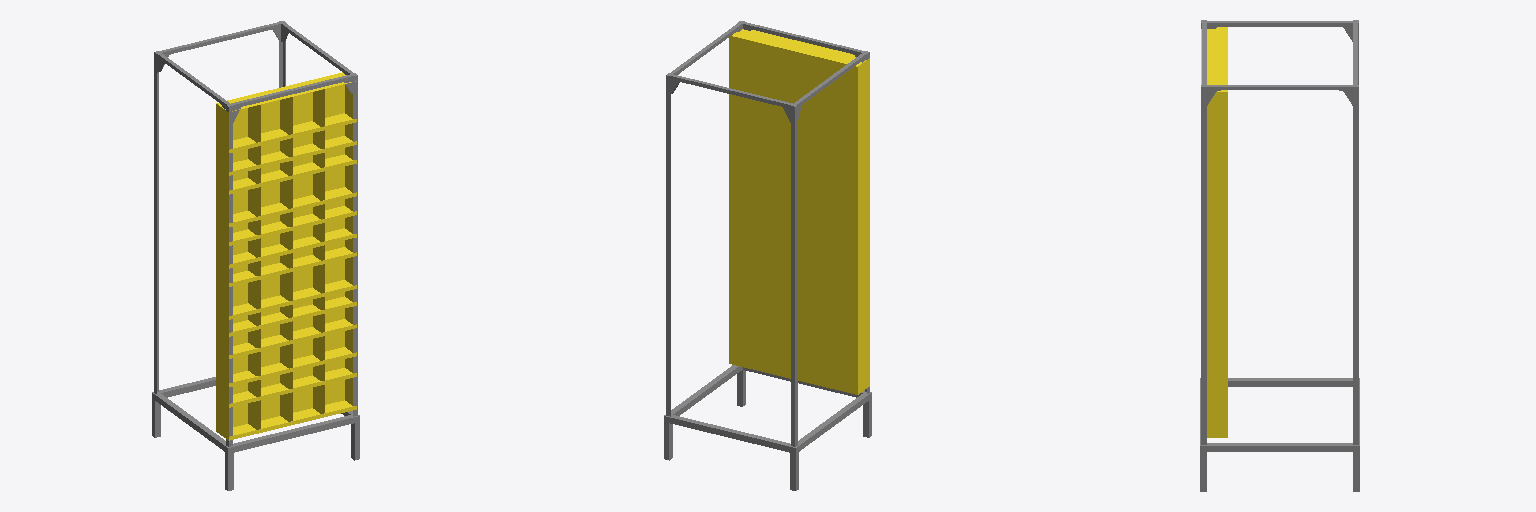
--- What the picture shows (computed from the rendered views, not written in the file) ---
Views: 3 orthographic renders of the robot side by side, from view 1: azimuth 30°, elevation 25°; view 2: azimuth 150°, elevation 25°; view 3: azimuth 270°, elevation 25°.
Model pod1 with 380 links and 379 joints (379 fixed), rooted at pod_base_link, posed all joints at 0.
Links seen in each view (by area): view 1: pod_base_link, pod_bin_3m_back, pod_bin_4m_back, pod_bin_2m_back, pod_bin_1m_left; view 2: pod_base_link, pod_bin_3m_back, pod_bin_4m_back, pod_bin_2m_back, pod_bin_1m_back, pod_bin_1a_back, pod_bin_1f_back, pod_bin_1j_back, pod_bin_4j_back, pod_bin_4a_back, pod_bin_4f_back, pod_bin_3f_back (+28 smaller); view 3: pod_base_link, pod_bin_4m_right, pod_bin_4a_right, pod_bin_4j_right, pod_bin_4f_right, pod_bin_4c_right.
Boxes of the visible links, x1,y1,x2,y2 form: pod_base_link: (152, 21, 359, 490); pod_bin_3m_back: (293, 80, 312, 125); pod_bin_4m_back: (325, 72, 344, 117); pod_bin_2m_back: (260, 90, 279, 132); pod_bin_1m_left: (216, 103, 228, 153); pod_base_link: (664, 21, 871, 490); pod_bin_3m_back: (761, 43, 792, 91); pod_bin_4m_back: (729, 36, 760, 83); pod_bin_2m_back: (793, 51, 824, 99); pod_bin_1m_back: (825, 59, 857, 107); pod_bin_1a_back: (825, 354, 857, 394); pod_bin_1f_back: (825, 234, 857, 273); pod_bin_1j_back: (825, 141, 857, 181); pod_bin_4j_back: (729, 118, 760, 157); pod_bin_4a_back: (729, 331, 760, 370); pod_bin_4f_back: (729, 210, 760, 250); pod_bin_3f_back: (761, 218, 790, 257); pod_base_link: (1200, 20, 1359, 491); pod_bin_4m_right: (1207, 92, 1226, 135); pod_bin_4a_right: (1207, 403, 1226, 437); pod_bin_4j_right: (1207, 179, 1226, 213); pod_bin_4f_right: (1207, 276, 1226, 310); pod_bin_4c_right: (1207, 352, 1226, 381).
Bounding box of the posed robot: 0.9398 × 0.9398 × 2.61 m (x, y, z).
Meshes: 1 distinct files referenced, 1 mesh visuals loaded (1 binary STL).

The robot description file, URDF, robot "pod1":
<?xml version="1.0" ?>
<!-- =================================================================================== -->
<!-- |    This document was autogenerated by xacro from pod1.xacro                     | -->
<!-- |    EDITING THIS FILE BY HAND IS NOT RECOMMENDED                                 | -->
<!-- =================================================================================== -->
<robot name="pod1">
  <material name="yellow_fabric">
    <color rgba="1 .91 .2 1"/>
  </material>
  <material name="aluminum">
    <color rgba=".6 .6 .6 1"/>
  </material>
  <link name="pod_base_link">
    <inertial>
      <mass value="30.0"/>
      <inertia ixx="0.0002835" ixy="0.0" ixz="0.0" iyy="0.0002835" iyz="0.0" izz="0.000324"/>
    </inertial>
    <visual>
      <origin rpy="0 0 0" xyz=".4699 .4699 1.303"/>
      <geometry>
        <mesh filename="pod_frame.stl"/>
      </geometry>
      <material name="aluminum"/>
    </visual>
    <collision>
      <origin rpy="0 0 0" xyz=".4699 .4699 1.303"/>
      <geometry>
        <mesh filename="pod_frame.stl"/>
      </geometry>
    </collision>
  </link>
  <link name="pod_brace"/>
  <joint name="pod_base_link_pod_brace_joint" type="fixed">
    <origin xyz="0 0 .294"/>
    <parent link="pod_base_link"/>
    <child link="pod_brace"/>
  </joint>
  <link name="pod_fabric_base"/>
  <joint name="pod_brace_pod_fabric_base" type="fixed">
    <origin xyz="0.01 0.01 .045"/>
    <parent link="pod_brace"/>
    <child link="pod_fabric_base"/>
  </joint>
  <link name="pod_shelf_a"/>
  <link name="pod_bin_1a"/>
  <link name="pod_bin_1a_bottom">
    <inertial>
      <mass value="0.01"/>
      <inertia ixx="0.0002835" ixy="0.0" ixz="0.0" iyy="0.0002835" iyz="0.0" izz="0.000324"/>
    </inertial>
    <visual>
      <origin xyz="0.1143 0.07619999999999999 -0.0005"/>
      <geometry>
        <box size="0.2286 0.15239999999999998 0.001"/>
      </geometry>
      <material name="yellow_fabric"/>
    </visual>
    <collision>
      <origin xyz="0.1143 0.07619999999999999 -0.0005"/>
      <geometry>
        <box size="0.2286 0.15239999999999998 0.001"/>
      </geometry>
    </collision>
  </link>
  <link name="pod_bin_1a_left">
    <inertial>
      <mass value="0.01"/>
      <inertia ixx="0.0002835" ixy="0.0" ixz="0.0" iyy="0.0002835" iyz="0.0" izz="0.000324"/>
    </inertial>
    <visual>
      <origin xyz="0.07619999999999999 0.111125 -0.0005"/>
      <geometry>
        <box size="0.15239999999999998 0.22225 0.001"/>
      </geometry>
      <material name="yellow_fabric"/>
    </visual>
    <collision>
      <origin xyz="0.07619999999999999 0.111125 -0.0005"/>
      <geometry>
        <box size="0.15239999999999998 0.22225 0.001"/>
      </geometry>
    </collision>
  </link>
  <link name="pod_bin_1a_right">
    <inertial>
      <mass value="0.01"/>
      <inertia ixx="0.0002835" ixy="0.0" ixz="0.0" iyy="0.0002835" iyz="0.0" izz="0.000324"/>
    </inertial>
    <visual>
      <origin xyz="0.07619999999999999 0.111125 -0.0005"/>
      <geometry>
        <box size="0.15239999999999998 0.22225 0.001"/>
      </geometry>
      <material name="yellow_fabric"/>
    </visual>
    <collision>
      <origin xyz="0.07619999999999999 0.111125 -0.0005"/>
      <geometry>
        <box size="0.15239999999999998 0.22225 0.001"/>
      </geometry>
    </collision>
  </link>
  <link name="pod_bin_1a_top">
    <inertial>
      <mass value="0.01"/>
      <inertia ixx="0.0002835" ixy="0.0" ixz="0.0" iyy="0.0002835" iyz="0.0" izz="0.000324"/>
    </inertial>
    <visual>
      <origin xyz="0.1143 0.07619999999999999 -0.0005"/>
      <geometry>
        <box size="0.2286 0.15239999999999998 0.001"/>
      </geometry>
      <material name="yellow_fabric"/>
    </visual>
    <collision>
      <origin xyz="0.1143 0.07619999999999999 -0.0005"/>
      <geometry>
        <box size="0.2286 0.15239999999999998 0.001"/>
      </geometry>
    </collision>
  </link>
  <link name="pod_bin_1a_back">
    <inertial>
      <mass value="0.01"/>
      <inertia ixx="0.0002835" ixy="0.0" ixz="0.0" iyy="0.0002835" iyz="0.0" izz="0.000324"/>
    </inertial>
    <visual>
      <origin xyz="0.1143 0.111125 -0.0005"/>
      <geometry>
        <box size="0.2286 0.22225 0.001"/>
      </geometry>
      <material name="yellow_fabric"/>
    </visual>
    <collision>
      <origin xyz="0.1143 0.111125 -0.0005"/>
      <geometry>
        <box size="0.2286 0.22225 0.001"/>
      </geometry>
    </collision>
  </link>
  <link name="pod_bin_1a_flap">
    <inertial>
      <mass value="0.01"/>
      <inertia ixx="0.0002835" ixy="0.0" ixz="0.0" iyy="0.0002835" iyz="0.0" izz="0.000324"/>
    </inertial>
    <visual>
      <origin xyz="0.1143 0.0127 -0.0005"/>
      <geometry>
        <box size="0.2286 0.0254 0.001"/>
      </geometry>
      <material name="yellow_fabric"/>
    </visual>
    <collision>
      <origin xyz="0.1143 0.0127 -0.0005"/>
      <geometry>
        <box size="0.2286 0.0254 0.001"/>
      </geometry>
    </collision>
  </link>
  <joint name="pod_bin_1a_pod_bin_1a_bottom" type="fixed">
    <parent link="pod_bin_1a"/>
    <child link="pod_bin_1a_bottom"/>
  </joint>
  <joint name="pod_bin_1a_pod_bin_1a_left" type="fixed">
    <origin rpy="1.5707963267948966 0 1.5707963267948966 " xyz="0 0 0"/>
    <parent link="pod_bin_1a"/>
    <child link="pod_bin_1a_left"/>
  </joint>
  <joint name="pod_bin_1a_pod_bin_1a_right" type="fixed">
    <origin rpy="1.5707963267948966 0 1.5707963267948966 " xyz="0.2286 0 0"/>
    <parent link="pod_bin_1a"/>
    <child link="pod_bin_1a_right"/>
  </joint>
  <joint name="pod_bin_1a_pod_bin_1a_top" type="fixed">
    <origin rpy="0 0 0" xyz="0 0 0.22225"/>
    <parent link="pod_bin_1a"/>
    <child link="pod_bin_1a_top"/>
  </joint>
  <joint name="pod_bin_1a_pod_bin_1a_back" type="fixed">
    <origin rpy="1.5707963267948966 0 0" xyz="0 0.15239999999999998 0"/>
    <parent link="pod_bin_1a"/>
    <child link="pod_bin_1a_back"/>
  </joint>
  <joint name="pod_bin_1a_pod_bin_1a_flap" type="fixed">
    <origin rpy="1.5707963267948966 0 0" xyz="0 0 0"/>
    <parent link="pod_bin_1a"/>
    <child link="pod_bin_1a_flap"/>
  </joint>
  <joint name="pod_shelf_a_pod_bin_1a_joint" type="fixed">
    <origin xyz="0.0 0 0"/>
    <parent link="pod_shelf_a"/>
    <child link="pod_bin_1a"/>
  </joint>
  <link name="pod_bin_2a"/>
  <link name="pod_bin_2a_bottom">
    <inertial>
      <mass value="0.01"/>
      <inertia ixx="0.0002835" ixy="0.0" ixz="0.0" iyy="0.0002835" iyz="0.0" izz="0.000324"/>
    </inertial>
    <visual>
      <origin xyz="0.1143 0.07619999999999999 -0.0005"/>
      <geometry>
        <box size="0.2286 0.15239999999999998 0.001"/>
      </geometry>
      <material name="yellow_fabric"/>
    </visual>
    <collision>
      <origin xyz="0.1143 0.07619999999999999 -0.0005"/>
      <geometry>
        <box size="0.2286 0.15239999999999998 0.001"/>
      </geometry>
    </collision>
  </link>
  <link name="pod_bin_2a_left">
    <inertial>
      <mass value="0.01"/>
      <inertia ixx="0.0002835" ixy="0.0" ixz="0.0" iyy="0.0002835" iyz="0.0" izz="0.000324"/>
    </inertial>
    <visual>
      <origin xyz="0.07619999999999999 0.111125 -0.0005"/>
      <geometry>
        <box size="0.15239999999999998 0.22225 0.001"/>
      </geometry>
      <material name="yellow_fabric"/>
    </visual>
    <collision>
      <origin xyz="0.07619999999999999 0.111125 -0.0005"/>
      <geometry>
        <box size="0.15239999999999998 0.22225 0.001"/>
      </geometry>
    </collision>
  </link>
  <link name="pod_bin_2a_right">
    <inertial>
      <mass value="0.01"/>
      <inertia ixx="0.0002835" ixy="0.0" ixz="0.0" iyy="0.0002835" iyz="0.0" izz="0.000324"/>
    </inertial>
    <visual>
      <origin xyz="0.07619999999999999 0.111125 -0.0005"/>
      <geometry>
        <box size="0.15239999999999998 0.22225 0.001"/>
      </geometry>
      <material name="yellow_fabric"/>
    </visual>
    <collision>
      <origin xyz="0.07619999999999999 0.111125 -0.0005"/>
      <geometry>
        <box size="0.15239999999999998 0.22225 0.001"/>
      </geometry>
    </collision>
  </link>
  <link name="pod_bin_2a_top">
    <inertial>
      <mass value="0.01"/>
      <inertia ixx="0.0002835" ixy="0.0" ixz="0.0" iyy="0.0002835" iyz="0.0" izz="0.000324"/>
    </inertial>
    <visual>
      <origin xyz="0.1143 0.07619999999999999 -0.0005"/>
      <geometry>
        <box size="0.2286 0.15239999999999998 0.001"/>
      </geometry>
      <material name="yellow_fabric"/>
    </visual>
    <collision>
      <origin xyz="0.1143 0.07619999999999999 -0.0005"/>
      <geometry>
        <box size="0.2286 0.15239999999999998 0.001"/>
      </geometry>
    </collision>
  </link>
  <link name="pod_bin_2a_back">
    <inertial>
      <mass value="0.01"/>
      <inertia ixx="0.0002835" ixy="0.0" ixz="0.0" iyy="0.0002835" iyz="0.0" izz="0.000324"/>
    </inertial>
    <visual>
      <origin xyz="0.1143 0.111125 -0.0005"/>
      <geometry>
        <box size="0.2286 0.22225 0.001"/>
      </geometry>
      <material name="yellow_fabric"/>
    </visual>
    <collision>
      <origin xyz="0.1143 0.111125 -0.0005"/>
      <geometry>
        <box size="0.2286 0.22225 0.001"/>
      </geometry>
    </collision>
  </link>
  <link name="pod_bin_2a_flap">
    <inertial>
      <mass value="0.01"/>
      <inertia ixx="0.0002835" ixy="0.0" ixz="0.0" iyy="0.0002835" iyz="0.0" izz="0.000324"/>
    </inertial>
    <visual>
      <origin xyz="0.1143 0.0127 -0.0005"/>
      <geometry>
        <box size="0.2286 0.0254 0.001"/>
      </geometry>
      <material name="yellow_fabric"/>
    </visual>
    <collision>
      <origin xyz="0.1143 0.0127 -0.0005"/>
      <geometry>
        <box size="0.2286 0.0254 0.001"/>
      </geometry>
    </collision>
  </link>
  <joint name="pod_bin_2a_pod_bin_2a_bottom" type="fixed">
    <parent link="pod_bin_2a"/>
    <child link="pod_bin_2a_bottom"/>
  </joint>
  <joint name="pod_bin_2a_pod_bin_2a_left" type="fixed">
    <origin rpy="1.5707963267948966 0 1.5707963267948966 " xyz="0 0 0"/>
    <parent link="pod_bin_2a"/>
    <child link="pod_bin_2a_left"/>
  </joint>
  <joint name="pod_bin_2a_pod_bin_2a_right" type="fixed">
    <origin rpy="1.5707963267948966 0 1.5707963267948966 " xyz="0.2286 0 0"/>
    <parent link="pod_bin_2a"/>
    <child link="pod_bin_2a_right"/>
  </joint>
  <joint name="pod_bin_2a_pod_bin_2a_top" type="fixed">
    <origin rpy="0 0 0" xyz="0 0 0.22225"/>
    <parent link="pod_bin_2a"/>
    <child link="pod_bin_2a_top"/>
  </joint>
  <joint name="pod_bin_2a_pod_bin_2a_back" type="fixed">
    <origin rpy="1.5707963267948966 0 0" xyz="0 0.15239999999999998 0"/>
    <parent link="pod_bin_2a"/>
    <child link="pod_bin_2a_back"/>
  </joint>
  <joint name="pod_bin_2a_pod_bin_2a_flap" type="fixed">
    <origin rpy="1.5707963267948966 0 0" xyz="0 0 0"/>
    <parent link="pod_bin_2a"/>
    <child link="pod_bin_2a_flap"/>
  </joint>
  <joint name="pod_shelf_a_pod_bin_2a_joint" type="fixed">
    <origin xyz="0.2286 0 0"/>
    <parent link="pod_shelf_a"/>
    <child link="pod_bin_2a"/>
  </joint>
  <link name="pod_bin_3a"/>
  <link name="pod_bin_3a_bottom">
    <inertial>
      <mass value="0.01"/>
      <inertia ixx="0.0002835" ixy="0.0" ixz="0.0" iyy="0.0002835" iyz="0.0" izz="0.000324"/>
    </inertial>
    <visual>
      <origin xyz="0.1143 0.07619999999999999 -0.0005"/>
      <geometry>
        <box size="0.2286 0.15239999999999998 0.001"/>
      </geometry>
      <material name="yellow_fabric"/>
    </visual>
    <collision>
      <origin xyz="0.1143 0.07619999999999999 -0.0005"/>
      <geometry>
        <box size="0.2286 0.15239999999999998 0.001"/>
      </geometry>
    </collision>
  </link>
  <link name="pod_bin_3a_left">
    <inertial>
      <mass value="0.01"/>
      <inertia ixx="0.0002835" ixy="0.0" ixz="0.0" iyy="0.0002835" iyz="0.0" izz="0.000324"/>
    </inertial>
    <visual>
      <origin xyz="0.07619999999999999 0.111125 -0.0005"/>
      <geometry>
        <box size="0.15239999999999998 0.22225 0.001"/>
      </geometry>
      <material name="yellow_fabric"/>
    </visual>
    <collision>
      <origin xyz="0.07619999999999999 0.111125 -0.0005"/>
      <geometry>
        <box size="0.15239999999999998 0.22225 0.001"/>
      </geometry>
    </collision>
  </link>
  <link name="pod_bin_3a_right">
    <inertial>
      <mass value="0.01"/>
      <inertia ixx="0.0002835" ixy="0.0" ixz="0.0" iyy="0.0002835" iyz="0.0" izz="0.000324"/>
    </inertial>
    <visual>
      <origin xyz="0.07619999999999999 0.111125 -0.0005"/>
      <geometry>
        <box size="0.15239999999999998 0.22225 0.001"/>
      </geometry>
      <material name="yellow_fabric"/>
    </visual>
    <collision>
      <origin xyz="0.07619999999999999 0.111125 -0.0005"/>
      <geometry>
        <box size="0.15239999999999998 0.22225 0.001"/>
      </geometry>
    </collision>
  </link>
  <link name="pod_bin_3a_top">
    <inertial>
      <mass value="0.01"/>
      <inertia ixx="0.0002835" ixy="0.0" ixz="0.0" iyy="0.0002835" iyz="0.0" izz="0.000324"/>
    </inertial>
    <visual>
      <origin xyz="0.1143 0.07619999999999999 -0.0005"/>
      <geometry>
        <box size="0.2286 0.15239999999999998 0.001"/>
      </geometry>
      <material name="yellow_fabric"/>
    </visual>
    <collision>
      <origin xyz="0.1143 0.07619999999999999 -0.0005"/>
      <geometry>
        <box size="0.2286 0.15239999999999998 0.001"/>
      </geometry>
    </collision>
  </link>
  <link name="pod_bin_3a_back">
    <inertial>
      <mass value="0.01"/>
      <inertia ixx="0.0002835" ixy="0.0" ixz="0.0" iyy="0.0002835" iyz="0.0" izz="0.000324"/>
    </inertial>
    <visual>
      <origin xyz="0.1143 0.111125 -0.0005"/>
      <geometry>
        <box size="0.2286 0.22225 0.001"/>
      </geometry>
      <material name="yellow_fabric"/>
    </visual>
    <collision>
      <origin xyz="0.1143 0.111125 -0.0005"/>
      <geometry>
        <box size="0.2286 0.22225 0.001"/>
      </geometry>
    </collision>
  </link>
  <link name="pod_bin_3a_flap">
    <inertial>
      <mass value="0.01"/>
      <inertia ixx="0.0002835" ixy="0.0" ixz="0.0" iyy="0.0002835" iyz="0.0" izz="0.000324"/>
    </inertial>
    <visual>
      <origin xyz="0.1143 0.0127 -0.0005"/>
      <geometry>
        <box size="0.2286 0.0254 0.001"/>
      </geometry>
      <material name="yellow_fabric"/>
    </visual>
    <collision>
      <origin xyz="0.1143 0.0127 -0.0005"/>
      <geometry>
        <box size="0.2286 0.0254 0.001"/>
      </geometry>
    </collision>
  </link>
  <joint name="pod_bin_3a_pod_bin_3a_bottom" type="fixed">
    <parent link="pod_bin_3a"/>
    <child link="pod_bin_3a_bottom"/>
  </joint>
  <joint name="pod_bin_3a_pod_bin_3a_left" type="fixed">
    <origin rpy="1.5707963267948966 0 1.5707963267948966 " xyz="0 0 0"/>
    <parent link="pod_bin_3a"/>
    <child link="pod_bin_3a_left"/>
  </joint>
  <joint name="pod_bin_3a_pod_bin_3a_right" type="fixed">
    <origin rpy="1.5707963267948966 0 1.5707963267948966 " xyz="0.2286 0 0"/>
    <parent link="pod_bin_3a"/>
    <child link="pod_bin_3a_right"/>
  </joint>
  <joint name="pod_bin_3a_pod_bin_3a_top" type="fixed">
    <origin rpy="0 0 0" xyz="0 0 0.22225"/>
    <parent link="pod_bin_3a"/>
    <child link="pod_bin_3a_top"/>
  </joint>
  <joint name="pod_bin_3a_pod_bin_3a_back" type="fixed">
    <origin rpy="1.5707963267948966 0 0" xyz="0 0.15239999999999998 0"/>
    <parent link="pod_bin_3a"/>
    <child link="pod_bin_3a_back"/>
  </joint>
  <joint name="pod_bin_3a_pod_bin_3a_flap" type="fixed">
    <origin rpy="1.5707963267948966 0 0" xyz="0 0 0"/>
    <parent link="pod_bin_3a"/>
    <child link="pod_bin_3a_flap"/>
  </joint>
  <joint name="pod_shelf_a_pod_bin_3a_joint" type="fixed">
    <origin xyz="0.4572 0 0"/>
    <parent link="pod_shelf_a"/>
    <child link="pod_bin_3a"/>
  </joint>
  <link name="pod_bin_4a"/>
  <link name="pod_bin_4a_bottom">
    <inertial>
      <mass value="0.01"/>
      <inertia ixx="0.0002835" ixy="0.0" ixz="0.0" iyy="0.0002835" iyz="0.0" izz="0.000324"/>
    </inertial>
    <visual>
      <origin xyz="0.1143 0.07619999999999999 -0.0005"/>
      <geometry>
        <box size="0.2286 0.15239999999999998 0.001"/>
      </geometry>
      <material name="yellow_fabric"/>
    </visual>
    <collision>
      <origin xyz="0.1143 0.07619999999999999 -0.0005"/>
      <geometry>
        <box size="0.2286 0.15239999999999998 0.001"/>
      </geometry>
    </collision>
  </link>
  <link name="pod_bin_4a_left">
    <inertial>
      <mass value="0.01"/>
      <inertia ixx="0.0002835" ixy="0.0" ixz="0.0" iyy="0.0002835" iyz="0.0" izz="0.000324"/>
    </inertial>
    <visual>
      <origin xyz="0.07619999999999999 0.111125 -0.0005"/>
      <geometry>
        <box size="0.15239999999999998 0.22225 0.001"/>
      </geometry>
      <material name="yellow_fabric"/>
    </visual>
    <collision>
      <origin xyz="0.07619999999999999 0.111125 -0.0005"/>
      <geometry>
        <box size="0.15239999999999998 0.22225 0.001"/>
      </geometry>
    </collision>
  </link>
  <link name="pod_bin_4a_right">
    <inertial>
      <mass value="0.01"/>
      <inertia ixx="0.0002835" ixy="0.0" ixz="0.0" iyy="0.0002835" iyz="0.0" izz="0.000324"/>
    </inertial>
    <visual>
      <origin xyz="0.07619999999999999 0.111125 -0.0005"/>
      <geometry>
        <box size="0.15239999999999998 0.22225 0.001"/>
      </geometry>
      <material name="yellow_fabric"/>
    </visual>
    <collision>
      <origin xyz="0.07619999999999999 0.111125 -0.0005"/>
      <geometry>
        <box size="0.15239999999999998 0.22225 0.001"/>
      </geometry>
    </collision>
  </link>
  <link name="pod_bin_4a_top">
    <inertial>
      <mass value="0.01"/>
      <inertia ixx="0.0002835" ixy="0.0" ixz="0.0" iyy="0.0002835" iyz="0.0" izz="0.000324"/>
    </inertial>
    <visual>
      <origin xyz="0.1143 0.07619999999999999 -0.0005"/>
      <geometry>
        <box size="0.2286 0.15239999999999998 0.001"/>
      </geometry>
      <material name="yellow_fabric"/>
    </visual>
    <collision>
      <origin xyz="0.1143 0.07619999999999999 -0.0005"/>
      <geometry>
        <box size="0.2286 0.15239999999999998 0.001"/>
      </geometry>
    </collision>
  </link>
  <link name="pod_bin_4a_back">
    <inertial>
      <mass value="0.01"/>
      <inertia ixx="0.0002835" ixy="0.0" ixz="0.0" iyy="0.0002835" iyz="0.0" izz="0.000324"/>
    </inertial>
    <visual>
      <origin xyz="0.1143 0.111125 -0.0005"/>
      <geometry>
        <box size="0.2286 0.22225 0.001"/>
      </geometry>
      <material name="yellow_fabric"/>
    </visual>
    <collision>
      <origin xyz="0.1143 0.111125 -0.0005"/>
      <geometry>
        <box size="0.2286 0.22225 0.001"/>
      </geometry>
    </collision>
  </link>
  <link name="pod_bin_4a_flap">
    <inertial>
      <mass value="0.01"/>
      <inertia ixx="0.0002835" ixy="0.0" ixz="0.0" iyy="0.0002835" iyz="0.0" izz="0.000324"/>
    </inertial>
    <visual>
      <origin xyz="0.1143 0.0127 -0.0005"/>
      <geometry>
        <box size="0.2286 0.0254 0.001"/>
      </geometry>
      <material name="yellow_fabric"/>
    </visual>
    <collision>
      <origin xyz="0.1143 0.0127 -0.0005"/>
      <geometry>
        <box size="0.2286 0.0254 0.001"/>
      </geometry>
    </collision>
  </link>
  <joint name="pod_bin_4a_pod_bin_4a_bottom" type="fixed">
    <parent link="pod_bin_4a"/>
    <child link="pod_bin_4a_bottom"/>
  </joint>
  <joint name="pod_bin_4a_pod_bin_4a_left" type="fixed">
    <origin rpy="1.5707963267948966 0 1.5707963267948966 " xyz="0 0 0"/>
    <parent link="pod_bin_4a"/>
    <child link="pod_bin_4a_left"/>
  </joint>
  <joint name="pod_bin_4a_pod_bin_4a_right" type="fixed">
    <origin rpy="1.5707963267948966 0 1.5707963267948966 " xyz="0.2286 0 0"/>
    <parent link="pod_bin_4a"/>
    <child link="pod_bin_4a_right"/>
  </joint>
  <joint name="pod_bin_4a_pod_bin_4a_top" type="fixed">
    <origin rpy="0 0 0" xyz="0 0 0.22225"/>
    <parent link="pod_bin_4a"/>
    <child link="pod_bin_4a_top"/>
  </joint>
  <joint name="pod_bin_4a_pod_bin_4a_back" type="fixed">
    <origin rpy="1.5707963267948966 0 0" xyz="0 0.15239999999999998 0"/>
    <parent link="pod_bin_4a"/>
    <child link="pod_bin_4a_back"/>
  </joint>
  <joint name="pod_bin_4a_pod_bin_4a_flap" type="fixed">
    <origin rpy="1.5707963267948966 0 0" xyz="0 0 0"/>
    <parent link="pod_bin_4a"/>
    <child link="pod_bin_4a_flap"/>
  </joint>
  <joint name="pod_shelf_a_pod_bin_4a_joint" type="fixed">
    <origin xyz="0.6858 0 0"/>
    <parent link="pod_shelf_a"/>
    <child link="pod_bin_4a"/>
  </joint>
  <joint name="pod_fabric_base_pod_shelf_a_joint" type="fixed">
    <origin xyz="0 0 0"/>
    <parent link="pod_fabric_base"/>
    <child link="pod_shelf_a"/>
  </joint>
  <link name="pod_shelf_b"/>
  <link name="pod_bin_1b"/>
  <link name="pod_bin_1b_bottom">
    <inertial>
      <mass value="0.01"/>
      <inertia ixx="0.0002835" ixy="0.0" ixz="0.0" iyy="0.0002835" iyz="0.0" izz="0.000324"/>
    </inertial>
    <visual>
      <origin xyz="0.1143 0.07619999999999999 -0.0005"/>
      <geometry>
        <box size="0.2286 0.15239999999999998 0.001"/>
      </geometry>
      <material name="yellow_fabric"/>
    </visual>
    <collision>
      <origin xyz="0.1143 0.07619999999999999 -0.0005"/>
      <geometry>
        <box size="0.2286 0.15239999999999998 0.001"/>
      </geometry>
    </collision>
  </link>
  <link name="pod_bin_1b_left">
    <inertial>
      <mass value="0.01"/>
      <inertia ixx="0.0002835" ixy="0.0" ixz="0.0" iyy="0.0002835" iyz="0.0" izz="0.000324"/>
    </inertial>
    <visual>
      <origin xyz="0.07619999999999999 0.06985 -0.0005"/>
      <geometry>
        <box size="0.15239999999999998 0.1397 0.001"/>
      </geometry>
      <material name="yellow_fabric"/>
    </visual>
    <collision>
      <origin xyz="0.07619999999999999 0.06985 -0.0005"/>
      <geometry>
        <box size="0.15239999999999998 0.1397 0.001"/>
      </geometry>
    </collision>
  </link>
  <link name="pod_bin_1b_right">
    <inertial>
      <mass value="0.01"/>
      <inertia ixx="0.0002835" ixy="0.0" ixz="0.0" iyy="0.0002835" iyz="0.0" izz="0.000324"/>
    </inertial>
    <visual>
      <origin xyz="0.07619999999999999 0.06985 -0.0005"/>
      <geometry>
        <box size="0.15239999999999998 0.1397 0.001"/>
      </geometry>
      <material name="yellow_fabric"/>
    </visual>
    <collision>
      <origin xyz="0.07619999999999999 0.06985 -0.0005"/>
      <geometry>
        <box size="0.15239999999999998 0.1397 0.001"/>
      </geometry>
    </collision>
  </link>
  <link name="pod_bin_1b_top">
    <inertial>
      <mass value="0.01"/>
      <inertia ixx="0.0002835" ixy="0.0" ixz="0.0" iyy="0.0002835" iyz="0.0" izz="0.000324"/>
    </inertial>
    <visual>
      <origin xyz="0.1143 0.07619999999999999 -0.0005"/>
      <geometry>
        <box size="0.2286 0.15239999999999998 0.001"/>
      </geometry>
      <material name="yellow_fabric"/>
    </visual>
    <collision>
      <origin xyz="0.1143 0.07619999999999999 -0.0005"/>
      <geometry>
        <box size="0.2286 0.15239999999999998 0.001"/>
      </geometry>
    </collision>
  </link>
  <link name="pod_bin_1b_back">
    <inertial>
      <mass value="0.01"/>
      <inertia ixx="0.0002835" ixy="0.0" ixz="0.0" iyy="0.0002835" iyz="0.0" izz="0.000324"/>
    </inertial>
    <visual>
      <origin xyz="0.1143 0.06985 -0.0005"/>
      <geometry>
        <box size="0.2286 0.1397 0.001"/>
      </geometry>
      <material name="yellow_fabric"/>
    </visual>
    <collision>
      <origin xyz="0.1143 0.06985 -0.0005"/>
      <geometry>
        <box size="0.2286 0.1397 0.001"/>
      </geometry>
    </collision>
  </link>
  <link name="pod_bin_1b_flap">
    <inertial>
      <mass value="0.01"/>
      <inertia ixx="0.0002835" ixy="0.0" ixz="0.0" iyy="0.0002835" iyz="0.0" izz="0.000324"/>
    </inertial>
    <visual>
      <origin xyz="0.1143 0.0127 -0.0005"/>
      <geometry>
        <box size="0.2286 0.0254 0.001"/>
      </geometry>
      <material name="yellow_fabric"/>
    </visual>
    <collision>
      <origin xyz="0.1143 0.0127 -0.0005"/>
      <geometry>
        <box size="0.2286 0.0254 0.001"/>
      </geometry>
    </collision>
  </link>
  <joint name="pod_bin_1b_pod_bin_1b_bottom" type="fixed">
    <parent link="pod_bin_1b"/>
    <child link="pod_bin_1b_bottom"/>
  </joint>
  <joint name="pod_bin_1b_pod_bin_1b_left" type="fixed">
    <origin rpy="1.5707963267948966 0 1.5707963267948966 " xyz="0 0 0"/>
    <parent link="pod_bin_1b"/>
    <child link="pod_bin_1b_left"/>
  </joint>
  <joint name="pod_bin_1b_pod_bin_1b_right" type="fixed">
    <origin rpy="1.5707963267948966 0 1.5707963267948966 " xyz="0.2286 0 0"/>
    <parent link="pod_bin_1b"/>
    <child link="pod_bin_1b_right"/>
  </joint>
  <joint name="pod_bin_1b_pod_bin_1b_top" type="fixed">
    <origin rpy="0 0 0" xyz="0 0 0.1397"/>
    <parent link="pod_bin_1b"/>
    <child link="pod_bin_1b_top"/>
  </joint>
  <joint name="pod_bin_1b_pod_bin_1b_back" type="fixed">
    <origin rpy="1.5707963267948966 0 0" xyz="0 0.15239999999999998 0"/>
    <parent link="pod_bin_1b"/>
    <child link="pod_bin_1b_back"/>
  </joint>
  <joint name="pod_bin_1b_pod_bin_1b_flap" type="fixed">
    <origin rpy="1.5707963267948966 0 0" xyz="0 0 0"/>
    <parent link="pod_bin_1b"/>
    <child link="pod_bin_1b_flap"/>
  </joint>
  <joint name="pod_shelf_b_pod_bin_1b_joint" type="fixed">
    <origin xyz="0.0 0 0"/>
    <parent link="pod_shelf_b"/>
    <child link="pod_bin_1b"/>
  </joint>
  <link name="pod_bin_2b"/>
  <link name="pod_bin_2b_bottom">
    <inertial>
      <mass value="0.01"/>
      <inertia ixx="0.0002835" ixy="0.0" ixz="0.0" iyy="0.0002835" iyz="0.0" izz="0.000324"/>
    </inertial>
    <visual>
      <origin xyz="0.1143 0.07619999999999999 -0.0005"/>
      <geometry>
        <box size="0.2286 0.15239999999999998 0.001"/>
      </geometry>
      <material name="yellow_fabric"/>
    </visual>
    <collision>
      <origin xyz="0.1143 0.07619999999999999 -0.0005"/>
      <geometry>
        <box size="0.2286 0.15239999999999998 0.001"/>
      </geometry>
    </collision>
  </link>
  <link name="pod_bin_2b_left">
    <inertial>
      <mass value="0.01"/>
      <inertia ixx="0.0002835" ixy="0.0" ixz="0.0" iyy="0.0002835" iyz="0.0" izz="0.000324"/>
    </inertial>
    <visual>
      <origin xyz="0.07619999999999999 0.06985 -0.0005"/>
      <geometry>
        <box size="0.15239999999999998 0.1397 0.001"/>
      </geometry>
      <material name="yellow_fabric"/>
    </visual>
    <collision>
      <origin xyz="0.07619999999999999 0.06985 -0.0005"/>
      <geometry>
        <box size="0.15239999999999998 0.1397 0.001"/>
      </geometry>
    </collision>
  </link>
  <link name="pod_bin_2b_right">
    <inertial>
      <mass value="0.01"/>
      <inertia ixx="0.0002835" ixy="0.0" ixz="0.0" iyy="0.0002835" iyz="0.0" izz="0.000324"/>
    </inertial>
    <visual>
      <origin xyz="0.07619999999999999 0.06985 -0.0005"/>
      <geometry>
        <box size="0.15239999999999998 0.1397 0.001"/>
      </geometry>
      <material name="yellow_fabric"/>
    </visual>
    <collision>
      <origin xyz="0.07619999999999999 0.06985 -0.0005"/>
      <geometry>
        <box size="0.15239999999999998 0.1397 0.001"/>
      </geometry>
    </collision>
  </link>
  <link name="pod_bin_2b_top">
    <inertial>
      <mass value="0.01"/>
      <inertia ixx="0.0002835" ixy="0.0" ixz="0.0" iyy="0.0002835" iyz="0.0" izz="0.000324"/>
    </inertial>
    <visual>
      <origin xyz="0.1143 0.07619999999999999 -0.0005"/>
      <geometry>
        <box size="0.2286 0.15239999999999998 0.001"/>
      </geometry>
      <material name="yellow_fabric"/>
    </visual>
    <collision>
      <origin xyz="0.1143 0.07619999999999999 -0.0005"/>
      <geometry>
        <box size="0.2286 0.15239999999999998 0.001"/>
      </geometry>
    </collision>
  </link>
  <link name="pod_bin_2b_back">
    <inertial>
      <mass value="0.01"/>
      <inertia ixx="0.0002835" ixy="0.0" ixz="0.0" iyy="0.0002835" iyz="0.0" izz="0.000324"/>
    </inertial>
    <visual>
      <origin xyz="0.1143 0.06985 -0.0005"/>
      <geometry>
        <box size="0.2286 0.1397 0.001"/>
      </geometry>
      <material name="yellow_fabric"/>
    </visual>
    <collision>
      <origin xyz="0.1143 0.06985 -0.0005"/>
      <geometry>
        <box size="0.2286 0.1397 0.001"/>
      </geometry>
    </collision>
  </link>
  <link name="pod_bin_2b_flap">
    <inertial>
      <mass value="0.01"/>
      <inertia ixx="0.0002835" ixy="0.0" ixz="0.0" iyy="0.0002835" iyz="0.0" izz="0.000324"/>
    </inertial>
    <visual>
      <origin xyz="0.1143 0.0127 -0.0005"/>
      <geometry>
        <box size="0.2286 0.0254 0.001"/>
      </geometry>
      <material name="yellow_fabric"/>
    </visual>
    <collision>
      <origin xyz="0.1143 0.0127 -0.0005"/>
      <geometry>
        <box size="0.2286 0.0254 0.001"/>
      </geometry>
    </collision>
  </link>
  <joint name="pod_bin_2b_pod_bin_2b_bottom" type="fixed">
    <parent link="pod_bin_2b"/>
    <child link="pod_bin_2b_bottom"/>
  </joint>
  <joint name="pod_bin_2b_pod_bin_2b_left" type="fixed">
    <origin rpy="1.5707963267948966 0 1.5707963267948966 " xyz="0 0 0"/>
    <parent link="pod_bin_2b"/>
    <child link="pod_bin_2b_left"/>
  </joint>
  <joint name="pod_bin_2b_pod_bin_2b_right" type="fixed">
    <origin rpy="1.5707963267948966 0 1.5707963267948966 " xyz="0.2286 0 0"/>
    <parent link="pod_bin_2b"/>
    <child link="pod_bin_2b_right"/>
  </joint>
  <joint name="pod_bin_2b_pod_bin_2b_top" type="fixed">
    <origin rpy="0 0 0" xyz="0 0 0.1397"/>
    <parent link="pod_bin_2b"/>
    <child link="pod_bin_2b_top"/>
  </joint>
  <joint name="pod_bin_2b_pod_bin_2b_back" type="fixed">
    <origin rpy="1.5707963267948966 0 0" xyz="0 0.15239999999999998 0"/>
    <parent link="pod_bin_2b"/>
    <child link="pod_bin_2b_back"/>
  </joint>
  <joint name="pod_bin_2b_pod_bin_2b_flap" type="fixed">
    <origin rpy="1.5707963267948966 0 0" xyz="0 0 0"/>
    <parent link="pod_bin_2b"/>
    <child link="pod_bin_2b_flap"/>
  </joint>
  <joint name="pod_shelf_b_pod_bin_2b_joint" type="fixed">
    <origin xyz="0.2286 0 0"/>
    <parent link="pod_shelf_b"/>
    <child link="pod_bin_2b"/>
  </joint>
  <link name="pod_bin_3b"/>
  <link name="pod_bin_3b_bottom">
    <inertial>
      <mass value="0.01"/>
      <inertia ixx="0.0002835" ixy="0.0" ixz="0.0" iyy="0.0002835" iyz="0.0" izz="0.000324"/>
    </inertial>
    <visual>
      <origin xyz="0.1143 0.07619999999999999 -0.0005"/>
      <geometry>
        <box size="0.2286 0.15239999999999998 0.001"/>
      </geometry>
      <material name="yellow_fabric"/>
    </visual>
    <collision>
      <origin xyz="0.1143 0.07619999999999999 -0.0005"/>
      <geometry>
        <box size="0.2286 0.15239999999999998 0.001"/>
      </geometry>
    </collision>
  </link>
  <link name="pod_bin_3b_left">
    <inertial>
      <mass value="0.01"/>
      <inertia ixx="0.0002835" ixy="0.0" ixz="0.0" iyy="0.0002835" iyz="0.0" izz="0.000324"/>
    </inertial>
    <visual>
      <origin xyz="0.07619999999999999 0.06985 -0.0005"/>
      <geometry>
        <box size="0.15239999999999998 0.1397 0.001"/>
      </geometry>
      <material name="yellow_fabric"/>
    </visual>
    <collision>
      <origin xyz="0.07619999999999999 0.06985 -0.0005"/>
      <geometry>
        <box size="0.15239999999999998 0.1397 0.001"/>
      </geometry>
    </collision>
  </link>
  <link name="pod_bin_3b_right">
    <inertial>
      <mass value="0.01"/>
      <inertia ixx="0.0002835" ixy="0.0" ixz="0.0" iyy="0.0002835" iyz="0.0" izz="0.000324"/>
    </inertial>
    <visual>
      <origin xyz="0.07619999999999999 0.06985 -0.0005"/>
      <geometry>
        <box size="0.15239999999999998 0.1397 0.001"/>
      </geometry>
      <material name="yellow_fabric"/>
    </visual>
    <collision>
      <origin xyz="0.07619999999999999 0.06985 -0.0005"/>
      <geometry>
        <box size="0.15239999999999998 0.1397 0.001"/>
      </geometry>
    </collision>
  </link>
  <link name="pod_bin_3b_top">
    <inertial>
      <mass value="0.01"/>
      <inertia ixx="0.0002835" ixy="0.0" ixz="0.0" iyy="0.0002835" iyz="0.0" izz="0.000324"/>
    </inertial>
    <visual>
      <origin xyz="0.1143 0.07619999999999999 -0.0005"/>
      <geometry>
        <box size="0.2286 0.15239999999999998 0.001"/>
      </geometry>
      <material name="yellow_fabric"/>
    </visual>
    <collision>
      <origin xyz="0.1143 0.07619999999999999 -0.0005"/>
      <geometry>
        <box size="0.2286 0.15239999999999998 0.001"/>
      </geometry>
    </collision>
  </link>
  <link name="pod_bin_3b_back">
    <inertial>
      <mass value="0.01"/>
      <inertia ixx="0.0002835" ixy="0.0" ixz="0.0" iyy="0.0002835" iyz="0.0" izz="0.000324"/>
    </inertial>
    <visual>
      <origin xyz="0.1143 0.06985 -0.0005"/>
      <geometry>
        <box size="0.2286 0.1397 0.001"/>
      </geometry>
      <material name="yellow_fabric"/>
    </visual>
    <collision>
      <origin xyz="0.1143 0.06985 -0.0005"/>
      <geometry>
        <box size="0.2286 0.1397 0.001"/>
      </geometry>
    </collision>
  </link>
  <link name="pod_bin_3b_flap">
    <inertial>
      <mass value="0.01"/>
      <inertia ixx="0.0002835" ixy="0.0" ixz="0.0" iyy="0.0002835" iyz="0.0" izz="0.000324"/>
    </inertial>
    <visual>
      <origin xyz="0.1143 0.0127 -0.0005"/>
      <geometry>
        <box size="0.2286 0.0254 0.001"/>
      </geometry>
      <material name="yellow_fabric"/>
    </visual>
    <collision>
      <origin xyz="0.1143 0.0127 -0.0005"/>
      <geometry>
        <box size="0.2286 0.0254 0.001"/>
      </geometry>
    </collision>
  </link>
  <joint name="pod_bin_3b_pod_bin_3b_bottom" type="fixed">
    <parent link="pod_bin_3b"/>
    <child link="pod_bin_3b_bottom"/>
  </joint>
  <joint name="pod_bin_3b_pod_bin_3b_left" type="fixed">
    <origin rpy="1.5707963267948966 0 1.5707963267948966 " xyz="0 0 0"/>
    <parent link="pod_bin_3b"/>
    <child link="pod_bin_3b_left"/>
  </joint>
  <joint name="pod_bin_3b_pod_bin_3b_right" type="fixed">
    <origin rpy="1.5707963267948966 0 1.5707963267948966 " xyz="0.2286 0 0"/>
    <parent link="pod_bin_3b"/>
    <child link="pod_bin_3b_right"/>
  </joint>
  <joint name="pod_bin_3b_pod_bin_3b_top" type="fixed">
    <origin rpy="0 0 0" xyz="0 0 0.1397"/>
    <parent link="pod_bin_3b"/>
    <child link="pod_bin_3b_top"/>
  </joint>
  <joint name="pod_bin_3b_pod_bin_3b_back" type="fixed">
    <origin rpy="1.5707963267948966 0 0" xyz="0 0.15239999999999998 0"/>
    <parent link="pod_bin_3b"/>
    <child link="pod_bin_3b_back"/>
  </joint>
  <joint name="pod_bin_3b_pod_bin_3b_flap" type="fixed">
    <origin rpy="1.5707963267948966 0 0" xyz="0 0 0"/>
    <parent link="pod_bin_3b"/>
    <child link="pod_bin_3b_flap"/>
  </joint>
  <joint name="pod_shelf_b_pod_bin_3b_joint" type="fixed">
    <origin xyz="0.4572 0 0"/>
    <parent link="pod_shelf_b"/>
    <child link="pod_bin_3b"/>
  </joint>
  <link name="pod_bin_4b"/>
  <link name="pod_bin_4b_bottom">
    <inertial>
      <mass value="0.01"/>
      <inertia ixx="0.0002835" ixy="0.0" ixz="0.0" iyy="0.0002835" iyz="0.0" izz="0.000324"/>
    </inertial>
    <visual>
      <origin xyz="0.1143 0.07619999999999999 -0.0005"/>
      <geometry>
        <box size="0.2286 0.15239999999999998 0.001"/>
      </geometry>
      <material name="yellow_fabric"/>
    </visual>
    <collision>
      <origin xyz="0.1143 0.07619999999999999 -0.0005"/>
      <geometry>
        <box size="0.2286 0.15239999999999998 0.001"/>
      </geometry>
    </collision>
  </link>
  <link name="pod_bin_4b_left">
    <inertial>
      <mass value="0.01"/>
      <inertia ixx="0.0002835" ixy="0.0" ixz="0.0" iyy="0.0002835" iyz="0.0" izz="0.000324"/>
    </inertial>
    <visual>
      <origin xyz="0.07619999999999999 0.06985 -0.0005"/>
      <geometry>
        <box size="0.15239999999999998 0.1397 0.001"/>
      </geometry>
      <material name="yellow_fabric"/>
    </visual>
    <collision>
      <origin xyz="0.07619999999999999 0.06985 -0.0005"/>
      <geometry>
        <box size="0.15239999999999998 0.1397 0.001"/>
      </geometry>
    </collision>
  </link>
  <link name="pod_bin_4b_right">
    <inertial>
      <mass value="0.01"/>
      <inertia ixx="0.0002835" ixy="0.0" ixz="0.0" iyy="0.0002835" iyz="0.0" izz="0.000324"/>
    </inertial>
    <visual>
      <origin xyz="0.07619999999999999 0.06985 -0.0005"/>
      <geometry>
        <box size="0.15239999999999998 0.1397 0.001"/>
      </geometry>
      <material name="yellow_fabric"/>
    </visual>
    <collision>
      <origin xyz="0.07619999999999999 0.06985 -0.0005"/>
      <geometry>
        <box size="0.15239999999999998 0.1397 0.001"/>
      </geometry>
    </collision>
  </link>
  <link name="pod_bin_4b_top">
    <inertial>
      <mass value="0.01"/>
      <inertia ixx="0.0002835" ixy="0.0" ixz="0.0" iyy="0.0002835" iyz="0.0" izz="0.000324"/>
    </inertial>
    <visual>
      <origin xyz="0.1143 0.07619999999999999 -0.0005"/>
      <geometry>
        <box size="0.2286 0.15239999999999998 0.001"/>
      </geometry>
      <material name="yellow_fabric"/>
    </visual>
    <collision>
      <origin xyz="0.1143 0.07619999999999999 -0.0005"/>
      <geometry>
        <box size="0.2286 0.15239999999999998 0.001"/>
      </geometry>
    </collision>
  </link>
  <link name="pod_bin_4b_back">
    <inertial>
      <mass value="0.01"/>
      <inertia ixx="0.0002835" ixy="0.0" ixz="0.0" iyy="0.0002835" iyz="0.0" izz="0.000324"/>
    </inertial>
    <visual>
      <origin xyz="0.1143 0.06985 -0.0005"/>
      <geometry>
        <box size="0.2286 0.1397 0.001"/>
      </geometry>
      <material name="yellow_fabric"/>
    </visual>
    <collision>
      <origin xyz="0.1143 0.06985 -0.0005"/>
      <geometry>
        <box size="0.2286 0.1397 0.001"/>
      </geometry>
    </collision>
  </link>
  <link name="pod_bin_4b_flap">
    <inertial>
      <mass value="0.01"/>
      <inertia ixx="0.0002835" ixy="0.0" ixz="0.0" iyy="0.0002835" iyz="0.0" izz="0.000324"/>
    </inertial>
    <visual>
      <origin xyz="0.1143 0.0127 -0.0005"/>
      <geometry>
        <box size="0.2286 0.0254 0.001"/>
      </geometry>
      <material name="yellow_fabric"/>
    </visual>
    <collision>
      <origin xyz="0.1143 0.0127 -0.0005"/>
      <geometry>
        <box size="0.2286 0.0254 0.001"/>
      </geometry>
    </collision>
  </link>
  <joint name="pod_bin_4b_pod_bin_4b_bottom" type="fixed">
    <parent link="pod_bin_4b"/>
    <child link="pod_bin_4b_bottom"/>
  </joint>
  <joint name="pod_bin_4b_pod_bin_4b_left" type="fixed">
    <origin rpy="1.5707963267948966 0 1.5707963267948966 " xyz="0 0 0"/>
    <parent link="pod_bin_4b"/>
    <child link="pod_bin_4b_left"/>
  </joint>
  <joint name="pod_bin_4b_pod_bin_4b_right" type="fixed">
    <origin rpy="1.5707963267948966 0 1.5707963267948966 " xyz="0.2286 0 0"/>
    <parent link="pod_bin_4b"/>
    <child link="pod_bin_4b_right"/>
  </joint>
  <joint name="pod_bin_4b_pod_bin_4b_top" type="fixed">
    <origin rpy="0 0 0" xyz="0 0 0.1397"/>
    <parent link="pod_bin_4b"/>
    <child link="pod_bin_4b_top"/>
  </joint>
  <joint name="pod_bin_4b_pod_bin_4b_back" type="fixed">
    <origin rpy="1.5707963267948966 0 0" xyz="0 0.15239999999999998 0"/>
    <parent link="pod_bin_4b"/>
    <child link="pod_bin_4b_back"/>
  </joint>
  <joint name="pod_bin_4b_pod_bin_4b_flap" type="fixed">
    <origin rpy="1.5707963267948966 0 0" xyz="0 0 0"/>
    <parent link="pod_bin_4b"/>
    <child link="pod_bin_4b_flap"/>
  </joint>
  <joint name="pod_shelf_b_pod_bin_4b_joint" type="fixed">
    <origin xyz="0.6858 0 0"/>
    <parent link="pod_shelf_b"/>
    <child link="pod_bin_4b"/>
  </joint>
  <joint name="pod_fabric_base_pod_shelf_b_joint" type="fixed">
    <origin xyz="0 0 0.22225"/>
    <parent link="pod_fabric_base"/>
    <child link="pod_shelf_b"/>
  </joint>
  <link name="pod_shelf_c"/>
  <link name="pod_bin_1c"/>
  <link name="pod_bin_1c_bottom">
    <inertial>
      <mass value="0.01"/>
      <inertia ixx="0.0002835" ixy="0.0" ixz="0.0" iyy="0.0002835" iyz="0.0" izz="0.000324"/>
    </inertial>
    <visual>
      <origin xyz="0.1143 0.07619999999999999 -0.0005"/>
      <geometry>
        <box size="0.2286 0.15239999999999998 0.001"/>
      </geometry>
      <material name="yellow_fabric"/>
    </visual>
    <collision>
      <origin xyz="0.1143 0.07619999999999999 -0.0005"/>
      <geometry>
        <box size="0.2286 0.15239999999999998 0.001"/>
      </geometry>
    </collision>
  </link>
  <link name="pod_bin_1c_left">
    <inertial>
      <mass value="0.01"/>
      <inertia ixx="0.0002835" ixy="0.0" ixz="0.0" iyy="0.0002835" iyz="0.0" izz="0.000324"/>
    </inertial>
    <visual>
      <origin xyz="0.07619999999999999 0.09525 -0.0005"/>
      <geometry>
        <box size="0.15239999999999998 0.1905 0.001"/>
      </geometry>
      <material name="yellow_fabric"/>
    </visual>
    <collision>
      <origin xyz="0.07619999999999999 0.09525 -0.0005"/>
      <geometry>
        <box size="0.15239999999999998 0.1905 0.001"/>
      </geometry>
    </collision>
  </link>
  <link name="pod_bin_1c_right">
    <inertial>
      <mass value="0.01"/>
      <inertia ixx="0.0002835" ixy="0.0" ixz="0.0" iyy="0.0002835" iyz="0.0" izz="0.000324"/>
    </inertial>
    <visual>
      <origin xyz="0.07619999999999999 0.09525 -0.0005"/>
      <geometry>
        <box size="0.15239999999999998 0.1905 0.001"/>
      </geometry>
      <material name="yellow_fabric"/>
    </visual>
    <collision>
      <origin xyz="0.07619999999999999 0.09525 -0.0005"/>
      <geometry>
        <box size="0.15239999999999998 0.1905 0.001"/>
      </geometry>
    </collision>
  </link>
  <link name="pod_bin_1c_top">
    <inertial>
      <mass value="0.01"/>
      <inertia ixx="0.0002835" ixy="0.0" ixz="0.0" iyy="0.0002835" iyz="0.0" izz="0.000324"/>
    </inertial>
    <visual>
      <origin xyz="0.1143 0.07619999999999999 -0.0005"/>
      <geometry>
        <box size="0.2286 0.15239999999999998 0.001"/>
      </geometry>
      <material name="yellow_fabric"/>
    </visual>
    <collision>
      <origin xyz="0.1143 0.07619999999999999 -0.0005"/>
      <geometry>
        <box size="0.2286 0.15239999999999998 0.001"/>
      </geometry>
    </collision>
  </link>
  <link name="pod_bin_1c_back">
    <inertial>
      <mass value="0.01"/>
      <inertia ixx="0.0002835" ixy="0.0" ixz="0.0" iyy="0.0002835" iyz="0.0" izz="0.000324"/>
    </inertial>
    <visual>
      <origin xyz="0.1143 0.09525 -0.0005"/>
      <geometry>
        <box size="0.2286 0.1905 0.001"/>
      </geometry>
      <material name="yellow_fabric"/>
    </visual>
    <collision>
      <origin xyz="0.1143 0.09525 -0.0005"/>
      <geometry>
        <box size="0.2286 0.1905 0.001"/>
      </geometry>
    </collision>
  </link>
  <link name="pod_bin_1c_flap">
    <inertial>
      <mass value="0.01"/>
      <inertia ixx="0.0002835" ixy="0.0" ixz="0.0" iyy="0.0002835" iyz="0.0" izz="0.000324"/>
    </inertial>
    <visual>
      <origin xyz="0.1143 0.0127 -0.0005"/>
      <geometry>
        <box size="0.2286 0.0254 0.001"/>
      </geometry>
      <material name="yellow_fabric"/>
    </visual>
    <collision>
      <origin xyz="0.1143 0.0127 -0.0005"/>
      <geometry>
        <box size="0.2286 0.0254 0.001"/>
      </geometry>
    </collision>
  </link>
  <joint name="pod_bin_1c_pod_bin_1c_bottom" type="fixed">
    <parent link="pod_bin_1c"/>
    <child link="pod_bin_1c_bottom"/>
  </joint>
  <joint name="pod_bin_1c_pod_bin_1c_left" type="fixed">
    <origin rpy="1.5707963267948966 0 1.5707963267948966 " xyz="0 0 0"/>
    <parent link="pod_bin_1c"/>
    <child link="pod_bin_1c_left"/>
  </joint>
  <joint name="pod_bin_1c_pod_bin_1c_right" type="fixed">
    <origin rpy="1.5707963267948966 0 1.5707963267948966 " xyz="0.2286 0 0"/>
    <parent link="pod_bin_1c"/>
    <child link="pod_bin_1c_right"/>
  </joint>
  <joint name="pod_bin_1c_pod_bin_1c_top" type="fixed">
    <origin rpy="0 0 0" xyz="0 0 0.1905"/>
    <parent link="pod_bin_1c"/>
    <child link="pod_bin_1c_top"/>
  </joint>
  <joint name="pod_bin_1c_pod_bin_1c_back" type="fixed">
    <origin rpy="1.5707963267948966 0 0" xyz="0 0.15239999999999998 0"/>
    <parent link="pod_bin_1c"/>
    <child link="pod_bin_1c_back"/>
  </joint>
  <joint name="pod_bin_1c_pod_bin_1c_flap" type="fixed">
    <origin rpy="1.5707963267948966 0 0" xyz="0 0 0"/>
    <parent link="pod_bin_1c"/>
    <child link="pod_bin_1c_flap"/>
  </joint>
  <joint name="pod_shelf_c_pod_bin_1c_joint" type="fixed">
    <origin xyz="0.0 0 0"/>
    <parent link="pod_shelf_c"/>
    <child link="pod_bin_1c"/>
  </joint>
  <link name="pod_bin_2c"/>
  <link name="pod_bin_2c_bottom">
    <inertial>
      <mass value="0.01"/>
      <inertia ixx="0.0002835" ixy="0.0" ixz="0.0" iyy="0.0002835" iyz="0.0" izz="0.000324"/>
    </inertial>
    <visual>
      <origin xyz="0.1143 0.07619999999999999 -0.0005"/>
      <geometry>
        <box size="0.2286 0.15239999999999998 0.001"/>
      </geometry>
      <material name="yellow_fabric"/>
    </visual>
    <collision>
      <origin xyz="0.1143 0.07619999999999999 -0.0005"/>
      <geometry>
        <box size="0.2286 0.15239999999999998 0.001"/>
      </geometry>
    </collision>
  </link>
  <link name="pod_bin_2c_left">
    <inertial>
      <mass value="0.01"/>
      <inertia ixx="0.0002835" ixy="0.0" ixz="0.0" iyy="0.0002835" iyz="0.0" izz="0.000324"/>
    </inertial>
    <visual>
      <origin xyz="0.07619999999999999 0.09525 -0.0005"/>
      <geometry>
        <box size="0.15239999999999998 0.1905 0.001"/>
      </geometry>
      <material name="yellow_fabric"/>
    </visual>
    <collision>
      <origin xyz="0.07619999999999999 0.09525 -0.0005"/>
      <geometry>
        <box size="0.15239999999999998 0.1905 0.001"/>
      </geometry>
    </collision>
  </link>
  <link name="pod_bin_2c_right">
    <inertial>
      <mass value="0.01"/>
      <inertia ixx="0.0002835" ixy="0.0" ixz="0.0" iyy="0.0002835" iyz="0.0" izz="0.000324"/>
    </inertial>
    <visual>
      <origin xyz="0.07619999999999999 0.09525 -0.0005"/>
      <geometry>
        <box size="0.15239999999999998 0.1905 0.001"/>
      </geometry>
      <material name="yellow_fabric"/>
    </visual>
    <collision>
      <origin xyz="0.07619999999999999 0.09525 -0.0005"/>
      <geometry>
        <box size="0.15239999999999998 0.1905 0.001"/>
      </geometry>
    </collision>
  </link>
  <link name="pod_bin_2c_top">
    <inertial>
      <mass value="0.01"/>
      <inertia ixx="0.0002835" ixy="0.0" ixz="0.0" iyy="0.0002835" iyz="0.0" izz="0.000324"/>
    </inertial>
    <visual>
      <origin xyz="0.1143 0.07619999999999999 -0.0005"/>
      <geometry>
        <box size="0.2286 0.15239999999999998 0.001"/>
      </geometry>
      <material name="yellow_fabric"/>
    </visual>
    <collision>
      <origin xyz="0.1143 0.07619999999999999 -0.0005"/>
      <geometry>
        <box size="0.2286 0.15239999999999998 0.001"/>
      </geometry>
    </collision>
  </link>
  <link name="pod_bin_2c_back">
    <inertial>
      <mass value="0.01"/>
      <inertia ixx="0.0002835" ixy="0.0" ixz="0.0" iyy="0.0002835" iyz="0.0" izz="0.000324"/>
    </inertial>
    <visual>
      <origin xyz="0.1143 0.09525 -0.0005"/>
      <geometry>
        <box size="0.2286 0.1905 0.001"/>
      </geometry>
      <material name="yellow_fabric"/>
    </visual>
    <collision>
      <origin xyz="0.1143 0.09525 -0.0005"/>
      <geometry>
        <box size="0.2286 0.1905 0.001"/>
      </geometry>
    </collision>
  </link>
  <link name="pod_bin_2c_flap">
    <inertial>
      <mass value="0.01"/>
      <inertia ixx="0.0002835" ixy="0.0" ixz="0.0" iyy="0.0002835" iyz="0.0" izz="0.000324"/>
    </inertial>
    <visual>
      <origin xyz="0.1143 0.0127 -0.0005"/>
      <geometry>
        <box size="0.2286 0.0254 0.001"/>
      </geometry>
      <material name="yellow_fabric"/>
    </visual>
    <collision>
      <origin xyz="0.1143 0.0127 -0.0005"/>
      <geometry>
        <box size="0.2286 0.0254 0.001"/>
      </geometry>
    </collision>
  </link>
  <joint name="pod_bin_2c_pod_bin_2c_bottom" type="fixed">
    <parent link="pod_bin_2c"/>
    <child link="pod_bin_2c_bottom"/>
  </joint>
  <joint name="pod_bin_2c_pod_bin_2c_left" type="fixed">
    <origin rpy="1.5707963267948966 0 1.5707963267948966 " xyz="0 0 0"/>
    <parent link="pod_bin_2c"/>
    <child link="pod_bin_2c_left"/>
  </joint>
  <joint name="pod_bin_2c_pod_bin_2c_right" type="fixed">
    <origin rpy="1.5707963267948966 0 1.5707963267948966 " xyz="0.2286 0 0"/>
    <parent link="pod_bin_2c"/>
    <child link="pod_bin_2c_right"/>
  </joint>
  <joint name="pod_bin_2c_pod_bin_2c_top" type="fixed">
    <origin rpy="0 0 0" xyz="0 0 0.1905"/>
    <parent link="pod_bin_2c"/>
    <child link="pod_bin_2c_top"/>
  </joint>
  <joint name="pod_bin_2c_pod_bin_2c_back" type="fixed">
    <origin rpy="1.5707963267948966 0 0" xyz="0 0.15239999999999998 0"/>
    <parent link="pod_bin_2c"/>
    <child link="pod_bin_2c_back"/>
  </joint>
  <joint name="pod_bin_2c_pod_bin_2c_flap" type="fixed">
    <origin rpy="1.5707963267948966 0 0" xyz="0 0 0"/>
    <parent link="pod_bin_2c"/>
    <child link="pod_bin_2c_flap"/>
  </joint>
  <joint name="pod_shelf_c_pod_bin_2c_joint" type="fixed">
    <origin xyz="0.2286 0 0"/>
    <parent link="pod_shelf_c"/>
    <child link="pod_bin_2c"/>
  </joint>
  <link name="pod_bin_3c"/>
  <link name="pod_bin_3c_bottom">
    <inertial>
      <mass value="0.01"/>
      <inertia ixx="0.0002835" ixy="0.0" ixz="0.0" iyy="0.0002835" iyz="0.0" izz="0.000324"/>
    </inertial>
    <visual>
      <origin xyz="0.1143 0.07619999999999999 -0.0005"/>
      <geometry>
        <box size="0.2286 0.15239999999999998 0.001"/>
      </geometry>
      <material name="yellow_fabric"/>
    </visual>
    <collision>
      <origin xyz="0.1143 0.07619999999999999 -0.0005"/>
      <geometry>
        <box size="0.2286 0.15239999999999998 0.001"/>
      </geometry>
    </collision>
  </link>
  <link name="pod_bin_3c_left">
    <inertial>
      <mass value="0.01"/>
      <inertia ixx="0.0002835" ixy="0.0" ixz="0.0" iyy="0.0002835" iyz="0.0" izz="0.000324"/>
    </inertial>
    <visual>
      <origin xyz="0.07619999999999999 0.09525 -0.0005"/>
      <geometry>
        <box size="0.15239999999999998 0.1905 0.001"/>
      </geometry>
      <material name="yellow_fabric"/>
    </visual>
    <collision>
      <origin xyz="0.07619999999999999 0.09525 -0.0005"/>
      <geometry>
        <box size="0.15239999999999998 0.1905 0.001"/>
      </geometry>
    </collision>
  </link>
  <link name="pod_bin_3c_right">
    <inertial>
      <mass value="0.01"/>
      <inertia ixx="0.0002835" ixy="0.0" ixz="0.0" iyy="0.0002835" iyz="0.0" izz="0.000324"/>
    </inertial>
    <visual>
      <origin xyz="0.07619999999999999 0.09525 -0.0005"/>
      <geometry>
        <box size="0.15239999999999998 0.1905 0.001"/>
      </geometry>
      <material name="yellow_fabric"/>
    </visual>
    <collision>
      <origin xyz="0.07619999999999999 0.09525 -0.0005"/>
      <geometry>
        <box size="0.15239999999999998 0.1905 0.001"/>
      </geometry>
    </collision>
  </link>
  <link name="pod_bin_3c_top">
    <inertial>
      <mass value="0.01"/>
      <inertia ixx="0.0002835" ixy="0.0" ixz="0.0" iyy="0.0002835" iyz="0.0" izz="0.000324"/>
    </inertial>
    <visual>
      <origin xyz="0.1143 0.07619999999999999 -0.0005"/>
      <geometry>
        <box size="0.2286 0.15239999999999998 0.001"/>
      </geometry>
      <material name="yellow_fabric"/>
    </visual>
    <collision>
      <origin xyz="0.1143 0.07619999999999999 -0.0005"/>
      <geometry>
        <box size="0.2286 0.15239999999999998 0.001"/>
      </geometry>
    </collision>
  </link>
  <link name="pod_bin_3c_back">
    <inertial>
      <mass value="0.01"/>
      <inertia ixx="0.0002835" ixy="0.0" ixz="0.0" iyy="0.0002835" iyz="0.0" izz="0.000324"/>
    </inertial>
    <visual>
      <origin xyz="0.1143 0.09525 -0.0005"/>
      <geometry>
        <box size="0.2286 0.1905 0.001"/>
      </geometry>
      <material name="yellow_fabric"/>
    </visual>
    <collision>
      <origin xyz="0.1143 0.09525 -0.0005"/>
      <geometry>
        <box size="0.2286 0.1905 0.001"/>
      </geometry>
    </collision>
  </link>
  <link name="pod_bin_3c_flap">
    <inertial>
      <mass value="0.01"/>
      <inertia ixx="0.0002835" ixy="0.0" ixz="0.0" iyy="0.0002835" iyz="0.0" izz="0.000324"/>
    </inertial>
    <visual>
      <origin xyz="0.1143 0.0127 -0.0005"/>
      <geometry>
        <box size="0.2286 0.0254 0.001"/>
      </geometry>
      <material name="yellow_fabric"/>
    </visual>
    <collision>
      <origin xyz="0.1143 0.0127 -0.0005"/>
      <geometry>
        <box size="0.2286 0.0254 0.001"/>
      </geometry>
    </collision>
  </link>
  <joint name="pod_bin_3c_pod_bin_3c_bottom" type="fixed">
    <parent link="pod_bin_3c"/>
    <child link="pod_bin_3c_bottom"/>
  </joint>
  <joint name="pod_bin_3c_pod_bin_3c_left" type="fixed">
    <origin rpy="1.5707963267948966 0 1.5707963267948966 " xyz="0 0 0"/>
    <parent link="pod_bin_3c"/>
    <child link="pod_bin_3c_left"/>
  </joint>
  <joint name="pod_bin_3c_pod_bin_3c_right" type="fixed">
    <origin rpy="1.5707963267948966 0 1.5707963267948966 " xyz="0.2286 0 0"/>
    <parent link="pod_bin_3c"/>
    <child link="pod_bin_3c_right"/>
  </joint>
  <joint name="pod_bin_3c_pod_bin_3c_top" type="fixed">
    <origin rpy="0 0 0" xyz="0 0 0.1905"/>
    <parent link="pod_bin_3c"/>
    <child link="pod_bin_3c_top"/>
  </joint>
  <joint name="pod_bin_3c_pod_bin_3c_back" type="fixed">
    <origin rpy="1.5707963267948966 0 0" xyz="0 0.15239999999999998 0"/>
    <parent link="pod_bin_3c"/>
    <child link="pod_bin_3c_back"/>
  </joint>
  <joint name="pod_bin_3c_pod_bin_3c_flap" type="fixed">
    <origin rpy="1.5707963267948966 0 0" xyz="0 0 0"/>
    <parent link="pod_bin_3c"/>
    <child link="pod_bin_3c_flap"/>
  </joint>
  <joint name="pod_shelf_c_pod_bin_3c_joint" type="fixed">
    <origin xyz="0.4572 0 0"/>
    <parent link="pod_shelf_c"/>
    <child link="pod_bin_3c"/>
  </joint>
  <link name="pod_bin_4c"/>
  <link name="pod_bin_4c_bottom">
    <inertial>
      <mass value="0.01"/>
      <inertia ixx="0.0002835" ixy="0.0" ixz="0.0" iyy="0.0002835" iyz="0.0" izz="0.000324"/>
    </inertial>
    <visual>
      <origin xyz="0.1143 0.07619999999999999 -0.0005"/>
      <geometry>
        <box size="0.2286 0.15239999999999998 0.001"/>
      </geometry>
      <material name="yellow_fabric"/>
    </visual>
    <collision>
      <origin xyz="0.1143 0.07619999999999999 -0.0005"/>
      <geometry>
        <box size="0.2286 0.15239999999999998 0.001"/>
      </geometry>
    </collision>
  </link>
  <link name="pod_bin_4c_left">
    <inertial>
      <mass value="0.01"/>
      <inertia ixx="0.0002835" ixy="0.0" ixz="0.0" iyy="0.0002835" iyz="0.0" izz="0.000324"/>
    </inertial>
    <visual>
      <origin xyz="0.07619999999999999 0.09525 -0.0005"/>
      <geometry>
        <box size="0.15239999999999998 0.1905 0.001"/>
      </geometry>
      <material name="yellow_fabric"/>
    </visual>
    <collision>
      <origin xyz="0.07619999999999999 0.09525 -0.0005"/>
      <geometry>
        <box size="0.15239999999999998 0.1905 0.001"/>
      </geometry>
    </collision>
  </link>
  <link name="pod_bin_4c_right">
    <inertial>
      <mass value="0.01"/>
      <inertia ixx="0.0002835" ixy="0.0" ixz="0.0" iyy="0.0002835" iyz="0.0" izz="0.000324"/>
    </inertial>
    <visual>
      <origin xyz="0.07619999999999999 0.09525 -0.0005"/>
      <geometry>
        <box size="0.15239999999999998 0.1905 0.001"/>
      </geometry>
      <material name="yellow_fabric"/>
    </visual>
    <collision>
      <origin xyz="0.07619999999999999 0.09525 -0.0005"/>
      <geometry>
        <box size="0.15239999999999998 0.1905 0.001"/>
      </geometry>
    </collision>
  </link>
  <link name="pod_bin_4c_top">
    <inertial>
      <mass value="0.01"/>
      <inertia ixx="0.0002835" ixy="0.0" ixz="0.0" iyy="0.0002835" iyz="0.0" izz="0.000324"/>
    </inertial>
    <visual>
      <origin xyz="0.1143 0.07619999999999999 -0.0005"/>
      <geometry>
        <box size="0.2286 0.15239999999999998 0.001"/>
      </geometry>
      <material name="yellow_fabric"/>
    </visual>
    <collision>
      <origin xyz="0.1143 0.07619999999999999 -0.0005"/>
      <geometry>
        <box size="0.2286 0.15239999999999998 0.001"/>
      </geometry>
    </collision>
  </link>
  <link name="pod_bin_4c_back">
    <inertial>
      <mass value="0.01"/>
      <inertia ixx="0.0002835" ixy="0.0" ixz="0.0" iyy="0.0002835" iyz="0.0" izz="0.000324"/>
    </inertial>
    <visual>
      <origin xyz="0.1143 0.09525 -0.0005"/>
      <geometry>
        <box size="0.2286 0.1905 0.001"/>
      </geometry>
      <material name="yellow_fabric"/>
    </visual>
    <collision>
      <origin xyz="0.1143 0.09525 -0.0005"/>
      <geometry>
        <box size="0.2286 0.1905 0.001"/>
      </geometry>
    </collision>
  </link>
  <link name="pod_bin_4c_flap">
    <inertial>
      <mass value="0.01"/>
      <inertia ixx="0.0002835" ixy="0.0" ixz="0.0" iyy="0.0002835" iyz="0.0" izz="0.000324"/>
    </inertial>
    <visual>
      <origin xyz="0.1143 0.0127 -0.0005"/>
      <geometry>
        <box size="0.2286 0.0254 0.001"/>
      </geometry>
      <material name="yellow_fabric"/>
    </visual>
    <collision>
      <origin xyz="0.1143 0.0127 -0.0005"/>
      <geometry>
        <box size="0.2286 0.0254 0.001"/>
      </geometry>
    </collision>
  </link>
  <joint name="pod_bin_4c_pod_bin_4c_bottom" type="fixed">
    <parent link="pod_bin_4c"/>
    <child link="pod_bin_4c_bottom"/>
  </joint>
  <joint name="pod_bin_4c_pod_bin_4c_left" type="fixed">
    <origin rpy="1.5707963267948966 0 1.5707963267948966 " xyz="0 0 0"/>
    <parent link="pod_bin_4c"/>
    <child link="pod_bin_4c_left"/>
  </joint>
  <joint name="pod_bin_4c_pod_bin_4c_right" type="fixed">
    <origin rpy="1.5707963267948966 0 1.5707963267948966 " xyz="0.2286 0 0"/>
    <parent link="pod_bin_4c"/>
    <child link="pod_bin_4c_right"/>
  </joint>
  <joint name="pod_bin_4c_pod_bin_4c_top" type="fixed">
    <origin rpy="0 0 0" xyz="0 0 0.1905"/>
    <parent link="pod_bin_4c"/>
    <child link="pod_bin_4c_top"/>
  </joint>
  <joint name="pod_bin_4c_pod_bin_4c_back" type="fixed">
    <origin rpy="1.5707963267948966 0 0" xyz="0 0.15239999999999998 0"/>
    <parent link="pod_bin_4c"/>
    <child link="pod_bin_4c_back"/>
  </joint>
  <joint name="pod_bin_4c_pod_bin_4c_flap" type="fixed">
    <origin rpy="1.5707963267948966 0 0" xyz="0 0 0"/>
    <parent link="pod_bin_4c"/>
    <child link="pod_bin_4c_flap"/>
  </joint>
  <joint name="pod_shelf_c_pod_bin_4c_joint" type="fixed">
    <origin xyz="0.6858 0 0"/>
    <parent link="pod_shelf_c"/>
    <child link="pod_bin_4c"/>
  </joint>
  <joint name="pod_fabric_base_pod_shelf_c_joint" type="fixed">
    <origin xyz="0 0 0.36195"/>
    <parent link="pod_fabric_base"/>
    <child link="pod_shelf_c"/>
  </joint>
  <link name="pod_shelf_d"/>
  <link name="pod_bin_1d"/>
  <link name="pod_bin_1d_bottom">
    <inertial>
      <mass value="0.01"/>
      <inertia ixx="0.0002835" ixy="0.0" ixz="0.0" iyy="0.0002835" iyz="0.0" izz="0.000324"/>
    </inertial>
    <visual>
      <origin xyz="0.1143 0.07619999999999999 -0.0005"/>
      <geometry>
        <box size="0.2286 0.15239999999999998 0.001"/>
      </geometry>
      <material name="yellow_fabric"/>
    </visual>
    <collision>
      <origin xyz="0.1143 0.07619999999999999 -0.0005"/>
      <geometry>
        <box size="0.2286 0.15239999999999998 0.001"/>
      </geometry>
    </collision>
  </link>
  <link name="pod_bin_1d_left">
    <inertial>
      <mass value="0.01"/>
      <inertia ixx="0.0002835" ixy="0.0" ixz="0.0" iyy="0.0002835" iyz="0.0" izz="0.000324"/>
    </inertial>
    <visual>
      <origin xyz="0.07619999999999999 0.07619999999999999 -0.0005"/>
      <geometry>
        <box size="0.15239999999999998 0.15239999999999998 0.001"/>
      </geometry>
      <material name="yellow_fabric"/>
    </visual>
    <collision>
      <origin xyz="0.07619999999999999 0.07619999999999999 -0.0005"/>
      <geometry>
        <box size="0.15239999999999998 0.15239999999999998 0.001"/>
      </geometry>
    </collision>
  </link>
  <link name="pod_bin_1d_right">
    <inertial>
      <mass value="0.01"/>
      <inertia ixx="0.0002835" ixy="0.0" ixz="0.0" iyy="0.0002835" iyz="0.0" izz="0.000324"/>
    </inertial>
    <visual>
      <origin xyz="0.07619999999999999 0.07619999999999999 -0.0005"/>
      <geometry>
        <box size="0.15239999999999998 0.15239999999999998 0.001"/>
      </geometry>
      <material name="yellow_fabric"/>
    </visual>
    <collision>
      <origin xyz="0.07619999999999999 0.07619999999999999 -0.0005"/>
      <geometry>
        <box size="0.15239999999999998 0.15239999999999998 0.001"/>
      </geometry>
    </collision>
  </link>
  <link name="pod_bin_1d_top">
    <inertial>
      <mass value="0.01"/>
      <inertia ixx="0.0002835" ixy="0.0" ixz="0.0" iyy="0.0002835" iyz="0.0" izz="0.000324"/>
    </inertial>
    <visual>
      <origin xyz="0.1143 0.07619999999999999 -0.0005"/>
      <geometry>
        <box size="0.2286 0.15239999999999998 0.001"/>
      </geometry>
      <material name="yellow_fabric"/>
    </visual>
    <collision>
      <origin xyz="0.1143 0.07619999999999999 -0.0005"/>
      <geometry>
        <box size="0.2286 0.15239999999999998 0.001"/>
      </geometry>
    </collision>
  </link>
  <link name="pod_bin_1d_back">
    <inertial>
      <mass value="0.01"/>
      <inertia ixx="0.0002835" ixy="0.0" ixz="0.0" iyy="0.0002835" iyz="0.0" izz="0.000324"/>
    </inertial>
    <visual>
      <origin xyz="0.1143 0.07619999999999999 -0.0005"/>
      <geometry>
        <box size="0.2286 0.15239999999999998 0.001"/>
      </geometry>
      <material name="yellow_fabric"/>
    </visual>
    <collision>
      <origin xyz="0.1143 0.07619999999999999 -0.0005"/>
      <geometry>
        <box size="0.2286 0.15239999999999998 0.001"/>
      </geometry>
    </collision>
  </link>
  <link name="pod_bin_1d_flap">
    <inertial>
      <mass value="0.01"/>
      <inertia ixx="0.0002835" ixy="0.0" ixz="0.0" iyy="0.0002835" iyz="0.0" izz="0.000324"/>
    </inertial>
    <visual>
      <origin xyz="0.1143 0.0127 -0.0005"/>
      <geometry>
        <box size="0.2286 0.0254 0.001"/>
      </geometry>
      <material name="yellow_fabric"/>
    </visual>
    <collision>
      <origin xyz="0.1143 0.0127 -0.0005"/>
      <geometry>
        <box size="0.2286 0.0254 0.001"/>
      </geometry>
    </collision>
  </link>
  <joint name="pod_bin_1d_pod_bin_1d_bottom" type="fixed">
    <parent link="pod_bin_1d"/>
    <child link="pod_bin_1d_bottom"/>
  </joint>
  <joint name="pod_bin_1d_pod_bin_1d_left" type="fixed">
    <origin rpy="1.5707963267948966 0 1.5707963267948966 " xyz="0 0 0"/>
    <parent link="pod_bin_1d"/>
    <child link="pod_bin_1d_left"/>
  </joint>
  <joint name="pod_bin_1d_pod_bin_1d_right" type="fixed">
    <origin rpy="1.5707963267948966 0 1.5707963267948966 " xyz="0.2286 0 0"/>
    <parent link="pod_bin_1d"/>
    <child link="pod_bin_1d_right"/>
  </joint>
  <joint name="pod_bin_1d_pod_bin_1d_top" type="fixed">
    <origin rpy="0 0 0" xyz="0 0 0.15239999999999998"/>
    <parent link="pod_bin_1d"/>
    <child link="pod_bin_1d_top"/>
  </joint>
  <joint name="pod_bin_1d_pod_bin_1d_back" type="fixed">
    <origin rpy="1.5707963267948966 0 0" xyz="0 0.15239999999999998 0"/>
    <parent link="pod_bin_1d"/>
    <child link="pod_bin_1d_back"/>
  </joint>
  <joint name="pod_bin_1d_pod_bin_1d_flap" type="fixed">
    <origin rpy="1.5707963267948966 0 0" xyz="0 0 0"/>
    <parent link="pod_bin_1d"/>
    <child link="pod_bin_1d_flap"/>
  </joint>
  <joint name="pod_shelf_d_pod_bin_1d_joint" type="fixed">
    <origin xyz="0.0 0 0"/>
    <parent link="pod_shelf_d"/>
    <child link="pod_bin_1d"/>
  </joint>
  <link name="pod_bin_2d"/>
  <link name="pod_bin_2d_bottom">
    <inertial>
      <mass value="0.01"/>
      <inertia ixx="0.0002835" ixy="0.0" ixz="0.0" iyy="0.0002835" iyz="0.0" izz="0.000324"/>
    </inertial>
    <visual>
      <origin xyz="0.1143 0.07619999999999999 -0.0005"/>
      <geometry>
        <box size="0.2286 0.15239999999999998 0.001"/>
      </geometry>
      <material name="yellow_fabric"/>
    </visual>
    <collision>
      <origin xyz="0.1143 0.07619999999999999 -0.0005"/>
      <geometry>
        <box size="0.2286 0.15239999999999998 0.001"/>
      </geometry>
    </collision>
  </link>
  <link name="pod_bin_2d_left">
    <inertial>
      <mass value="0.01"/>
      <inertia ixx="0.0002835" ixy="0.0" ixz="0.0" iyy="0.0002835" iyz="0.0" izz="0.000324"/>
    </inertial>
    <visual>
      <origin xyz="0.07619999999999999 0.07619999999999999 -0.0005"/>
      <geometry>
        <box size="0.15239999999999998 0.15239999999999998 0.001"/>
      </geometry>
      <material name="yellow_fabric"/>
    </visual>
    <collision>
      <origin xyz="0.07619999999999999 0.07619999999999999 -0.0005"/>
      <geometry>
        <box size="0.15239999999999998 0.15239999999999998 0.001"/>
      </geometry>
    </collision>
  </link>
  <link name="pod_bin_2d_right">
    <inertial>
      <mass value="0.01"/>
      <inertia ixx="0.0002835" ixy="0.0" ixz="0.0" iyy="0.0002835" iyz="0.0" izz="0.000324"/>
    </inertial>
    <visual>
      <origin xyz="0.07619999999999999 0.07619999999999999 -0.0005"/>
      <geometry>
        <box size="0.15239999999999998 0.15239999999999998 0.001"/>
      </geometry>
      <material name="yellow_fabric"/>
    </visual>
    <collision>
      <origin xyz="0.07619999999999999 0.07619999999999999 -0.0005"/>
      <geometry>
        <box size="0.15239999999999998 0.15239999999999998 0.001"/>
      </geometry>
    </collision>
  </link>
  <link name="pod_bin_2d_top">
    <inertial>
      <mass value="0.01"/>
      <inertia ixx="0.0002835" ixy="0.0" ixz="0.0" iyy="0.0002835" iyz="0.0" izz="0.000324"/>
    </inertial>
    <visual>
      <origin xyz="0.1143 0.07619999999999999 -0.0005"/>
      <geometry>
        <box size="0.2286 0.15239999999999998 0.001"/>
      </geometry>
      <material name="yellow_fabric"/>
    </visual>
    <collision>
      <origin xyz="0.1143 0.07619999999999999 -0.0005"/>
      <geometry>
        <box size="0.2286 0.15239999999999998 0.001"/>
      </geometry>
    </collision>
  </link>
  <link name="pod_bin_2d_back">
    <inertial>
      <mass value="0.01"/>
      <inertia ixx="0.0002835" ixy="0.0" ixz="0.0" iyy="0.0002835" iyz="0.0" izz="0.000324"/>
    </inertial>
    <visual>
      <origin xyz="0.1143 0.07619999999999999 -0.0005"/>
      <geometry>
        <box size="0.2286 0.15239999999999998 0.001"/>
      </geometry>
      <material name="yellow_fabric"/>
    </visual>
    <collision>
      <origin xyz="0.1143 0.07619999999999999 -0.0005"/>
      <geometry>
        <box size="0.2286 0.15239999999999998 0.001"/>
      </geometry>
    </collision>
  </link>
  <link name="pod_bin_2d_flap">
    <inertial>
      <mass value="0.01"/>
      <inertia ixx="0.0002835" ixy="0.0" ixz="0.0" iyy="0.0002835" iyz="0.0" izz="0.000324"/>
    </inertial>
    <visual>
      <origin xyz="0.1143 0.0127 -0.0005"/>
      <geometry>
        <box size="0.2286 0.0254 0.001"/>
      </geometry>
      <material name="yellow_fabric"/>
    </visual>
    <collision>
      <origin xyz="0.1143 0.0127 -0.0005"/>
      <geometry>
        <box size="0.2286 0.0254 0.001"/>
      </geometry>
    </collision>
  </link>
  <joint name="pod_bin_2d_pod_bin_2d_bottom" type="fixed">
    <parent link="pod_bin_2d"/>
    <child link="pod_bin_2d_bottom"/>
  </joint>
  <joint name="pod_bin_2d_pod_bin_2d_left" type="fixed">
    <origin rpy="1.5707963267948966 0 1.5707963267948966 " xyz="0 0 0"/>
    <parent link="pod_bin_2d"/>
    <child link="pod_bin_2d_left"/>
  </joint>
  <joint name="pod_bin_2d_pod_bin_2d_right" type="fixed">
    <origin rpy="1.5707963267948966 0 1.5707963267948966 " xyz="0.2286 0 0"/>
    <parent link="pod_bin_2d"/>
    <child link="pod_bin_2d_right"/>
  </joint>
  <joint name="pod_bin_2d_pod_bin_2d_top" type="fixed">
    <origin rpy="0 0 0" xyz="0 0 0.15239999999999998"/>
    <parent link="pod_bin_2d"/>
    <child link="pod_bin_2d_top"/>
  </joint>
  <joint name="pod_bin_2d_pod_bin_2d_back" type="fixed">
    <origin rpy="1.5707963267948966 0 0" xyz="0 0.15239999999999998 0"/>
    <parent link="pod_bin_2d"/>
    <child link="pod_bin_2d_back"/>
  </joint>
  <joint name="pod_bin_2d_pod_bin_2d_flap" type="fixed">
    <origin rpy="1.5707963267948966 0 0" xyz="0 0 0"/>
    <parent link="pod_bin_2d"/>
    <child link="pod_bin_2d_flap"/>
  </joint>
  <joint name="pod_shelf_d_pod_bin_2d_joint" type="fixed">
    <origin xyz="0.2286 0 0"/>
    <parent link="pod_shelf_d"/>
    <child link="pod_bin_2d"/>
  </joint>
  <link name="pod_bin_3d"/>
  <link name="pod_bin_3d_bottom">
    <inertial>
      <mass value="0.01"/>
      <inertia ixx="0.0002835" ixy="0.0" ixz="0.0" iyy="0.0002835" iyz="0.0" izz="0.000324"/>
    </inertial>
    <visual>
      <origin xyz="0.1143 0.07619999999999999 -0.0005"/>
      <geometry>
        <box size="0.2286 0.15239999999999998 0.001"/>
      </geometry>
      <material name="yellow_fabric"/>
    </visual>
    <collision>
      <origin xyz="0.1143 0.07619999999999999 -0.0005"/>
      <geometry>
        <box size="0.2286 0.15239999999999998 0.001"/>
      </geometry>
    </collision>
  </link>
  <link name="pod_bin_3d_left">
    <inertial>
      <mass value="0.01"/>
      <inertia ixx="0.0002835" ixy="0.0" ixz="0.0" iyy="0.0002835" iyz="0.0" izz="0.000324"/>
    </inertial>
    <visual>
      <origin xyz="0.07619999999999999 0.07619999999999999 -0.0005"/>
      <geometry>
        <box size="0.15239999999999998 0.15239999999999998 0.001"/>
      </geometry>
      <material name="yellow_fabric"/>
    </visual>
    <collision>
      <origin xyz="0.07619999999999999 0.07619999999999999 -0.0005"/>
      <geometry>
        <box size="0.15239999999999998 0.15239999999999998 0.001"/>
      </geometry>
    </collision>
  </link>
  <link name="pod_bin_3d_right">
    <inertial>
      <mass value="0.01"/>
      <inertia ixx="0.0002835" ixy="0.0" ixz="0.0" iyy="0.0002835" iyz="0.0" izz="0.000324"/>
    </inertial>
    <visual>
      <origin xyz="0.07619999999999999 0.07619999999999999 -0.0005"/>
      <geometry>
        <box size="0.15239999999999998 0.15239999999999998 0.001"/>
      </geometry>
      <material name="yellow_fabric"/>
    </visual>
    <collision>
      <origin xyz="0.07619999999999999 0.07619999999999999 -0.0005"/>
      <geometry>
        <box size="0.15239999999999998 0.15239999999999998 0.001"/>
      </geometry>
    </collision>
  </link>
  <link name="pod_bin_3d_top">
    <inertial>
      <mass value="0.01"/>
      <inertia ixx="0.0002835" ixy="0.0" ixz="0.0" iyy="0.0002835" iyz="0.0" izz="0.000324"/>
    </inertial>
    <visual>
      <origin xyz="0.1143 0.07619999999999999 -0.0005"/>
      <geometry>
        <box size="0.2286 0.15239999999999998 0.001"/>
      </geometry>
      <material name="yellow_fabric"/>
    </visual>
    <collision>
      <origin xyz="0.1143 0.07619999999999999 -0.0005"/>
      <geometry>
        <box size="0.2286 0.15239999999999998 0.001"/>
      </geometry>
    </collision>
  </link>
  <link name="pod_bin_3d_back">
    <inertial>
      <mass value="0.01"/>
      <inertia ixx="0.0002835" ixy="0.0" ixz="0.0" iyy="0.0002835" iyz="0.0" izz="0.000324"/>
    </inertial>
    <visual>
      <origin xyz="0.1143 0.07619999999999999 -0.0005"/>
      <geometry>
        <box size="0.2286 0.15239999999999998 0.001"/>
      </geometry>
      <material name="yellow_fabric"/>
    </visual>
    <collision>
      <origin xyz="0.1143 0.07619999999999999 -0.0005"/>
      <geometry>
        <box size="0.2286 0.15239999999999998 0.001"/>
      </geometry>
    </collision>
  </link>
  <link name="pod_bin_3d_flap">
    <inertial>
      <mass value="0.01"/>
      <inertia ixx="0.0002835" ixy="0.0" ixz="0.0" iyy="0.0002835" iyz="0.0" izz="0.000324"/>
    </inertial>
    <visual>
      <origin xyz="0.1143 0.0127 -0.0005"/>
      <geometry>
        <box size="0.2286 0.0254 0.001"/>
      </geometry>
      <material name="yellow_fabric"/>
    </visual>
    <collision>
      <origin xyz="0.1143 0.0127 -0.0005"/>
      <geometry>
        <box size="0.2286 0.0254 0.001"/>
      </geometry>
    </collision>
  </link>
  <joint name="pod_bin_3d_pod_bin_3d_bottom" type="fixed">
    <parent link="pod_bin_3d"/>
    <child link="pod_bin_3d_bottom"/>
  </joint>
  <joint name="pod_bin_3d_pod_bin_3d_left" type="fixed">
    <origin rpy="1.5707963267948966 0 1.5707963267948966 " xyz="0 0 0"/>
    <parent link="pod_bin_3d"/>
    <child link="pod_bin_3d_left"/>
  </joint>
  <joint name="pod_bin_3d_pod_bin_3d_right" type="fixed">
    <origin rpy="1.5707963267948966 0 1.5707963267948966 " xyz="0.2286 0 0"/>
    <parent link="pod_bin_3d"/>
    <child link="pod_bin_3d_right"/>
  </joint>
  <joint name="pod_bin_3d_pod_bin_3d_top" type="fixed">
    <origin rpy="0 0 0" xyz="0 0 0.15239999999999998"/>
    <parent link="pod_bin_3d"/>
    <child link="pod_bin_3d_top"/>
  </joint>
  <joint name="pod_bin_3d_pod_bin_3d_back" type="fixed">
    <origin rpy="1.5707963267948966 0 0" xyz="0 0.15239999999999998 0"/>
    <parent link="pod_bin_3d"/>
    <child link="pod_bin_3d_back"/>
  </joint>
  <joint name="pod_bin_3d_pod_bin_3d_flap" type="fixed">
    <origin rpy="1.5707963267948966 0 0" xyz="0 0 0"/>
    <parent link="pod_bin_3d"/>
    <child link="pod_bin_3d_flap"/>
  </joint>
  <joint name="pod_shelf_d_pod_bin_3d_joint" type="fixed">
    <origin xyz="0.4572 0 0"/>
    <parent link="pod_shelf_d"/>
    <child link="pod_bin_3d"/>
  </joint>
  <link name="pod_bin_4d"/>
  <link name="pod_bin_4d_bottom">
    <inertial>
      <mass value="0.01"/>
      <inertia ixx="0.0002835" ixy="0.0" ixz="0.0" iyy="0.0002835" iyz="0.0" izz="0.000324"/>
    </inertial>
    <visual>
      <origin xyz="0.1143 0.07619999999999999 -0.0005"/>
      <geometry>
        <box size="0.2286 0.15239999999999998 0.001"/>
      </geometry>
      <material name="yellow_fabric"/>
    </visual>
    <collision>
      <origin xyz="0.1143 0.07619999999999999 -0.0005"/>
      <geometry>
        <box size="0.2286 0.15239999999999998 0.001"/>
      </geometry>
    </collision>
  </link>
  <link name="pod_bin_4d_left">
    <inertial>
      <mass value="0.01"/>
      <inertia ixx="0.0002835" ixy="0.0" ixz="0.0" iyy="0.0002835" iyz="0.0" izz="0.000324"/>
    </inertial>
    <visual>
      <origin xyz="0.07619999999999999 0.07619999999999999 -0.0005"/>
      <geometry>
        <box size="0.15239999999999998 0.15239999999999998 0.001"/>
      </geometry>
      <material name="yellow_fabric"/>
    </visual>
    <collision>
      <origin xyz="0.07619999999999999 0.07619999999999999 -0.0005"/>
      <geometry>
        <box size="0.15239999999999998 0.15239999999999998 0.001"/>
      </geometry>
    </collision>
  </link>
  <link name="pod_bin_4d_right">
    <inertial>
      <mass value="0.01"/>
      <inertia ixx="0.0002835" ixy="0.0" ixz="0.0" iyy="0.0002835" iyz="0.0" izz="0.000324"/>
    </inertial>
    <visual>
      <origin xyz="0.07619999999999999 0.07619999999999999 -0.0005"/>
      <geometry>
        <box size="0.15239999999999998 0.15239999999999998 0.001"/>
      </geometry>
      <material name="yellow_fabric"/>
    </visual>
    <collision>
      <origin xyz="0.07619999999999999 0.07619999999999999 -0.0005"/>
      <geometry>
        <box size="0.15239999999999998 0.15239999999999998 0.001"/>
      </geometry>
    </collision>
  </link>
  <link name="pod_bin_4d_top">
    <inertial>
      <mass value="0.01"/>
      <inertia ixx="0.0002835" ixy="0.0" ixz="0.0" iyy="0.0002835" iyz="0.0" izz="0.000324"/>
    </inertial>
    <visual>
      <origin xyz="0.1143 0.07619999999999999 -0.0005"/>
      <geometry>
        <box size="0.2286 0.15239999999999998 0.001"/>
      </geometry>
      <material name="yellow_fabric"/>
    </visual>
    <collision>
      <origin xyz="0.1143 0.07619999999999999 -0.0005"/>
      <geometry>
        <box size="0.2286 0.15239999999999998 0.001"/>
      </geometry>
    </collision>
  </link>
  <link name="pod_bin_4d_back">
    <inertial>
      <mass value="0.01"/>
      <inertia ixx="0.0002835" ixy="0.0" ixz="0.0" iyy="0.0002835" iyz="0.0" izz="0.000324"/>
    </inertial>
    <visual>
      <origin xyz="0.1143 0.07619999999999999 -0.0005"/>
      <geometry>
        <box size="0.2286 0.15239999999999998 0.001"/>
      </geometry>
      <material name="yellow_fabric"/>
    </visual>
    <collision>
      <origin xyz="0.1143 0.07619999999999999 -0.0005"/>
      <geometry>
        <box size="0.2286 0.15239999999999998 0.001"/>
      </geometry>
    </collision>
  </link>
  <link name="pod_bin_4d_flap">
    <inertial>
      <mass value="0.01"/>
      <inertia ixx="0.0002835" ixy="0.0" ixz="0.0" iyy="0.0002835" iyz="0.0" izz="0.000324"/>
    </inertial>
    <visual>
      <origin xyz="0.1143 0.0127 -0.0005"/>
      <geometry>
        <box size="0.2286 0.0254 0.001"/>
      </geometry>
      <material name="yellow_fabric"/>
    </visual>
    <collision>
      <origin xyz="0.1143 0.0127 -0.0005"/>
      <geometry>
        <box size="0.2286 0.0254 0.001"/>
      </geometry>
    </collision>
  </link>
  <joint name="pod_bin_4d_pod_bin_4d_bottom" type="fixed">
    <parent link="pod_bin_4d"/>
    <child link="pod_bin_4d_bottom"/>
  </joint>
  <joint name="pod_bin_4d_pod_bin_4d_left" type="fixed">
    <origin rpy="1.5707963267948966 0 1.5707963267948966 " xyz="0 0 0"/>
    <parent link="pod_bin_4d"/>
    <child link="pod_bin_4d_left"/>
  </joint>
  <joint name="pod_bin_4d_pod_bin_4d_right" type="fixed">
    <origin rpy="1.5707963267948966 0 1.5707963267948966 " xyz="0.2286 0 0"/>
    <parent link="pod_bin_4d"/>
    <child link="pod_bin_4d_right"/>
  </joint>
  <joint name="pod_bin_4d_pod_bin_4d_top" type="fixed">
    <origin rpy="0 0 0" xyz="0 0 0.15239999999999998"/>
    <parent link="pod_bin_4d"/>
    <child link="pod_bin_4d_top"/>
  </joint>
  <joint name="pod_bin_4d_pod_bin_4d_back" type="fixed">
    <origin rpy="1.5707963267948966 0 0" xyz="0 0.15239999999999998 0"/>
    <parent link="pod_bin_4d"/>
    <child link="pod_bin_4d_back"/>
  </joint>
  <joint name="pod_bin_4d_pod_bin_4d_flap" type="fixed">
    <origin rpy="1.5707963267948966 0 0" xyz="0 0 0"/>
    <parent link="pod_bin_4d"/>
    <child link="pod_bin_4d_flap"/>
  </joint>
  <joint name="pod_shelf_d_pod_bin_4d_joint" type="fixed">
    <origin xyz="0.6858 0 0"/>
    <parent link="pod_shelf_d"/>
    <child link="pod_bin_4d"/>
  </joint>
  <joint name="pod_fabric_base_pod_shelf_d_joint" type="fixed">
    <origin xyz="0 0 0.55245"/>
    <parent link="pod_fabric_base"/>
    <child link="pod_shelf_d"/>
  </joint>
  <link name="pod_shelf_e"/>
  <link name="pod_bin_1e"/>
  <link name="pod_bin_1e_bottom">
    <inertial>
      <mass value="0.01"/>
      <inertia ixx="0.0002835" ixy="0.0" ixz="0.0" iyy="0.0002835" iyz="0.0" izz="0.000324"/>
    </inertial>
    <visual>
      <origin xyz="0.1143 0.07619999999999999 -0.0005"/>
      <geometry>
        <box size="0.2286 0.15239999999999998 0.001"/>
      </geometry>
      <material name="yellow_fabric"/>
    </visual>
    <collision>
      <origin xyz="0.1143 0.07619999999999999 -0.0005"/>
      <geometry>
        <box size="0.2286 0.15239999999999998 0.001"/>
      </geometry>
    </collision>
  </link>
  <link name="pod_bin_1e_left">
    <inertial>
      <mass value="0.01"/>
      <inertia ixx="0.0002835" ixy="0.0" ixz="0.0" iyy="0.0002835" iyz="0.0" izz="0.000324"/>
    </inertial>
    <visual>
      <origin xyz="0.07619999999999999 0.05715 -0.0005"/>
      <geometry>
        <box size="0.15239999999999998 0.1143 0.001"/>
      </geometry>
      <material name="yellow_fabric"/>
    </visual>
    <collision>
      <origin xyz="0.07619999999999999 0.05715 -0.0005"/>
      <geometry>
        <box size="0.15239999999999998 0.1143 0.001"/>
      </geometry>
    </collision>
  </link>
  <link name="pod_bin_1e_right">
    <inertial>
      <mass value="0.01"/>
      <inertia ixx="0.0002835" ixy="0.0" ixz="0.0" iyy="0.0002835" iyz="0.0" izz="0.000324"/>
    </inertial>
    <visual>
      <origin xyz="0.07619999999999999 0.05715 -0.0005"/>
      <geometry>
        <box size="0.15239999999999998 0.1143 0.001"/>
      </geometry>
      <material name="yellow_fabric"/>
    </visual>
    <collision>
      <origin xyz="0.07619999999999999 0.05715 -0.0005"/>
      <geometry>
        <box size="0.15239999999999998 0.1143 0.001"/>
      </geometry>
    </collision>
  </link>
  <link name="pod_bin_1e_top">
    <inertial>
      <mass value="0.01"/>
      <inertia ixx="0.0002835" ixy="0.0" ixz="0.0" iyy="0.0002835" iyz="0.0" izz="0.000324"/>
    </inertial>
    <visual>
      <origin xyz="0.1143 0.07619999999999999 -0.0005"/>
      <geometry>
        <box size="0.2286 0.15239999999999998 0.001"/>
      </geometry>
      <material name="yellow_fabric"/>
    </visual>
    <collision>
      <origin xyz="0.1143 0.07619999999999999 -0.0005"/>
      <geometry>
        <box size="0.2286 0.15239999999999998 0.001"/>
      </geometry>
    </collision>
  </link>
  <link name="pod_bin_1e_back">
    <inertial>
      <mass value="0.01"/>
      <inertia ixx="0.0002835" ixy="0.0" ixz="0.0" iyy="0.0002835" iyz="0.0" izz="0.000324"/>
    </inertial>
    <visual>
      <origin xyz="0.1143 0.05715 -0.0005"/>
      <geometry>
        <box size="0.2286 0.1143 0.001"/>
      </geometry>
      <material name="yellow_fabric"/>
    </visual>
    <collision>
      <origin xyz="0.1143 0.05715 -0.0005"/>
      <geometry>
        <box size="0.2286 0.1143 0.001"/>
      </geometry>
    </collision>
  </link>
  <link name="pod_bin_1e_flap">
    <inertial>
      <mass value="0.01"/>
      <inertia ixx="0.0002835" ixy="0.0" ixz="0.0" iyy="0.0002835" iyz="0.0" izz="0.000324"/>
    </inertial>
    <visual>
      <origin xyz="0.1143 0.0127 -0.0005"/>
      <geometry>
        <box size="0.2286 0.0254 0.001"/>
      </geometry>
      <material name="yellow_fabric"/>
    </visual>
    <collision>
      <origin xyz="0.1143 0.0127 -0.0005"/>
      <geometry>
        <box size="0.2286 0.0254 0.001"/>
      </geometry>
    </collision>
  </link>
  <joint name="pod_bin_1e_pod_bin_1e_bottom" type="fixed">
    <parent link="pod_bin_1e"/>
    <child link="pod_bin_1e_bottom"/>
  </joint>
  <joint name="pod_bin_1e_pod_bin_1e_left" type="fixed">
    <origin rpy="1.5707963267948966 0 1.5707963267948966 " xyz="0 0 0"/>
    <parent link="pod_bin_1e"/>
    <child link="pod_bin_1e_left"/>
  </joint>
  <joint name="pod_bin_1e_pod_bin_1e_right" type="fixed">
    <origin rpy="1.5707963267948966 0 1.5707963267948966 " xyz="0.2286 0 0"/>
    <parent link="pod_bin_1e"/>
    <child link="pod_bin_1e_right"/>
  </joint>
  <joint name="pod_bin_1e_pod_bin_1e_top" type="fixed">
    <origin rpy="0 0 0" xyz="0 0 0.1143"/>
    <parent link="pod_bin_1e"/>
    <child link="pod_bin_1e_top"/>
  </joint>
  <joint name="pod_bin_1e_pod_bin_1e_back" type="fixed">
    <origin rpy="1.5707963267948966 0 0" xyz="0 0.15239999999999998 0"/>
    <parent link="pod_bin_1e"/>
    <child link="pod_bin_1e_back"/>
  </joint>
  <joint name="pod_bin_1e_pod_bin_1e_flap" type="fixed">
    <origin rpy="1.5707963267948966 0 0" xyz="0 0 0"/>
    <parent link="pod_bin_1e"/>
    <child link="pod_bin_1e_flap"/>
  </joint>
  <joint name="pod_shelf_e_pod_bin_1e_joint" type="fixed">
    <origin xyz="0.0 0 0"/>
    <parent link="pod_shelf_e"/>
    <child link="pod_bin_1e"/>
  </joint>
  <link name="pod_bin_2e"/>
  <link name="pod_bin_2e_bottom">
    <inertial>
      <mass value="0.01"/>
      <inertia ixx="0.0002835" ixy="0.0" ixz="0.0" iyy="0.0002835" iyz="0.0" izz="0.000324"/>
    </inertial>
    <visual>
      <origin xyz="0.1143 0.07619999999999999 -0.0005"/>
      <geometry>
        <box size="0.2286 0.15239999999999998 0.001"/>
      </geometry>
      <material name="yellow_fabric"/>
    </visual>
    <collision>
      <origin xyz="0.1143 0.07619999999999999 -0.0005"/>
      <geometry>
        <box size="0.2286 0.15239999999999998 0.001"/>
      </geometry>
    </collision>
  </link>
  <link name="pod_bin_2e_left">
    <inertial>
      <mass value="0.01"/>
      <inertia ixx="0.0002835" ixy="0.0" ixz="0.0" iyy="0.0002835" iyz="0.0" izz="0.000324"/>
    </inertial>
    <visual>
      <origin xyz="0.07619999999999999 0.05715 -0.0005"/>
      <geometry>
        <box size="0.15239999999999998 0.1143 0.001"/>
      </geometry>
      <material name="yellow_fabric"/>
    </visual>
    <collision>
      <origin xyz="0.07619999999999999 0.05715 -0.0005"/>
      <geometry>
        <box size="0.15239999999999998 0.1143 0.001"/>
      </geometry>
    </collision>
  </link>
  <link name="pod_bin_2e_right">
    <inertial>
      <mass value="0.01"/>
      <inertia ixx="0.0002835" ixy="0.0" ixz="0.0" iyy="0.0002835" iyz="0.0" izz="0.000324"/>
    </inertial>
    <visual>
      <origin xyz="0.07619999999999999 0.05715 -0.0005"/>
      <geometry>
        <box size="0.15239999999999998 0.1143 0.001"/>
      </geometry>
      <material name="yellow_fabric"/>
    </visual>
    <collision>
      <origin xyz="0.07619999999999999 0.05715 -0.0005"/>
      <geometry>
        <box size="0.15239999999999998 0.1143 0.001"/>
      </geometry>
    </collision>
  </link>
  <link name="pod_bin_2e_top">
    <inertial>
      <mass value="0.01"/>
      <inertia ixx="0.0002835" ixy="0.0" ixz="0.0" iyy="0.0002835" iyz="0.0" izz="0.000324"/>
    </inertial>
    <visual>
      <origin xyz="0.1143 0.07619999999999999 -0.0005"/>
      <geometry>
        <box size="0.2286 0.15239999999999998 0.001"/>
      </geometry>
      <material name="yellow_fabric"/>
    </visual>
    <collision>
      <origin xyz="0.1143 0.07619999999999999 -0.0005"/>
      <geometry>
        <box size="0.2286 0.15239999999999998 0.001"/>
      </geometry>
    </collision>
  </link>
  <link name="pod_bin_2e_back">
    <inertial>
      <mass value="0.01"/>
      <inertia ixx="0.0002835" ixy="0.0" ixz="0.0" iyy="0.0002835" iyz="0.0" izz="0.000324"/>
    </inertial>
    <visual>
      <origin xyz="0.1143 0.05715 -0.0005"/>
      <geometry>
        <box size="0.2286 0.1143 0.001"/>
      </geometry>
      <material name="yellow_fabric"/>
    </visual>
    <collision>
      <origin xyz="0.1143 0.05715 -0.0005"/>
      <geometry>
        <box size="0.2286 0.1143 0.001"/>
      </geometry>
    </collision>
  </link>
  <link name="pod_bin_2e_flap">
    <inertial>
      <mass value="0.01"/>
      <inertia ixx="0.0002835" ixy="0.0" ixz="0.0" iyy="0.0002835" iyz="0.0" izz="0.000324"/>
    </inertial>
    <visual>
      <origin xyz="0.1143 0.0127 -0.0005"/>
      <geometry>
        <box size="0.2286 0.0254 0.001"/>
      </geometry>
      <material name="yellow_fabric"/>
    </visual>
    <collision>
      <origin xyz="0.1143 0.0127 -0.0005"/>
      <geometry>
        <box size="0.2286 0.0254 0.001"/>
      </geometry>
    </collision>
  </link>
  <joint name="pod_bin_2e_pod_bin_2e_bottom" type="fixed">
    <parent link="pod_bin_2e"/>
    <child link="pod_bin_2e_bottom"/>
  </joint>
  <joint name="pod_bin_2e_pod_bin_2e_left" type="fixed">
    <origin rpy="1.5707963267948966 0 1.5707963267948966 " xyz="0 0 0"/>
    <parent link="pod_bin_2e"/>
    <child link="pod_bin_2e_left"/>
  </joint>
  <joint name="pod_bin_2e_pod_bin_2e_right" type="fixed">
    <origin rpy="1.5707963267948966 0 1.5707963267948966 " xyz="0.2286 0 0"/>
    <parent link="pod_bin_2e"/>
    <child link="pod_bin_2e_right"/>
  </joint>
  <joint name="pod_bin_2e_pod_bin_2e_top" type="fixed">
    <origin rpy="0 0 0" xyz="0 0 0.1143"/>
    <parent link="pod_bin_2e"/>
    <child link="pod_bin_2e_top"/>
  </joint>
  <joint name="pod_bin_2e_pod_bin_2e_back" type="fixed">
    <origin rpy="1.5707963267948966 0 0" xyz="0 0.15239999999999998 0"/>
    <parent link="pod_bin_2e"/>
    <child link="pod_bin_2e_back"/>
  </joint>
  <joint name="pod_bin_2e_pod_bin_2e_flap" type="fixed">
    <origin rpy="1.5707963267948966 0 0" xyz="0 0 0"/>
    <parent link="pod_bin_2e"/>
    <child link="pod_bin_2e_flap"/>
  </joint>
  <joint name="pod_shelf_e_pod_bin_2e_joint" type="fixed">
    <origin xyz="0.2286 0 0"/>
    <parent link="pod_shelf_e"/>
    <child link="pod_bin_2e"/>
  </joint>
  <link name="pod_bin_3e"/>
  <link name="pod_bin_3e_bottom">
    <inertial>
      <mass value="0.01"/>
      <inertia ixx="0.0002835" ixy="0.0" ixz="0.0" iyy="0.0002835" iyz="0.0" izz="0.000324"/>
    </inertial>
    <visual>
      <origin xyz="0.1143 0.07619999999999999 -0.0005"/>
      <geometry>
        <box size="0.2286 0.15239999999999998 0.001"/>
      </geometry>
      <material name="yellow_fabric"/>
    </visual>
    <collision>
      <origin xyz="0.1143 0.07619999999999999 -0.0005"/>
      <geometry>
        <box size="0.2286 0.15239999999999998 0.001"/>
      </geometry>
    </collision>
  </link>
  <link name="pod_bin_3e_left">
    <inertial>
      <mass value="0.01"/>
      <inertia ixx="0.0002835" ixy="0.0" ixz="0.0" iyy="0.0002835" iyz="0.0" izz="0.000324"/>
    </inertial>
    <visual>
      <origin xyz="0.07619999999999999 0.05715 -0.0005"/>
      <geometry>
        <box size="0.15239999999999998 0.1143 0.001"/>
      </geometry>
      <material name="yellow_fabric"/>
    </visual>
    <collision>
      <origin xyz="0.07619999999999999 0.05715 -0.0005"/>
      <geometry>
        <box size="0.15239999999999998 0.1143 0.001"/>
      </geometry>
    </collision>
  </link>
  <link name="pod_bin_3e_right">
    <inertial>
      <mass value="0.01"/>
      <inertia ixx="0.0002835" ixy="0.0" ixz="0.0" iyy="0.0002835" iyz="0.0" izz="0.000324"/>
    </inertial>
    <visual>
      <origin xyz="0.07619999999999999 0.05715 -0.0005"/>
      <geometry>
        <box size="0.15239999999999998 0.1143 0.001"/>
      </geometry>
      <material name="yellow_fabric"/>
    </visual>
    <collision>
      <origin xyz="0.07619999999999999 0.05715 -0.0005"/>
      <geometry>
        <box size="0.15239999999999998 0.1143 0.001"/>
      </geometry>
    </collision>
  </link>
  <link name="pod_bin_3e_top">
    <inertial>
      <mass value="0.01"/>
      <inertia ixx="0.0002835" ixy="0.0" ixz="0.0" iyy="0.0002835" iyz="0.0" izz="0.000324"/>
    </inertial>
    <visual>
      <origin xyz="0.1143 0.07619999999999999 -0.0005"/>
      <geometry>
        <box size="0.2286 0.15239999999999998 0.001"/>
      </geometry>
      <material name="yellow_fabric"/>
    </visual>
    <collision>
      <origin xyz="0.1143 0.07619999999999999 -0.0005"/>
      <geometry>
        <box size="0.2286 0.15239999999999998 0.001"/>
      </geometry>
    </collision>
  </link>
  <link name="pod_bin_3e_back">
    <inertial>
      <mass value="0.01"/>
      <inertia ixx="0.0002835" ixy="0.0" ixz="0.0" iyy="0.0002835" iyz="0.0" izz="0.000324"/>
    </inertial>
    <visual>
      <origin xyz="0.1143 0.05715 -0.0005"/>
      <geometry>
        <box size="0.2286 0.1143 0.001"/>
      </geometry>
      <material name="yellow_fabric"/>
    </visual>
    <collision>
      <origin xyz="0.1143 0.05715 -0.0005"/>
      <geometry>
        <box size="0.2286 0.1143 0.001"/>
      </geometry>
    </collision>
  </link>
  <link name="pod_bin_3e_flap">
    <inertial>
      <mass value="0.01"/>
      <inertia ixx="0.0002835" ixy="0.0" ixz="0.0" iyy="0.0002835" iyz="0.0" izz="0.000324"/>
    </inertial>
    <visual>
      <origin xyz="0.1143 0.0127 -0.0005"/>
      <geometry>
        <box size="0.2286 0.0254 0.001"/>
      </geometry>
      <material name="yellow_fabric"/>
    </visual>
    <collision>
      <origin xyz="0.1143 0.0127 -0.0005"/>
      <geometry>
        <box size="0.2286 0.0254 0.001"/>
      </geometry>
    </collision>
  </link>
  <joint name="pod_bin_3e_pod_bin_3e_bottom" type="fixed">
    <parent link="pod_bin_3e"/>
    <child link="pod_bin_3e_bottom"/>
  </joint>
  <joint name="pod_bin_3e_pod_bin_3e_left" type="fixed">
    <origin rpy="1.5707963267948966 0 1.5707963267948966 " xyz="0 0 0"/>
    <parent link="pod_bin_3e"/>
    <child link="pod_bin_3e_left"/>
  </joint>
  <joint name="pod_bin_3e_pod_bin_3e_right" type="fixed">
    <origin rpy="1.5707963267948966 0 1.5707963267948966 " xyz="0.2286 0 0"/>
    <parent link="pod_bin_3e"/>
    <child link="pod_bin_3e_right"/>
  </joint>
  <joint name="pod_bin_3e_pod_bin_3e_top" type="fixed">
    <origin rpy="0 0 0" xyz="0 0 0.1143"/>
    <parent link="pod_bin_3e"/>
    <child link="pod_bin_3e_top"/>
  </joint>
  <joint name="pod_bin_3e_pod_bin_3e_back" type="fixed">
    <origin rpy="1.5707963267948966 0 0" xyz="0 0.15239999999999998 0"/>
    <parent link="pod_bin_3e"/>
    <child link="pod_bin_3e_back"/>
  </joint>
  <joint name="pod_bin_3e_pod_bin_3e_flap" type="fixed">
    <origin rpy="1.5707963267948966 0 0" xyz="0 0 0"/>
    <parent link="pod_bin_3e"/>
    <child link="pod_bin_3e_flap"/>
  </joint>
  <joint name="pod_shelf_e_pod_bin_3e_joint" type="fixed">
    <origin xyz="0.4572 0 0"/>
    <parent link="pod_shelf_e"/>
    <child link="pod_bin_3e"/>
  </joint>
  <link name="pod_bin_4e"/>
  <link name="pod_bin_4e_bottom">
    <inertial>
      <mass value="0.01"/>
      <inertia ixx="0.0002835" ixy="0.0" ixz="0.0" iyy="0.0002835" iyz="0.0" izz="0.000324"/>
    </inertial>
    <visual>
      <origin xyz="0.1143 0.07619999999999999 -0.0005"/>
      <geometry>
        <box size="0.2286 0.15239999999999998 0.001"/>
      </geometry>
      <material name="yellow_fabric"/>
    </visual>
    <collision>
      <origin xyz="0.1143 0.07619999999999999 -0.0005"/>
      <geometry>
        <box size="0.2286 0.15239999999999998 0.001"/>
      </geometry>
    </collision>
  </link>
  <link name="pod_bin_4e_left">
    <inertial>
      <mass value="0.01"/>
      <inertia ixx="0.0002835" ixy="0.0" ixz="0.0" iyy="0.0002835" iyz="0.0" izz="0.000324"/>
    </inertial>
    <visual>
      <origin xyz="0.07619999999999999 0.05715 -0.0005"/>
      <geometry>
        <box size="0.15239999999999998 0.1143 0.001"/>
      </geometry>
      <material name="yellow_fabric"/>
    </visual>
    <collision>
      <origin xyz="0.07619999999999999 0.05715 -0.0005"/>
      <geometry>
        <box size="0.15239999999999998 0.1143 0.001"/>
      </geometry>
    </collision>
  </link>
  <link name="pod_bin_4e_right">
    <inertial>
      <mass value="0.01"/>
      <inertia ixx="0.0002835" ixy="0.0" ixz="0.0" iyy="0.0002835" iyz="0.0" izz="0.000324"/>
    </inertial>
    <visual>
      <origin xyz="0.07619999999999999 0.05715 -0.0005"/>
      <geometry>
        <box size="0.15239999999999998 0.1143 0.001"/>
      </geometry>
      <material name="yellow_fabric"/>
    </visual>
    <collision>
      <origin xyz="0.07619999999999999 0.05715 -0.0005"/>
      <geometry>
        <box size="0.15239999999999998 0.1143 0.001"/>
      </geometry>
    </collision>
  </link>
  <link name="pod_bin_4e_top">
    <inertial>
      <mass value="0.01"/>
      <inertia ixx="0.0002835" ixy="0.0" ixz="0.0" iyy="0.0002835" iyz="0.0" izz="0.000324"/>
    </inertial>
    <visual>
      <origin xyz="0.1143 0.07619999999999999 -0.0005"/>
      <geometry>
        <box size="0.2286 0.15239999999999998 0.001"/>
      </geometry>
      <material name="yellow_fabric"/>
    </visual>
    <collision>
      <origin xyz="0.1143 0.07619999999999999 -0.0005"/>
      <geometry>
        <box size="0.2286 0.15239999999999998 0.001"/>
      </geometry>
    </collision>
  </link>
  <link name="pod_bin_4e_back">
    <inertial>
      <mass value="0.01"/>
      <inertia ixx="0.0002835" ixy="0.0" ixz="0.0" iyy="0.0002835" iyz="0.0" izz="0.000324"/>
    </inertial>
    <visual>
      <origin xyz="0.1143 0.05715 -0.0005"/>
      <geometry>
        <box size="0.2286 0.1143 0.001"/>
      </geometry>
      <material name="yellow_fabric"/>
    </visual>
    <collision>
      <origin xyz="0.1143 0.05715 -0.0005"/>
      <geometry>
        <box size="0.2286 0.1143 0.001"/>
      </geometry>
    </collision>
  </link>
  <link name="pod_bin_4e_flap">
    <inertial>
      <mass value="0.01"/>
      <inertia ixx="0.0002835" ixy="0.0" ixz="0.0" iyy="0.0002835" iyz="0.0" izz="0.000324"/>
    </inertial>
    <visual>
      <origin xyz="0.1143 0.0127 -0.0005"/>
      <geometry>
        <box size="0.2286 0.0254 0.001"/>
      </geometry>
      <material name="yellow_fabric"/>
    </visual>
    <collision>
      <origin xyz="0.1143 0.0127 -0.0005"/>
      <geometry>
        <box size="0.2286 0.0254 0.001"/>
      </geometry>
    </collision>
  </link>
  <joint name="pod_bin_4e_pod_bin_4e_bottom" type="fixed">
    <parent link="pod_bin_4e"/>
    <child link="pod_bin_4e_bottom"/>
  </joint>
  <joint name="pod_bin_4e_pod_bin_4e_left" type="fixed">
    <origin rpy="1.5707963267948966 0 1.5707963267948966 " xyz="0 0 0"/>
    <parent link="pod_bin_4e"/>
    <child link="pod_bin_4e_left"/>
  </joint>
  <joint name="pod_bin_4e_pod_bin_4e_right" type="fixed">
    <origin rpy="1.5707963267948966 0 1.5707963267948966 " xyz="0.2286 0 0"/>
    <parent link="pod_bin_4e"/>
    <child link="pod_bin_4e_right"/>
  </joint>
  <joint name="pod_bin_4e_pod_bin_4e_top" type="fixed">
    <origin rpy="0 0 0" xyz="0 0 0.1143"/>
    <parent link="pod_bin_4e"/>
    <child link="pod_bin_4e_top"/>
  </joint>
  <joint name="pod_bin_4e_pod_bin_4e_back" type="fixed">
    <origin rpy="1.5707963267948966 0 0" xyz="0 0.15239999999999998 0"/>
    <parent link="pod_bin_4e"/>
    <child link="pod_bin_4e_back"/>
  </joint>
  <joint name="pod_bin_4e_pod_bin_4e_flap" type="fixed">
    <origin rpy="1.5707963267948966 0 0" xyz="0 0 0"/>
    <parent link="pod_bin_4e"/>
    <child link="pod_bin_4e_flap"/>
  </joint>
  <joint name="pod_shelf_e_pod_bin_4e_joint" type="fixed">
    <origin xyz="0.6858 0 0"/>
    <parent link="pod_shelf_e"/>
    <child link="pod_bin_4e"/>
  </joint>
  <joint name="pod_fabric_base_pod_shelf_e_joint" type="fixed">
    <origin xyz="0 0 0.70485"/>
    <parent link="pod_fabric_base"/>
    <child link="pod_shelf_e"/>
  </joint>
  <link name="pod_shelf_f"/>
  <link name="pod_bin_1f"/>
  <link name="pod_bin_1f_bottom">
    <inertial>
      <mass value="0.01"/>
      <inertia ixx="0.0002835" ixy="0.0" ixz="0.0" iyy="0.0002835" iyz="0.0" izz="0.000324"/>
    </inertial>
    <visual>
      <origin xyz="0.1143 0.07619999999999999 -0.0005"/>
      <geometry>
        <box size="0.2286 0.15239999999999998 0.001"/>
      </geometry>
      <material name="yellow_fabric"/>
    </visual>
    <collision>
      <origin xyz="0.1143 0.07619999999999999 -0.0005"/>
      <geometry>
        <box size="0.2286 0.15239999999999998 0.001"/>
      </geometry>
    </collision>
  </link>
  <link name="pod_bin_1f_left">
    <inertial>
      <mass value="0.01"/>
      <inertia ixx="0.0002835" ixy="0.0" ixz="0.0" iyy="0.0002835" iyz="0.0" izz="0.000324"/>
    </inertial>
    <visual>
      <origin xyz="0.07619999999999999 0.111125 -0.0005"/>
      <geometry>
        <box size="0.15239999999999998 0.22225 0.001"/>
      </geometry>
      <material name="yellow_fabric"/>
    </visual>
    <collision>
      <origin xyz="0.07619999999999999 0.111125 -0.0005"/>
      <geometry>
        <box size="0.15239999999999998 0.22225 0.001"/>
      </geometry>
    </collision>
  </link>
  <link name="pod_bin_1f_right">
    <inertial>
      <mass value="0.01"/>
      <inertia ixx="0.0002835" ixy="0.0" ixz="0.0" iyy="0.0002835" iyz="0.0" izz="0.000324"/>
    </inertial>
    <visual>
      <origin xyz="0.07619999999999999 0.111125 -0.0005"/>
      <geometry>
        <box size="0.15239999999999998 0.22225 0.001"/>
      </geometry>
      <material name="yellow_fabric"/>
    </visual>
    <collision>
      <origin xyz="0.07619999999999999 0.111125 -0.0005"/>
      <geometry>
        <box size="0.15239999999999998 0.22225 0.001"/>
      </geometry>
    </collision>
  </link>
  <link name="pod_bin_1f_top">
    <inertial>
      <mass value="0.01"/>
      <inertia ixx="0.0002835" ixy="0.0" ixz="0.0" iyy="0.0002835" iyz="0.0" izz="0.000324"/>
    </inertial>
    <visual>
      <origin xyz="0.1143 0.07619999999999999 -0.0005"/>
      <geometry>
        <box size="0.2286 0.15239999999999998 0.001"/>
      </geometry>
      <material name="yellow_fabric"/>
    </visual>
    <collision>
      <origin xyz="0.1143 0.07619999999999999 -0.0005"/>
      <geometry>
        <box size="0.2286 0.15239999999999998 0.001"/>
      </geometry>
    </collision>
  </link>
  <link name="pod_bin_1f_back">
    <inertial>
      <mass value="0.01"/>
      <inertia ixx="0.0002835" ixy="0.0" ixz="0.0" iyy="0.0002835" iyz="0.0" izz="0.000324"/>
    </inertial>
    <visual>
      <origin xyz="0.1143 0.111125 -0.0005"/>
      <geometry>
        <box size="0.2286 0.22225 0.001"/>
      </geometry>
      <material name="yellow_fabric"/>
    </visual>
    <collision>
      <origin xyz="0.1143 0.111125 -0.0005"/>
      <geometry>
        <box size="0.2286 0.22225 0.001"/>
      </geometry>
    </collision>
  </link>
  <link name="pod_bin_1f_flap">
    <inertial>
      <mass value="0.01"/>
      <inertia ixx="0.0002835" ixy="0.0" ixz="0.0" iyy="0.0002835" iyz="0.0" izz="0.000324"/>
    </inertial>
    <visual>
      <origin xyz="0.1143 0.0127 -0.0005"/>
      <geometry>
        <box size="0.2286 0.0254 0.001"/>
      </geometry>
      <material name="yellow_fabric"/>
    </visual>
    <collision>
      <origin xyz="0.1143 0.0127 -0.0005"/>
      <geometry>
        <box size="0.2286 0.0254 0.001"/>
      </geometry>
    </collision>
  </link>
  <joint name="pod_bin_1f_pod_bin_1f_bottom" type="fixed">
    <parent link="pod_bin_1f"/>
    <child link="pod_bin_1f_bottom"/>
  </joint>
  <joint name="pod_bin_1f_pod_bin_1f_left" type="fixed">
    <origin rpy="1.5707963267948966 0 1.5707963267948966 " xyz="0 0 0"/>
    <parent link="pod_bin_1f"/>
    <child link="pod_bin_1f_left"/>
  </joint>
  <joint name="pod_bin_1f_pod_bin_1f_right" type="fixed">
    <origin rpy="1.5707963267948966 0 1.5707963267948966 " xyz="0.2286 0 0"/>
    <parent link="pod_bin_1f"/>
    <child link="pod_bin_1f_right"/>
  </joint>
  <joint name="pod_bin_1f_pod_bin_1f_top" type="fixed">
    <origin rpy="0 0 0" xyz="0 0 0.22225"/>
    <parent link="pod_bin_1f"/>
    <child link="pod_bin_1f_top"/>
  </joint>
  <joint name="pod_bin_1f_pod_bin_1f_back" type="fixed">
    <origin rpy="1.5707963267948966 0 0" xyz="0 0.15239999999999998 0"/>
    <parent link="pod_bin_1f"/>
    <child link="pod_bin_1f_back"/>
  </joint>
  <joint name="pod_bin_1f_pod_bin_1f_flap" type="fixed">
    <origin rpy="1.5707963267948966 0 0" xyz="0 0 0"/>
    <parent link="pod_bin_1f"/>
    <child link="pod_bin_1f_flap"/>
  </joint>
  <joint name="pod_shelf_f_pod_bin_1f_joint" type="fixed">
    <origin xyz="0.0 0 0"/>
    <parent link="pod_shelf_f"/>
    <child link="pod_bin_1f"/>
  </joint>
  <link name="pod_bin_2f"/>
  <link name="pod_bin_2f_bottom">
    <inertial>
      <mass value="0.01"/>
      <inertia ixx="0.0002835" ixy="0.0" ixz="0.0" iyy="0.0002835" iyz="0.0" izz="0.000324"/>
    </inertial>
    <visual>
      <origin xyz="0.1143 0.07619999999999999 -0.0005"/>
      <geometry>
        <box size="0.2286 0.15239999999999998 0.001"/>
      </geometry>
      <material name="yellow_fabric"/>
    </visual>
    <collision>
      <origin xyz="0.1143 0.07619999999999999 -0.0005"/>
      <geometry>
        <box size="0.2286 0.15239999999999998 0.001"/>
      </geometry>
    </collision>
  </link>
  <link name="pod_bin_2f_left">
    <inertial>
      <mass value="0.01"/>
      <inertia ixx="0.0002835" ixy="0.0" ixz="0.0" iyy="0.0002835" iyz="0.0" izz="0.000324"/>
    </inertial>
    <visual>
      <origin xyz="0.07619999999999999 0.111125 -0.0005"/>
      <geometry>
        <box size="0.15239999999999998 0.22225 0.001"/>
      </geometry>
      <material name="yellow_fabric"/>
    </visual>
    <collision>
      <origin xyz="0.07619999999999999 0.111125 -0.0005"/>
      <geometry>
        <box size="0.15239999999999998 0.22225 0.001"/>
      </geometry>
    </collision>
  </link>
  <link name="pod_bin_2f_right">
    <inertial>
      <mass value="0.01"/>
      <inertia ixx="0.0002835" ixy="0.0" ixz="0.0" iyy="0.0002835" iyz="0.0" izz="0.000324"/>
    </inertial>
    <visual>
      <origin xyz="0.07619999999999999 0.111125 -0.0005"/>
      <geometry>
        <box size="0.15239999999999998 0.22225 0.001"/>
      </geometry>
      <material name="yellow_fabric"/>
    </visual>
    <collision>
      <origin xyz="0.07619999999999999 0.111125 -0.0005"/>
      <geometry>
        <box size="0.15239999999999998 0.22225 0.001"/>
      </geometry>
    </collision>
  </link>
  <link name="pod_bin_2f_top">
    <inertial>
      <mass value="0.01"/>
      <inertia ixx="0.0002835" ixy="0.0" ixz="0.0" iyy="0.0002835" iyz="0.0" izz="0.000324"/>
    </inertial>
    <visual>
      <origin xyz="0.1143 0.07619999999999999 -0.0005"/>
      <geometry>
        <box size="0.2286 0.15239999999999998 0.001"/>
      </geometry>
      <material name="yellow_fabric"/>
    </visual>
    <collision>
      <origin xyz="0.1143 0.07619999999999999 -0.0005"/>
      <geometry>
        <box size="0.2286 0.15239999999999998 0.001"/>
      </geometry>
    </collision>
  </link>
  <link name="pod_bin_2f_back">
    <inertial>
      <mass value="0.01"/>
      <inertia ixx="0.0002835" ixy="0.0" ixz="0.0" iyy="0.0002835" iyz="0.0" izz="0.000324"/>
    </inertial>
    <visual>
      <origin xyz="0.1143 0.111125 -0.0005"/>
      <geometry>
        <box size="0.2286 0.22225 0.001"/>
      </geometry>
      <material name="yellow_fabric"/>
    </visual>
    <collision>
      <origin xyz="0.1143 0.111125 -0.0005"/>
      <geometry>
        <box size="0.2286 0.22225 0.001"/>
      </geometry>
    </collision>
  </link>
  <link name="pod_bin_2f_flap">
    <inertial>
      <mass value="0.01"/>
      <inertia ixx="0.0002835" ixy="0.0" ixz="0.0" iyy="0.0002835" iyz="0.0" izz="0.000324"/>
    </inertial>
    <visual>
      <origin xyz="0.1143 0.0127 -0.0005"/>
      <geometry>
        <box size="0.2286 0.0254 0.001"/>
      </geometry>
      <material name="yellow_fabric"/>
    </visual>
    <collision>
      <origin xyz="0.1143 0.0127 -0.0005"/>
      <geometry>
        <box size="0.2286 0.0254 0.001"/>
      </geometry>
    </collision>
  </link>
  <joint name="pod_bin_2f_pod_bin_2f_bottom" type="fixed">
    <parent link="pod_bin_2f"/>
    <child link="pod_bin_2f_bottom"/>
  </joint>
  <joint name="pod_bin_2f_pod_bin_2f_left" type="fixed">
    <origin rpy="1.5707963267948966 0 1.5707963267948966 " xyz="0 0 0"/>
    <parent link="pod_bin_2f"/>
    <child link="pod_bin_2f_left"/>
  </joint>
  <joint name="pod_bin_2f_pod_bin_2f_right" type="fixed">
    <origin rpy="1.5707963267948966 0 1.5707963267948966 " xyz="0.2286 0 0"/>
    <parent link="pod_bin_2f"/>
    <child link="pod_bin_2f_right"/>
  </joint>
  <joint name="pod_bin_2f_pod_bin_2f_top" type="fixed">
    <origin rpy="0 0 0" xyz="0 0 0.22225"/>
    <parent link="pod_bin_2f"/>
    <child link="pod_bin_2f_top"/>
  </joint>
  <joint name="pod_bin_2f_pod_bin_2f_back" type="fixed">
    <origin rpy="1.5707963267948966 0 0" xyz="0 0.15239999999999998 0"/>
    <parent link="pod_bin_2f"/>
    <child link="pod_bin_2f_back"/>
  </joint>
  <joint name="pod_bin_2f_pod_bin_2f_flap" type="fixed">
    <origin rpy="1.5707963267948966 0 0" xyz="0 0 0"/>
    <parent link="pod_bin_2f"/>
    <child link="pod_bin_2f_flap"/>
  </joint>
  <joint name="pod_shelf_f_pod_bin_2f_joint" type="fixed">
    <origin xyz="0.2286 0 0"/>
    <parent link="pod_shelf_f"/>
    <child link="pod_bin_2f"/>
  </joint>
  <link name="pod_bin_3f"/>
  <link name="pod_bin_3f_bottom">
    <inertial>
      <mass value="0.01"/>
      <inertia ixx="0.0002835" ixy="0.0" ixz="0.0" iyy="0.0002835" iyz="0.0" izz="0.000324"/>
    </inertial>
    <visual>
      <origin xyz="0.1143 0.07619999999999999 -0.0005"/>
      <geometry>
        <box size="0.2286 0.15239999999999998 0.001"/>
      </geometry>
      <material name="yellow_fabric"/>
    </visual>
    <collision>
      <origin xyz="0.1143 0.07619999999999999 -0.0005"/>
      <geometry>
        <box size="0.2286 0.15239999999999998 0.001"/>
      </geometry>
    </collision>
  </link>
  <link name="pod_bin_3f_left">
    <inertial>
      <mass value="0.01"/>
      <inertia ixx="0.0002835" ixy="0.0" ixz="0.0" iyy="0.0002835" iyz="0.0" izz="0.000324"/>
    </inertial>
    <visual>
      <origin xyz="0.07619999999999999 0.111125 -0.0005"/>
      <geometry>
        <box size="0.15239999999999998 0.22225 0.001"/>
      </geometry>
      <material name="yellow_fabric"/>
    </visual>
    <collision>
      <origin xyz="0.07619999999999999 0.111125 -0.0005"/>
      <geometry>
        <box size="0.15239999999999998 0.22225 0.001"/>
      </geometry>
    </collision>
  </link>
  <link name="pod_bin_3f_right">
    <inertial>
      <mass value="0.01"/>
      <inertia ixx="0.0002835" ixy="0.0" ixz="0.0" iyy="0.0002835" iyz="0.0" izz="0.000324"/>
    </inertial>
    <visual>
      <origin xyz="0.07619999999999999 0.111125 -0.0005"/>
      <geometry>
        <box size="0.15239999999999998 0.22225 0.001"/>
      </geometry>
      <material name="yellow_fabric"/>
    </visual>
    <collision>
      <origin xyz="0.07619999999999999 0.111125 -0.0005"/>
      <geometry>
        <box size="0.15239999999999998 0.22225 0.001"/>
      </geometry>
    </collision>
  </link>
  <link name="pod_bin_3f_top">
    <inertial>
      <mass value="0.01"/>
      <inertia ixx="0.0002835" ixy="0.0" ixz="0.0" iyy="0.0002835" iyz="0.0" izz="0.000324"/>
    </inertial>
    <visual>
      <origin xyz="0.1143 0.07619999999999999 -0.0005"/>
      <geometry>
        <box size="0.2286 0.15239999999999998 0.001"/>
      </geometry>
      <material name="yellow_fabric"/>
    </visual>
    <collision>
      <origin xyz="0.1143 0.07619999999999999 -0.0005"/>
      <geometry>
        <box size="0.2286 0.15239999999999998 0.001"/>
      </geometry>
    </collision>
  </link>
  <link name="pod_bin_3f_back">
    <inertial>
      <mass value="0.01"/>
      <inertia ixx="0.0002835" ixy="0.0" ixz="0.0" iyy="0.0002835" iyz="0.0" izz="0.000324"/>
    </inertial>
    <visual>
      <origin xyz="0.1143 0.111125 -0.0005"/>
      <geometry>
        <box size="0.2286 0.22225 0.001"/>
      </geometry>
      <material name="yellow_fabric"/>
    </visual>
    <collision>
      <origin xyz="0.1143 0.111125 -0.0005"/>
      <geometry>
        <box size="0.2286 0.22225 0.001"/>
      </geometry>
    </collision>
  </link>
  <link name="pod_bin_3f_flap">
    <inertial>
      <mass value="0.01"/>
      <inertia ixx="0.0002835" ixy="0.0" ixz="0.0" iyy="0.0002835" iyz="0.0" izz="0.000324"/>
    </inertial>
    <visual>
      <origin xyz="0.1143 0.0127 -0.0005"/>
      <geometry>
        <box size="0.2286 0.0254 0.001"/>
      </geometry>
      <material name="yellow_fabric"/>
    </visual>
    <collision>
      <origin xyz="0.1143 0.0127 -0.0005"/>
      <geometry>
        <box size="0.2286 0.0254 0.001"/>
      </geometry>
    </collision>
  </link>
  <joint name="pod_bin_3f_pod_bin_3f_bottom" type="fixed">
    <parent link="pod_bin_3f"/>
    <child link="pod_bin_3f_bottom"/>
  </joint>
  <joint name="pod_bin_3f_pod_bin_3f_left" type="fixed">
    <origin rpy="1.5707963267948966 0 1.5707963267948966 " xyz="0 0 0"/>
    <parent link="pod_bin_3f"/>
    <child link="pod_bin_3f_left"/>
  </joint>
  <joint name="pod_bin_3f_pod_bin_3f_right" type="fixed">
    <origin rpy="1.5707963267948966 0 1.5707963267948966 " xyz="0.2286 0 0"/>
    <parent link="pod_bin_3f"/>
    <child link="pod_bin_3f_right"/>
  </joint>
  <joint name="pod_bin_3f_pod_bin_3f_top" type="fixed">
    <origin rpy="0 0 0" xyz="0 0 0.22225"/>
    <parent link="pod_bin_3f"/>
    <child link="pod_bin_3f_top"/>
  </joint>
  <joint name="pod_bin_3f_pod_bin_3f_back" type="fixed">
    <origin rpy="1.5707963267948966 0 0" xyz="0 0.15239999999999998 0"/>
    <parent link="pod_bin_3f"/>
    <child link="pod_bin_3f_back"/>
  </joint>
  <joint name="pod_bin_3f_pod_bin_3f_flap" type="fixed">
    <origin rpy="1.5707963267948966 0 0" xyz="0 0 0"/>
    <parent link="pod_bin_3f"/>
    <child link="pod_bin_3f_flap"/>
  </joint>
  <joint name="pod_shelf_f_pod_bin_3f_joint" type="fixed">
    <origin xyz="0.4572 0 0"/>
    <parent link="pod_shelf_f"/>
    <child link="pod_bin_3f"/>
  </joint>
  <link name="pod_bin_4f"/>
  <link name="pod_bin_4f_bottom">
    <inertial>
      <mass value="0.01"/>
      <inertia ixx="0.0002835" ixy="0.0" ixz="0.0" iyy="0.0002835" iyz="0.0" izz="0.000324"/>
    </inertial>
    <visual>
      <origin xyz="0.1143 0.07619999999999999 -0.0005"/>
      <geometry>
        <box size="0.2286 0.15239999999999998 0.001"/>
      </geometry>
      <material name="yellow_fabric"/>
    </visual>
    <collision>
      <origin xyz="0.1143 0.07619999999999999 -0.0005"/>
      <geometry>
        <box size="0.2286 0.15239999999999998 0.001"/>
      </geometry>
    </collision>
  </link>
  <link name="pod_bin_4f_left">
    <inertial>
      <mass value="0.01"/>
      <inertia ixx="0.0002835" ixy="0.0" ixz="0.0" iyy="0.0002835" iyz="0.0" izz="0.000324"/>
    </inertial>
    <visual>
      <origin xyz="0.07619999999999999 0.111125 -0.0005"/>
      <geometry>
        <box size="0.15239999999999998 0.22225 0.001"/>
      </geometry>
      <material name="yellow_fabric"/>
    </visual>
    <collision>
      <origin xyz="0.07619999999999999 0.111125 -0.0005"/>
      <geometry>
        <box size="0.15239999999999998 0.22225 0.001"/>
      </geometry>
    </collision>
  </link>
  <link name="pod_bin_4f_right">
    <inertial>
      <mass value="0.01"/>
      <inertia ixx="0.0002835" ixy="0.0" ixz="0.0" iyy="0.0002835" iyz="0.0" izz="0.000324"/>
    </inertial>
    <visual>
      <origin xyz="0.07619999999999999 0.111125 -0.0005"/>
      <geometry>
        <box size="0.15239999999999998 0.22225 0.001"/>
      </geometry>
      <material name="yellow_fabric"/>
    </visual>
    <collision>
      <origin xyz="0.07619999999999999 0.111125 -0.0005"/>
      <geometry>
        <box size="0.15239999999999998 0.22225 0.001"/>
      </geometry>
    </collision>
  </link>
  <link name="pod_bin_4f_top">
    <inertial>
      <mass value="0.01"/>
      <inertia ixx="0.0002835" ixy="0.0" ixz="0.0" iyy="0.0002835" iyz="0.0" izz="0.000324"/>
    </inertial>
    <visual>
      <origin xyz="0.1143 0.07619999999999999 -0.0005"/>
      <geometry>
        <box size="0.2286 0.15239999999999998 0.001"/>
      </geometry>
      <material name="yellow_fabric"/>
    </visual>
    <collision>
      <origin xyz="0.1143 0.07619999999999999 -0.0005"/>
      <geometry>
        <box size="0.2286 0.15239999999999998 0.001"/>
      </geometry>
    </collision>
  </link>
  <link name="pod_bin_4f_back">
    <inertial>
      <mass value="0.01"/>
      <inertia ixx="0.0002835" ixy="0.0" ixz="0.0" iyy="0.0002835" iyz="0.0" izz="0.000324"/>
    </inertial>
    <visual>
      <origin xyz="0.1143 0.111125 -0.0005"/>
      <geometry>
        <box size="0.2286 0.22225 0.001"/>
      </geometry>
      <material name="yellow_fabric"/>
    </visual>
    <collision>
      <origin xyz="0.1143 0.111125 -0.0005"/>
      <geometry>
        <box size="0.2286 0.22225 0.001"/>
      </geometry>
    </collision>
  </link>
  <link name="pod_bin_4f_flap">
    <inertial>
      <mass value="0.01"/>
      <inertia ixx="0.0002835" ixy="0.0" ixz="0.0" iyy="0.0002835" iyz="0.0" izz="0.000324"/>
    </inertial>
    <visual>
      <origin xyz="0.1143 0.0127 -0.0005"/>
      <geometry>
        <box size="0.2286 0.0254 0.001"/>
      </geometry>
      <material name="yellow_fabric"/>
    </visual>
    <collision>
      <origin xyz="0.1143 0.0127 -0.0005"/>
      <geometry>
        <box size="0.2286 0.0254 0.001"/>
      </geometry>
    </collision>
  </link>
  <joint name="pod_bin_4f_pod_bin_4f_bottom" type="fixed">
    <parent link="pod_bin_4f"/>
    <child link="pod_bin_4f_bottom"/>
  </joint>
  <joint name="pod_bin_4f_pod_bin_4f_left" type="fixed">
    <origin rpy="1.5707963267948966 0 1.5707963267948966 " xyz="0 0 0"/>
    <parent link="pod_bin_4f"/>
    <child link="pod_bin_4f_left"/>
  </joint>
  <joint name="pod_bin_4f_pod_bin_4f_right" type="fixed">
    <origin rpy="1.5707963267948966 0 1.5707963267948966 " xyz="0.2286 0 0"/>
    <parent link="pod_bin_4f"/>
    <child link="pod_bin_4f_right"/>
  </joint>
  <joint name="pod_bin_4f_pod_bin_4f_top" type="fixed">
    <origin rpy="0 0 0" xyz="0 0 0.22225"/>
    <parent link="pod_bin_4f"/>
    <child link="pod_bin_4f_top"/>
  </joint>
  <joint name="pod_bin_4f_pod_bin_4f_back" type="fixed">
    <origin rpy="1.5707963267948966 0 0" xyz="0 0.15239999999999998 0"/>
    <parent link="pod_bin_4f"/>
    <child link="pod_bin_4f_back"/>
  </joint>
  <joint name="pod_bin_4f_pod_bin_4f_flap" type="fixed">
    <origin rpy="1.5707963267948966 0 0" xyz="0 0 0"/>
    <parent link="pod_bin_4f"/>
    <child link="pod_bin_4f_flap"/>
  </joint>
  <joint name="pod_shelf_f_pod_bin_4f_joint" type="fixed">
    <origin xyz="0.6858 0 0"/>
    <parent link="pod_shelf_f"/>
    <child link="pod_bin_4f"/>
  </joint>
  <joint name="pod_fabric_base_pod_shelf_f_joint" type="fixed">
    <origin xyz="0 0 0.8191499999999999"/>
    <parent link="pod_fabric_base"/>
    <child link="pod_shelf_f"/>
  </joint>
  <link name="pod_shelf_g"/>
  <link name="pod_bin_1g"/>
  <link name="pod_bin_1g_bottom">
    <inertial>
      <mass value="0.01"/>
      <inertia ixx="0.0002835" ixy="0.0" ixz="0.0" iyy="0.0002835" iyz="0.0" izz="0.000324"/>
    </inertial>
    <visual>
      <origin xyz="0.1143 0.07619999999999999 -0.0005"/>
      <geometry>
        <box size="0.2286 0.15239999999999998 0.001"/>
      </geometry>
      <material name="yellow_fabric"/>
    </visual>
    <collision>
      <origin xyz="0.1143 0.07619999999999999 -0.0005"/>
      <geometry>
        <box size="0.2286 0.15239999999999998 0.001"/>
      </geometry>
    </collision>
  </link>
  <link name="pod_bin_1g_left">
    <inertial>
      <mass value="0.01"/>
      <inertia ixx="0.0002835" ixy="0.0" ixz="0.0" iyy="0.0002835" iyz="0.0" izz="0.000324"/>
    </inertial>
    <visual>
      <origin xyz="0.07619999999999999 0.0635 -0.0005"/>
      <geometry>
        <box size="0.15239999999999998 0.127 0.001"/>
      </geometry>
      <material name="yellow_fabric"/>
    </visual>
    <collision>
      <origin xyz="0.07619999999999999 0.0635 -0.0005"/>
      <geometry>
        <box size="0.15239999999999998 0.127 0.001"/>
      </geometry>
    </collision>
  </link>
  <link name="pod_bin_1g_right">
    <inertial>
      <mass value="0.01"/>
      <inertia ixx="0.0002835" ixy="0.0" ixz="0.0" iyy="0.0002835" iyz="0.0" izz="0.000324"/>
    </inertial>
    <visual>
      <origin xyz="0.07619999999999999 0.0635 -0.0005"/>
      <geometry>
        <box size="0.15239999999999998 0.127 0.001"/>
      </geometry>
      <material name="yellow_fabric"/>
    </visual>
    <collision>
      <origin xyz="0.07619999999999999 0.0635 -0.0005"/>
      <geometry>
        <box size="0.15239999999999998 0.127 0.001"/>
      </geometry>
    </collision>
  </link>
  <link name="pod_bin_1g_top">
    <inertial>
      <mass value="0.01"/>
      <inertia ixx="0.0002835" ixy="0.0" ixz="0.0" iyy="0.0002835" iyz="0.0" izz="0.000324"/>
    </inertial>
    <visual>
      <origin xyz="0.1143 0.07619999999999999 -0.0005"/>
      <geometry>
        <box size="0.2286 0.15239999999999998 0.001"/>
      </geometry>
      <material name="yellow_fabric"/>
    </visual>
    <collision>
      <origin xyz="0.1143 0.07619999999999999 -0.0005"/>
      <geometry>
        <box size="0.2286 0.15239999999999998 0.001"/>
      </geometry>
    </collision>
  </link>
  <link name="pod_bin_1g_back">
    <inertial>
      <mass value="0.01"/>
      <inertia ixx="0.0002835" ixy="0.0" ixz="0.0" iyy="0.0002835" iyz="0.0" izz="0.000324"/>
    </inertial>
    <visual>
      <origin xyz="0.1143 0.0635 -0.0005"/>
      <geometry>
        <box size="0.2286 0.127 0.001"/>
      </geometry>
      <material name="yellow_fabric"/>
    </visual>
    <collision>
      <origin xyz="0.1143 0.0635 -0.0005"/>
      <geometry>
        <box size="0.2286 0.127 0.001"/>
      </geometry>
    </collision>
  </link>
  <link name="pod_bin_1g_flap">
    <inertial>
      <mass value="0.01"/>
      <inertia ixx="0.0002835" ixy="0.0" ixz="0.0" iyy="0.0002835" iyz="0.0" izz="0.000324"/>
    </inertial>
    <visual>
      <origin xyz="0.1143 0.0127 -0.0005"/>
      <geometry>
        <box size="0.2286 0.0254 0.001"/>
      </geometry>
      <material name="yellow_fabric"/>
    </visual>
    <collision>
      <origin xyz="0.1143 0.0127 -0.0005"/>
      <geometry>
        <box size="0.2286 0.0254 0.001"/>
      </geometry>
    </collision>
  </link>
  <joint name="pod_bin_1g_pod_bin_1g_bottom" type="fixed">
    <parent link="pod_bin_1g"/>
    <child link="pod_bin_1g_bottom"/>
  </joint>
  <joint name="pod_bin_1g_pod_bin_1g_left" type="fixed">
    <origin rpy="1.5707963267948966 0 1.5707963267948966 " xyz="0 0 0"/>
    <parent link="pod_bin_1g"/>
    <child link="pod_bin_1g_left"/>
  </joint>
  <joint name="pod_bin_1g_pod_bin_1g_right" type="fixed">
    <origin rpy="1.5707963267948966 0 1.5707963267948966 " xyz="0.2286 0 0"/>
    <parent link="pod_bin_1g"/>
    <child link="pod_bin_1g_right"/>
  </joint>
  <joint name="pod_bin_1g_pod_bin_1g_top" type="fixed">
    <origin rpy="0 0 0" xyz="0 0 0.127"/>
    <parent link="pod_bin_1g"/>
    <child link="pod_bin_1g_top"/>
  </joint>
  <joint name="pod_bin_1g_pod_bin_1g_back" type="fixed">
    <origin rpy="1.5707963267948966 0 0" xyz="0 0.15239999999999998 0"/>
    <parent link="pod_bin_1g"/>
    <child link="pod_bin_1g_back"/>
  </joint>
  <joint name="pod_bin_1g_pod_bin_1g_flap" type="fixed">
    <origin rpy="1.5707963267948966 0 0" xyz="0 0 0"/>
    <parent link="pod_bin_1g"/>
    <child link="pod_bin_1g_flap"/>
  </joint>
  <joint name="pod_shelf_g_pod_bin_1g_joint" type="fixed">
    <origin xyz="0.0 0 0"/>
    <parent link="pod_shelf_g"/>
    <child link="pod_bin_1g"/>
  </joint>
  <link name="pod_bin_2g"/>
  <link name="pod_bin_2g_bottom">
    <inertial>
      <mass value="0.01"/>
      <inertia ixx="0.0002835" ixy="0.0" ixz="0.0" iyy="0.0002835" iyz="0.0" izz="0.000324"/>
    </inertial>
    <visual>
      <origin xyz="0.1143 0.07619999999999999 -0.0005"/>
      <geometry>
        <box size="0.2286 0.15239999999999998 0.001"/>
      </geometry>
      <material name="yellow_fabric"/>
    </visual>
    <collision>
      <origin xyz="0.1143 0.07619999999999999 -0.0005"/>
      <geometry>
        <box size="0.2286 0.15239999999999998 0.001"/>
      </geometry>
    </collision>
  </link>
  <link name="pod_bin_2g_left">
    <inertial>
      <mass value="0.01"/>
      <inertia ixx="0.0002835" ixy="0.0" ixz="0.0" iyy="0.0002835" iyz="0.0" izz="0.000324"/>
    </inertial>
    <visual>
      <origin xyz="0.07619999999999999 0.0635 -0.0005"/>
      <geometry>
        <box size="0.15239999999999998 0.127 0.001"/>
      </geometry>
      <material name="yellow_fabric"/>
    </visual>
    <collision>
      <origin xyz="0.07619999999999999 0.0635 -0.0005"/>
      <geometry>
        <box size="0.15239999999999998 0.127 0.001"/>
      </geometry>
    </collision>
  </link>
  <link name="pod_bin_2g_right">
    <inertial>
      <mass value="0.01"/>
      <inertia ixx="0.0002835" ixy="0.0" ixz="0.0" iyy="0.0002835" iyz="0.0" izz="0.000324"/>
    </inertial>
    <visual>
      <origin xyz="0.07619999999999999 0.0635 -0.0005"/>
      <geometry>
        <box size="0.15239999999999998 0.127 0.001"/>
      </geometry>
      <material name="yellow_fabric"/>
    </visual>
    <collision>
      <origin xyz="0.07619999999999999 0.0635 -0.0005"/>
      <geometry>
        <box size="0.15239999999999998 0.127 0.001"/>
      </geometry>
    </collision>
  </link>
  <link name="pod_bin_2g_top">
    <inertial>
      <mass value="0.01"/>
      <inertia ixx="0.0002835" ixy="0.0" ixz="0.0" iyy="0.0002835" iyz="0.0" izz="0.000324"/>
    </inertial>
    <visual>
      <origin xyz="0.1143 0.07619999999999999 -0.0005"/>
      <geometry>
        <box size="0.2286 0.15239999999999998 0.001"/>
      </geometry>
      <material name="yellow_fabric"/>
    </visual>
    <collision>
      <origin xyz="0.1143 0.07619999999999999 -0.0005"/>
      <geometry>
        <box size="0.2286 0.15239999999999998 0.001"/>
      </geometry>
    </collision>
  </link>
  <link name="pod_bin_2g_back">
    <inertial>
      <mass value="0.01"/>
      <inertia ixx="0.0002835" ixy="0.0" ixz="0.0" iyy="0.0002835" iyz="0.0" izz="0.000324"/>
    </inertial>
    <visual>
      <origin xyz="0.1143 0.0635 -0.0005"/>
      <geometry>
        <box size="0.2286 0.127 0.001"/>
      </geometry>
      <material name="yellow_fabric"/>
    </visual>
    <collision>
      <origin xyz="0.1143 0.0635 -0.0005"/>
      <geometry>
        <box size="0.2286 0.127 0.001"/>
      </geometry>
    </collision>
  </link>
  <link name="pod_bin_2g_flap">
    <inertial>
      <mass value="0.01"/>
      <inertia ixx="0.0002835" ixy="0.0" ixz="0.0" iyy="0.0002835" iyz="0.0" izz="0.000324"/>
    </inertial>
    <visual>
      <origin xyz="0.1143 0.0127 -0.0005"/>
      <geometry>
        <box size="0.2286 0.0254 0.001"/>
      </geometry>
      <material name="yellow_fabric"/>
    </visual>
    <collision>
      <origin xyz="0.1143 0.0127 -0.0005"/>
      <geometry>
        <box size="0.2286 0.0254 0.001"/>
      </geometry>
    </collision>
  </link>
  <joint name="pod_bin_2g_pod_bin_2g_bottom" type="fixed">
    <parent link="pod_bin_2g"/>
    <child link="pod_bin_2g_bottom"/>
  </joint>
  <joint name="pod_bin_2g_pod_bin_2g_left" type="fixed">
    <origin rpy="1.5707963267948966 0 1.5707963267948966 " xyz="0 0 0"/>
    <parent link="pod_bin_2g"/>
    <child link="pod_bin_2g_left"/>
  </joint>
  <joint name="pod_bin_2g_pod_bin_2g_right" type="fixed">
    <origin rpy="1.5707963267948966 0 1.5707963267948966 " xyz="0.2286 0 0"/>
    <parent link="pod_bin_2g"/>
    <child link="pod_bin_2g_right"/>
  </joint>
  <joint name="pod_bin_2g_pod_bin_2g_top" type="fixed">
    <origin rpy="0 0 0" xyz="0 0 0.127"/>
    <parent link="pod_bin_2g"/>
    <child link="pod_bin_2g_top"/>
  </joint>
  <joint name="pod_bin_2g_pod_bin_2g_back" type="fixed">
    <origin rpy="1.5707963267948966 0 0" xyz="0 0.15239999999999998 0"/>
    <parent link="pod_bin_2g"/>
    <child link="pod_bin_2g_back"/>
  </joint>
  <joint name="pod_bin_2g_pod_bin_2g_flap" type="fixed">
    <origin rpy="1.5707963267948966 0 0" xyz="0 0 0"/>
    <parent link="pod_bin_2g"/>
    <child link="pod_bin_2g_flap"/>
  </joint>
  <joint name="pod_shelf_g_pod_bin_2g_joint" type="fixed">
    <origin xyz="0.2286 0 0"/>
    <parent link="pod_shelf_g"/>
    <child link="pod_bin_2g"/>
  </joint>
  <link name="pod_bin_3g"/>
  <link name="pod_bin_3g_bottom">
    <inertial>
      <mass value="0.01"/>
      <inertia ixx="0.0002835" ixy="0.0" ixz="0.0" iyy="0.0002835" iyz="0.0" izz="0.000324"/>
    </inertial>
    <visual>
      <origin xyz="0.1143 0.07619999999999999 -0.0005"/>
      <geometry>
        <box size="0.2286 0.15239999999999998 0.001"/>
      </geometry>
      <material name="yellow_fabric"/>
    </visual>
    <collision>
      <origin xyz="0.1143 0.07619999999999999 -0.0005"/>
      <geometry>
        <box size="0.2286 0.15239999999999998 0.001"/>
      </geometry>
    </collision>
  </link>
  <link name="pod_bin_3g_left">
    <inertial>
      <mass value="0.01"/>
      <inertia ixx="0.0002835" ixy="0.0" ixz="0.0" iyy="0.0002835" iyz="0.0" izz="0.000324"/>
    </inertial>
    <visual>
      <origin xyz="0.07619999999999999 0.0635 -0.0005"/>
      <geometry>
        <box size="0.15239999999999998 0.127 0.001"/>
      </geometry>
      <material name="yellow_fabric"/>
    </visual>
    <collision>
      <origin xyz="0.07619999999999999 0.0635 -0.0005"/>
      <geometry>
        <box size="0.15239999999999998 0.127 0.001"/>
      </geometry>
    </collision>
  </link>
  <link name="pod_bin_3g_right">
    <inertial>
      <mass value="0.01"/>
      <inertia ixx="0.0002835" ixy="0.0" ixz="0.0" iyy="0.0002835" iyz="0.0" izz="0.000324"/>
    </inertial>
    <visual>
      <origin xyz="0.07619999999999999 0.0635 -0.0005"/>
      <geometry>
        <box size="0.15239999999999998 0.127 0.001"/>
      </geometry>
      <material name="yellow_fabric"/>
    </visual>
    <collision>
      <origin xyz="0.07619999999999999 0.0635 -0.0005"/>
      <geometry>
        <box size="0.15239999999999998 0.127 0.001"/>
      </geometry>
    </collision>
  </link>
  <link name="pod_bin_3g_top">
    <inertial>
      <mass value="0.01"/>
      <inertia ixx="0.0002835" ixy="0.0" ixz="0.0" iyy="0.0002835" iyz="0.0" izz="0.000324"/>
    </inertial>
    <visual>
      <origin xyz="0.1143 0.07619999999999999 -0.0005"/>
      <geometry>
        <box size="0.2286 0.15239999999999998 0.001"/>
      </geometry>
      <material name="yellow_fabric"/>
    </visual>
    <collision>
      <origin xyz="0.1143 0.07619999999999999 -0.0005"/>
      <geometry>
        <box size="0.2286 0.15239999999999998 0.001"/>
      </geometry>
    </collision>
  </link>
  <link name="pod_bin_3g_back">
    <inertial>
      <mass value="0.01"/>
      <inertia ixx="0.0002835" ixy="0.0" ixz="0.0" iyy="0.0002835" iyz="0.0" izz="0.000324"/>
    </inertial>
    <visual>
      <origin xyz="0.1143 0.0635 -0.0005"/>
      <geometry>
        <box size="0.2286 0.127 0.001"/>
      </geometry>
      <material name="yellow_fabric"/>
    </visual>
    <collision>
      <origin xyz="0.1143 0.0635 -0.0005"/>
      <geometry>
        <box size="0.2286 0.127 0.001"/>
      </geometry>
    </collision>
  </link>
  <link name="pod_bin_3g_flap">
    <inertial>
      <mass value="0.01"/>
      <inertia ixx="0.0002835" ixy="0.0" ixz="0.0" iyy="0.0002835" iyz="0.0" izz="0.000324"/>
    </inertial>
    <visual>
      <origin xyz="0.1143 0.0127 -0.0005"/>
      <geometry>
        <box size="0.2286 0.0254 0.001"/>
      </geometry>
      <material name="yellow_fabric"/>
    </visual>
    <collision>
      <origin xyz="0.1143 0.0127 -0.0005"/>
      <geometry>
        <box size="0.2286 0.0254 0.001"/>
      </geometry>
    </collision>
  </link>
  <joint name="pod_bin_3g_pod_bin_3g_bottom" type="fixed">
    <parent link="pod_bin_3g"/>
    <child link="pod_bin_3g_bottom"/>
  </joint>
  <joint name="pod_bin_3g_pod_bin_3g_left" type="fixed">
    <origin rpy="1.5707963267948966 0 1.5707963267948966 " xyz="0 0 0"/>
    <parent link="pod_bin_3g"/>
    <child link="pod_bin_3g_left"/>
  </joint>
  <joint name="pod_bin_3g_pod_bin_3g_right" type="fixed">
    <origin rpy="1.5707963267948966 0 1.5707963267948966 " xyz="0.2286 0 0"/>
    <parent link="pod_bin_3g"/>
    <child link="pod_bin_3g_right"/>
  </joint>
  <joint name="pod_bin_3g_pod_bin_3g_top" type="fixed">
    <origin rpy="0 0 0" xyz="0 0 0.127"/>
    <parent link="pod_bin_3g"/>
    <child link="pod_bin_3g_top"/>
  </joint>
  <joint name="pod_bin_3g_pod_bin_3g_back" type="fixed">
    <origin rpy="1.5707963267948966 0 0" xyz="0 0.15239999999999998 0"/>
    <parent link="pod_bin_3g"/>
    <child link="pod_bin_3g_back"/>
  </joint>
  <joint name="pod_bin_3g_pod_bin_3g_flap" type="fixed">
    <origin rpy="1.5707963267948966 0 0" xyz="0 0 0"/>
    <parent link="pod_bin_3g"/>
    <child link="pod_bin_3g_flap"/>
  </joint>
  <joint name="pod_shelf_g_pod_bin_3g_joint" type="fixed">
    <origin xyz="0.4572 0 0"/>
    <parent link="pod_shelf_g"/>
    <child link="pod_bin_3g"/>
  </joint>
  <link name="pod_bin_4g"/>
  <link name="pod_bin_4g_bottom">
    <inertial>
      <mass value="0.01"/>
      <inertia ixx="0.0002835" ixy="0.0" ixz="0.0" iyy="0.0002835" iyz="0.0" izz="0.000324"/>
    </inertial>
    <visual>
      <origin xyz="0.1143 0.07619999999999999 -0.0005"/>
      <geometry>
        <box size="0.2286 0.15239999999999998 0.001"/>
      </geometry>
      <material name="yellow_fabric"/>
    </visual>
    <collision>
      <origin xyz="0.1143 0.07619999999999999 -0.0005"/>
      <geometry>
        <box size="0.2286 0.15239999999999998 0.001"/>
      </geometry>
    </collision>
  </link>
  <link name="pod_bin_4g_left">
    <inertial>
      <mass value="0.01"/>
      <inertia ixx="0.0002835" ixy="0.0" ixz="0.0" iyy="0.0002835" iyz="0.0" izz="0.000324"/>
    </inertial>
    <visual>
      <origin xyz="0.07619999999999999 0.0635 -0.0005"/>
      <geometry>
        <box size="0.15239999999999998 0.127 0.001"/>
      </geometry>
      <material name="yellow_fabric"/>
    </visual>
    <collision>
      <origin xyz="0.07619999999999999 0.0635 -0.0005"/>
      <geometry>
        <box size="0.15239999999999998 0.127 0.001"/>
      </geometry>
    </collision>
  </link>
  <link name="pod_bin_4g_right">
    <inertial>
      <mass value="0.01"/>
      <inertia ixx="0.0002835" ixy="0.0" ixz="0.0" iyy="0.0002835" iyz="0.0" izz="0.000324"/>
    </inertial>
    <visual>
      <origin xyz="0.07619999999999999 0.0635 -0.0005"/>
      <geometry>
        <box size="0.15239999999999998 0.127 0.001"/>
      </geometry>
      <material name="yellow_fabric"/>
    </visual>
    <collision>
      <origin xyz="0.07619999999999999 0.0635 -0.0005"/>
      <geometry>
        <box size="0.15239999999999998 0.127 0.001"/>
      </geometry>
    </collision>
  </link>
  <link name="pod_bin_4g_top">
    <inertial>
      <mass value="0.01"/>
      <inertia ixx="0.0002835" ixy="0.0" ixz="0.0" iyy="0.0002835" iyz="0.0" izz="0.000324"/>
    </inertial>
    <visual>
      <origin xyz="0.1143 0.07619999999999999 -0.0005"/>
      <geometry>
        <box size="0.2286 0.15239999999999998 0.001"/>
      </geometry>
      <material name="yellow_fabric"/>
    </visual>
    <collision>
      <origin xyz="0.1143 0.07619999999999999 -0.0005"/>
      <geometry>
        <box size="0.2286 0.15239999999999998 0.001"/>
      </geometry>
    </collision>
  </link>
  <link name="pod_bin_4g_back">
    <inertial>
      <mass value="0.01"/>
      <inertia ixx="0.0002835" ixy="0.0" ixz="0.0" iyy="0.0002835" iyz="0.0" izz="0.000324"/>
    </inertial>
    <visual>
      <origin xyz="0.1143 0.0635 -0.0005"/>
      <geometry>
        <box size="0.2286 0.127 0.001"/>
      </geometry>
      <material name="yellow_fabric"/>
    </visual>
    <collision>
      <origin xyz="0.1143 0.0635 -0.0005"/>
      <geometry>
        <box size="0.2286 0.127 0.001"/>
      </geometry>
    </collision>
  </link>
  <link name="pod_bin_4g_flap">
    <inertial>
      <mass value="0.01"/>
      <inertia ixx="0.0002835" ixy="0.0" ixz="0.0" iyy="0.0002835" iyz="0.0" izz="0.000324"/>
    </inertial>
    <visual>
      <origin xyz="0.1143 0.0127 -0.0005"/>
      <geometry>
        <box size="0.2286 0.0254 0.001"/>
      </geometry>
      <material name="yellow_fabric"/>
    </visual>
    <collision>
      <origin xyz="0.1143 0.0127 -0.0005"/>
      <geometry>
        <box size="0.2286 0.0254 0.001"/>
      </geometry>
    </collision>
  </link>
  <joint name="pod_bin_4g_pod_bin_4g_bottom" type="fixed">
    <parent link="pod_bin_4g"/>
    <child link="pod_bin_4g_bottom"/>
  </joint>
  <joint name="pod_bin_4g_pod_bin_4g_left" type="fixed">
    <origin rpy="1.5707963267948966 0 1.5707963267948966 " xyz="0 0 0"/>
    <parent link="pod_bin_4g"/>
    <child link="pod_bin_4g_left"/>
  </joint>
  <joint name="pod_bin_4g_pod_bin_4g_right" type="fixed">
    <origin rpy="1.5707963267948966 0 1.5707963267948966 " xyz="0.2286 0 0"/>
    <parent link="pod_bin_4g"/>
    <child link="pod_bin_4g_right"/>
  </joint>
  <joint name="pod_bin_4g_pod_bin_4g_top" type="fixed">
    <origin rpy="0 0 0" xyz="0 0 0.127"/>
    <parent link="pod_bin_4g"/>
    <child link="pod_bin_4g_top"/>
  </joint>
  <joint name="pod_bin_4g_pod_bin_4g_back" type="fixed">
    <origin rpy="1.5707963267948966 0 0" xyz="0 0.15239999999999998 0"/>
    <parent link="pod_bin_4g"/>
    <child link="pod_bin_4g_back"/>
  </joint>
  <joint name="pod_bin_4g_pod_bin_4g_flap" type="fixed">
    <origin rpy="1.5707963267948966 0 0" xyz="0 0 0"/>
    <parent link="pod_bin_4g"/>
    <child link="pod_bin_4g_flap"/>
  </joint>
  <joint name="pod_shelf_g_pod_bin_4g_joint" type="fixed">
    <origin xyz="0.6858 0 0"/>
    <parent link="pod_shelf_g"/>
    <child link="pod_bin_4g"/>
  </joint>
  <joint name="pod_fabric_base_pod_shelf_g_joint" type="fixed">
    <origin xyz="0 0 1.0413999999999999"/>
    <parent link="pod_fabric_base"/>
    <child link="pod_shelf_g"/>
  </joint>
  <link name="pod_shelf_h"/>
  <link name="pod_bin_1h"/>
  <link name="pod_bin_1h_bottom">
    <inertial>
      <mass value="0.01"/>
      <inertia ixx="0.0002835" ixy="0.0" ixz="0.0" iyy="0.0002835" iyz="0.0" izz="0.000324"/>
    </inertial>
    <visual>
      <origin xyz="0.1143 0.07619999999999999 -0.0005"/>
      <geometry>
        <box size="0.2286 0.15239999999999998 0.001"/>
      </geometry>
      <material name="yellow_fabric"/>
    </visual>
    <collision>
      <origin xyz="0.1143 0.07619999999999999 -0.0005"/>
      <geometry>
        <box size="0.2286 0.15239999999999998 0.001"/>
      </geometry>
    </collision>
  </link>
  <link name="pod_bin_1h_left">
    <inertial>
      <mass value="0.01"/>
      <inertia ixx="0.0002835" ixy="0.0" ixz="0.0" iyy="0.0002835" iyz="0.0" izz="0.000324"/>
    </inertial>
    <visual>
      <origin xyz="0.07619999999999999 0.07619999999999999 -0.0005"/>
      <geometry>
        <box size="0.15239999999999998 0.15239999999999998 0.001"/>
      </geometry>
      <material name="yellow_fabric"/>
    </visual>
    <collision>
      <origin xyz="0.07619999999999999 0.07619999999999999 -0.0005"/>
      <geometry>
        <box size="0.15239999999999998 0.15239999999999998 0.001"/>
      </geometry>
    </collision>
  </link>
  <link name="pod_bin_1h_right">
    <inertial>
      <mass value="0.01"/>
      <inertia ixx="0.0002835" ixy="0.0" ixz="0.0" iyy="0.0002835" iyz="0.0" izz="0.000324"/>
    </inertial>
    <visual>
      <origin xyz="0.07619999999999999 0.07619999999999999 -0.0005"/>
      <geometry>
        <box size="0.15239999999999998 0.15239999999999998 0.001"/>
      </geometry>
      <material name="yellow_fabric"/>
    </visual>
    <collision>
      <origin xyz="0.07619999999999999 0.07619999999999999 -0.0005"/>
      <geometry>
        <box size="0.15239999999999998 0.15239999999999998 0.001"/>
      </geometry>
    </collision>
  </link>
  <link name="pod_bin_1h_top">
    <inertial>
      <mass value="0.01"/>
      <inertia ixx="0.0002835" ixy="0.0" ixz="0.0" iyy="0.0002835" iyz="0.0" izz="0.000324"/>
    </inertial>
    <visual>
      <origin xyz="0.1143 0.07619999999999999 -0.0005"/>
      <geometry>
        <box size="0.2286 0.15239999999999998 0.001"/>
      </geometry>
      <material name="yellow_fabric"/>
    </visual>
    <collision>
      <origin xyz="0.1143 0.07619999999999999 -0.0005"/>
      <geometry>
        <box size="0.2286 0.15239999999999998 0.001"/>
      </geometry>
    </collision>
  </link>
  <link name="pod_bin_1h_back">
    <inertial>
      <mass value="0.01"/>
      <inertia ixx="0.0002835" ixy="0.0" ixz="0.0" iyy="0.0002835" iyz="0.0" izz="0.000324"/>
    </inertial>
    <visual>
      <origin xyz="0.1143 0.07619999999999999 -0.0005"/>
      <geometry>
        <box size="0.2286 0.15239999999999998 0.001"/>
      </geometry>
      <material name="yellow_fabric"/>
    </visual>
    <collision>
      <origin xyz="0.1143 0.07619999999999999 -0.0005"/>
      <geometry>
        <box size="0.2286 0.15239999999999998 0.001"/>
      </geometry>
    </collision>
  </link>
  <link name="pod_bin_1h_flap">
    <inertial>
      <mass value="0.01"/>
      <inertia ixx="0.0002835" ixy="0.0" ixz="0.0" iyy="0.0002835" iyz="0.0" izz="0.000324"/>
    </inertial>
    <visual>
      <origin xyz="0.1143 0.0127 -0.0005"/>
      <geometry>
        <box size="0.2286 0.0254 0.001"/>
      </geometry>
      <material name="yellow_fabric"/>
    </visual>
    <collision>
      <origin xyz="0.1143 0.0127 -0.0005"/>
      <geometry>
        <box size="0.2286 0.0254 0.001"/>
      </geometry>
    </collision>
  </link>
  <joint name="pod_bin_1h_pod_bin_1h_bottom" type="fixed">
    <parent link="pod_bin_1h"/>
    <child link="pod_bin_1h_bottom"/>
  </joint>
  <joint name="pod_bin_1h_pod_bin_1h_left" type="fixed">
    <origin rpy="1.5707963267948966 0 1.5707963267948966 " xyz="0 0 0"/>
    <parent link="pod_bin_1h"/>
    <child link="pod_bin_1h_left"/>
  </joint>
  <joint name="pod_bin_1h_pod_bin_1h_right" type="fixed">
    <origin rpy="1.5707963267948966 0 1.5707963267948966 " xyz="0.2286 0 0"/>
    <parent link="pod_bin_1h"/>
    <child link="pod_bin_1h_right"/>
  </joint>
  <joint name="pod_bin_1h_pod_bin_1h_top" type="fixed">
    <origin rpy="0 0 0" xyz="0 0 0.15239999999999998"/>
    <parent link="pod_bin_1h"/>
    <child link="pod_bin_1h_top"/>
  </joint>
  <joint name="pod_bin_1h_pod_bin_1h_back" type="fixed">
    <origin rpy="1.5707963267948966 0 0" xyz="0 0.15239999999999998 0"/>
    <parent link="pod_bin_1h"/>
    <child link="pod_bin_1h_back"/>
  </joint>
  <joint name="pod_bin_1h_pod_bin_1h_flap" type="fixed">
    <origin rpy="1.5707963267948966 0 0" xyz="0 0 0"/>
    <parent link="pod_bin_1h"/>
    <child link="pod_bin_1h_flap"/>
  </joint>
  <joint name="pod_shelf_h_pod_bin_1h_joint" type="fixed">
    <origin xyz="0.0 0 0"/>
    <parent link="pod_shelf_h"/>
    <child link="pod_bin_1h"/>
  </joint>
  <link name="pod_bin_2h"/>
  <link name="pod_bin_2h_bottom">
    <inertial>
      <mass value="0.01"/>
      <inertia ixx="0.0002835" ixy="0.0" ixz="0.0" iyy="0.0002835" iyz="0.0" izz="0.000324"/>
    </inertial>
    <visual>
      <origin xyz="0.1143 0.07619999999999999 -0.0005"/>
      <geometry>
        <box size="0.2286 0.15239999999999998 0.001"/>
      </geometry>
      <material name="yellow_fabric"/>
    </visual>
    <collision>
      <origin xyz="0.1143 0.07619999999999999 -0.0005"/>
      <geometry>
        <box size="0.2286 0.15239999999999998 0.001"/>
      </geometry>
    </collision>
  </link>
  <link name="pod_bin_2h_left">
    <inertial>
      <mass value="0.01"/>
      <inertia ixx="0.0002835" ixy="0.0" ixz="0.0" iyy="0.0002835" iyz="0.0" izz="0.000324"/>
    </inertial>
    <visual>
      <origin xyz="0.07619999999999999 0.07619999999999999 -0.0005"/>
      <geometry>
        <box size="0.15239999999999998 0.15239999999999998 0.001"/>
      </geometry>
      <material name="yellow_fabric"/>
    </visual>
    <collision>
      <origin xyz="0.07619999999999999 0.07619999999999999 -0.0005"/>
      <geometry>
        <box size="0.15239999999999998 0.15239999999999998 0.001"/>
      </geometry>
    </collision>
  </link>
  <link name="pod_bin_2h_right">
    <inertial>
      <mass value="0.01"/>
      <inertia ixx="0.0002835" ixy="0.0" ixz="0.0" iyy="0.0002835" iyz="0.0" izz="0.000324"/>
    </inertial>
    <visual>
      <origin xyz="0.07619999999999999 0.07619999999999999 -0.0005"/>
      <geometry>
        <box size="0.15239999999999998 0.15239999999999998 0.001"/>
      </geometry>
      <material name="yellow_fabric"/>
    </visual>
    <collision>
      <origin xyz="0.07619999999999999 0.07619999999999999 -0.0005"/>
      <geometry>
        <box size="0.15239999999999998 0.15239999999999998 0.001"/>
      </geometry>
    </collision>
  </link>
  <link name="pod_bin_2h_top">
    <inertial>
      <mass value="0.01"/>
      <inertia ixx="0.0002835" ixy="0.0" ixz="0.0" iyy="0.0002835" iyz="0.0" izz="0.000324"/>
    </inertial>
    <visual>
      <origin xyz="0.1143 0.07619999999999999 -0.0005"/>
      <geometry>
        <box size="0.2286 0.15239999999999998 0.001"/>
      </geometry>
      <material name="yellow_fabric"/>
    </visual>
    <collision>
      <origin xyz="0.1143 0.07619999999999999 -0.0005"/>
      <geometry>
        <box size="0.2286 0.15239999999999998 0.001"/>
      </geometry>
    </collision>
  </link>
  <link name="pod_bin_2h_back">
    <inertial>
      <mass value="0.01"/>
      <inertia ixx="0.0002835" ixy="0.0" ixz="0.0" iyy="0.0002835" iyz="0.0" izz="0.000324"/>
    </inertial>
    <visual>
      <origin xyz="0.1143 0.07619999999999999 -0.0005"/>
      <geometry>
        <box size="0.2286 0.15239999999999998 0.001"/>
      </geometry>
      <material name="yellow_fabric"/>
    </visual>
    <collision>
      <origin xyz="0.1143 0.07619999999999999 -0.0005"/>
      <geometry>
        <box size="0.2286 0.15239999999999998 0.001"/>
      </geometry>
    </collision>
  </link>
  <link name="pod_bin_2h_flap">
    <inertial>
      <mass value="0.01"/>
      <inertia ixx="0.0002835" ixy="0.0" ixz="0.0" iyy="0.0002835" iyz="0.0" izz="0.000324"/>
    </inertial>
    <visual>
      <origin xyz="0.1143 0.0127 -0.0005"/>
      <geometry>
        <box size="0.2286 0.0254 0.001"/>
      </geometry>
      <material name="yellow_fabric"/>
    </visual>
    <collision>
      <origin xyz="0.1143 0.0127 -0.0005"/>
      <geometry>
        <box size="0.2286 0.0254 0.001"/>
      </geometry>
    </collision>
  </link>
  <joint name="pod_bin_2h_pod_bin_2h_bottom" type="fixed">
    <parent link="pod_bin_2h"/>
    <child link="pod_bin_2h_bottom"/>
  </joint>
  <joint name="pod_bin_2h_pod_bin_2h_left" type="fixed">
    <origin rpy="1.5707963267948966 0 1.5707963267948966 " xyz="0 0 0"/>
    <parent link="pod_bin_2h"/>
    <child link="pod_bin_2h_left"/>
  </joint>
  <joint name="pod_bin_2h_pod_bin_2h_right" type="fixed">
    <origin rpy="1.5707963267948966 0 1.5707963267948966 " xyz="0.2286 0 0"/>
    <parent link="pod_bin_2h"/>
    <child link="pod_bin_2h_right"/>
  </joint>
  <joint name="pod_bin_2h_pod_bin_2h_top" type="fixed">
    <origin rpy="0 0 0" xyz="0 0 0.15239999999999998"/>
    <parent link="pod_bin_2h"/>
    <child link="pod_bin_2h_top"/>
  </joint>
  <joint name="pod_bin_2h_pod_bin_2h_back" type="fixed">
    <origin rpy="1.5707963267948966 0 0" xyz="0 0.15239999999999998 0"/>
    <parent link="pod_bin_2h"/>
    <child link="pod_bin_2h_back"/>
  </joint>
  <joint name="pod_bin_2h_pod_bin_2h_flap" type="fixed">
    <origin rpy="1.5707963267948966 0 0" xyz="0 0 0"/>
    <parent link="pod_bin_2h"/>
    <child link="pod_bin_2h_flap"/>
  </joint>
  <joint name="pod_shelf_h_pod_bin_2h_joint" type="fixed">
    <origin xyz="0.2286 0 0"/>
    <parent link="pod_shelf_h"/>
    <child link="pod_bin_2h"/>
  </joint>
  <link name="pod_bin_3h"/>
  <link name="pod_bin_3h_bottom">
    <inertial>
      <mass value="0.01"/>
      <inertia ixx="0.0002835" ixy="0.0" ixz="0.0" iyy="0.0002835" iyz="0.0" izz="0.000324"/>
    </inertial>
    <visual>
      <origin xyz="0.1143 0.07619999999999999 -0.0005"/>
      <geometry>
        <box size="0.2286 0.15239999999999998 0.001"/>
      </geometry>
      <material name="yellow_fabric"/>
    </visual>
    <collision>
      <origin xyz="0.1143 0.07619999999999999 -0.0005"/>
      <geometry>
        <box size="0.2286 0.15239999999999998 0.001"/>
      </geometry>
    </collision>
  </link>
  <link name="pod_bin_3h_left">
    <inertial>
      <mass value="0.01"/>
      <inertia ixx="0.0002835" ixy="0.0" ixz="0.0" iyy="0.0002835" iyz="0.0" izz="0.000324"/>
    </inertial>
    <visual>
      <origin xyz="0.07619999999999999 0.07619999999999999 -0.0005"/>
      <geometry>
        <box size="0.15239999999999998 0.15239999999999998 0.001"/>
      </geometry>
      <material name="yellow_fabric"/>
    </visual>
    <collision>
      <origin xyz="0.07619999999999999 0.07619999999999999 -0.0005"/>
      <geometry>
        <box size="0.15239999999999998 0.15239999999999998 0.001"/>
      </geometry>
    </collision>
  </link>
  <link name="pod_bin_3h_right">
    <inertial>
      <mass value="0.01"/>
      <inertia ixx="0.0002835" ixy="0.0" ixz="0.0" iyy="0.0002835" iyz="0.0" izz="0.000324"/>
    </inertial>
    <visual>
      <origin xyz="0.07619999999999999 0.07619999999999999 -0.0005"/>
      <geometry>
        <box size="0.15239999999999998 0.15239999999999998 0.001"/>
      </geometry>
      <material name="yellow_fabric"/>
    </visual>
    <collision>
      <origin xyz="0.07619999999999999 0.07619999999999999 -0.0005"/>
      <geometry>
        <box size="0.15239999999999998 0.15239999999999998 0.001"/>
      </geometry>
    </collision>
  </link>
  <link name="pod_bin_3h_top">
    <inertial>
      <mass value="0.01"/>
      <inertia ixx="0.0002835" ixy="0.0" ixz="0.0" iyy="0.0002835" iyz="0.0" izz="0.000324"/>
    </inertial>
    <visual>
      <origin xyz="0.1143 0.07619999999999999 -0.0005"/>
      <geometry>
        <box size="0.2286 0.15239999999999998 0.001"/>
      </geometry>
      <material name="yellow_fabric"/>
    </visual>
    <collision>
      <origin xyz="0.1143 0.07619999999999999 -0.0005"/>
      <geometry>
        <box size="0.2286 0.15239999999999998 0.001"/>
      </geometry>
    </collision>
  </link>
  <link name="pod_bin_3h_back">
    <inertial>
      <mass value="0.01"/>
      <inertia ixx="0.0002835" ixy="0.0" ixz="0.0" iyy="0.0002835" iyz="0.0" izz="0.000324"/>
    </inertial>
    <visual>
      <origin xyz="0.1143 0.07619999999999999 -0.0005"/>
      <geometry>
        <box size="0.2286 0.15239999999999998 0.001"/>
      </geometry>
      <material name="yellow_fabric"/>
    </visual>
    <collision>
      <origin xyz="0.1143 0.07619999999999999 -0.0005"/>
      <geometry>
        <box size="0.2286 0.15239999999999998 0.001"/>
      </geometry>
    </collision>
  </link>
  <link name="pod_bin_3h_flap">
    <inertial>
      <mass value="0.01"/>
      <inertia ixx="0.0002835" ixy="0.0" ixz="0.0" iyy="0.0002835" iyz="0.0" izz="0.000324"/>
    </inertial>
    <visual>
      <origin xyz="0.1143 0.0127 -0.0005"/>
      <geometry>
        <box size="0.2286 0.0254 0.001"/>
      </geometry>
      <material name="yellow_fabric"/>
    </visual>
    <collision>
      <origin xyz="0.1143 0.0127 -0.0005"/>
      <geometry>
        <box size="0.2286 0.0254 0.001"/>
      </geometry>
    </collision>
  </link>
  <joint name="pod_bin_3h_pod_bin_3h_bottom" type="fixed">
    <parent link="pod_bin_3h"/>
    <child link="pod_bin_3h_bottom"/>
  </joint>
  <joint name="pod_bin_3h_pod_bin_3h_left" type="fixed">
    <origin rpy="1.5707963267948966 0 1.5707963267948966 " xyz="0 0 0"/>
    <parent link="pod_bin_3h"/>
    <child link="pod_bin_3h_left"/>
  </joint>
  <joint name="pod_bin_3h_pod_bin_3h_right" type="fixed">
    <origin rpy="1.5707963267948966 0 1.5707963267948966 " xyz="0.2286 0 0"/>
    <parent link="pod_bin_3h"/>
    <child link="pod_bin_3h_right"/>
  </joint>
  <joint name="pod_bin_3h_pod_bin_3h_top" type="fixed">
    <origin rpy="0 0 0" xyz="0 0 0.15239999999999998"/>
    <parent link="pod_bin_3h"/>
    <child link="pod_bin_3h_top"/>
  </joint>
  <joint name="pod_bin_3h_pod_bin_3h_back" type="fixed">
    <origin rpy="1.5707963267948966 0 0" xyz="0 0.15239999999999998 0"/>
    <parent link="pod_bin_3h"/>
    <child link="pod_bin_3h_back"/>
  </joint>
  <joint name="pod_bin_3h_pod_bin_3h_flap" type="fixed">
    <origin rpy="1.5707963267948966 0 0" xyz="0 0 0"/>
    <parent link="pod_bin_3h"/>
    <child link="pod_bin_3h_flap"/>
  </joint>
  <joint name="pod_shelf_h_pod_bin_3h_joint" type="fixed">
    <origin xyz="0.4572 0 0"/>
    <parent link="pod_shelf_h"/>
    <child link="pod_bin_3h"/>
  </joint>
  <link name="pod_bin_4h"/>
  <link name="pod_bin_4h_bottom">
    <inertial>
      <mass value="0.01"/>
      <inertia ixx="0.0002835" ixy="0.0" ixz="0.0" iyy="0.0002835" iyz="0.0" izz="0.000324"/>
    </inertial>
    <visual>
      <origin xyz="0.1143 0.07619999999999999 -0.0005"/>
      <geometry>
        <box size="0.2286 0.15239999999999998 0.001"/>
      </geometry>
      <material name="yellow_fabric"/>
    </visual>
    <collision>
      <origin xyz="0.1143 0.07619999999999999 -0.0005"/>
      <geometry>
        <box size="0.2286 0.15239999999999998 0.001"/>
      </geometry>
    </collision>
  </link>
  <link name="pod_bin_4h_left">
    <inertial>
      <mass value="0.01"/>
      <inertia ixx="0.0002835" ixy="0.0" ixz="0.0" iyy="0.0002835" iyz="0.0" izz="0.000324"/>
    </inertial>
    <visual>
      <origin xyz="0.07619999999999999 0.07619999999999999 -0.0005"/>
      <geometry>
        <box size="0.15239999999999998 0.15239999999999998 0.001"/>
      </geometry>
      <material name="yellow_fabric"/>
    </visual>
    <collision>
      <origin xyz="0.07619999999999999 0.07619999999999999 -0.0005"/>
      <geometry>
        <box size="0.15239999999999998 0.15239999999999998 0.001"/>
      </geometry>
    </collision>
  </link>
  <link name="pod_bin_4h_right">
    <inertial>
      <mass value="0.01"/>
      <inertia ixx="0.0002835" ixy="0.0" ixz="0.0" iyy="0.0002835" iyz="0.0" izz="0.000324"/>
    </inertial>
    <visual>
      <origin xyz="0.07619999999999999 0.07619999999999999 -0.0005"/>
      <geometry>
        <box size="0.15239999999999998 0.15239999999999998 0.001"/>
      </geometry>
      <material name="yellow_fabric"/>
    </visual>
    <collision>
      <origin xyz="0.07619999999999999 0.07619999999999999 -0.0005"/>
      <geometry>
        <box size="0.15239999999999998 0.15239999999999998 0.001"/>
      </geometry>
    </collision>
  </link>
  <link name="pod_bin_4h_top">
    <inertial>
      <mass value="0.01"/>
      <inertia ixx="0.0002835" ixy="0.0" ixz="0.0" iyy="0.0002835" iyz="0.0" izz="0.000324"/>
    </inertial>
    <visual>
      <origin xyz="0.1143 0.07619999999999999 -0.0005"/>
      <geometry>
        <box size="0.2286 0.15239999999999998 0.001"/>
      </geometry>
      <material name="yellow_fabric"/>
    </visual>
    <collision>
      <origin xyz="0.1143 0.07619999999999999 -0.0005"/>
      <geometry>
        <box size="0.2286 0.15239999999999998 0.001"/>
      </geometry>
    </collision>
  </link>
  <link name="pod_bin_4h_back">
    <inertial>
      <mass value="0.01"/>
      <inertia ixx="0.0002835" ixy="0.0" ixz="0.0" iyy="0.0002835" iyz="0.0" izz="0.000324"/>
    </inertial>
    <visual>
      <origin xyz="0.1143 0.07619999999999999 -0.0005"/>
      <geometry>
        <box size="0.2286 0.15239999999999998 0.001"/>
      </geometry>
      <material name="yellow_fabric"/>
    </visual>
    <collision>
      <origin xyz="0.1143 0.07619999999999999 -0.0005"/>
      <geometry>
        <box size="0.2286 0.15239999999999998 0.001"/>
      </geometry>
    </collision>
  </link>
  <link name="pod_bin_4h_flap">
    <inertial>
      <mass value="0.01"/>
      <inertia ixx="0.0002835" ixy="0.0" ixz="0.0" iyy="0.0002835" iyz="0.0" izz="0.000324"/>
    </inertial>
    <visual>
      <origin xyz="0.1143 0.0127 -0.0005"/>
      <geometry>
        <box size="0.2286 0.0254 0.001"/>
      </geometry>
      <material name="yellow_fabric"/>
    </visual>
    <collision>
      <origin xyz="0.1143 0.0127 -0.0005"/>
      <geometry>
        <box size="0.2286 0.0254 0.001"/>
      </geometry>
    </collision>
  </link>
  <joint name="pod_bin_4h_pod_bin_4h_bottom" type="fixed">
    <parent link="pod_bin_4h"/>
    <child link="pod_bin_4h_bottom"/>
  </joint>
  <joint name="pod_bin_4h_pod_bin_4h_left" type="fixed">
    <origin rpy="1.5707963267948966 0 1.5707963267948966 " xyz="0 0 0"/>
    <parent link="pod_bin_4h"/>
    <child link="pod_bin_4h_left"/>
  </joint>
  <joint name="pod_bin_4h_pod_bin_4h_right" type="fixed">
    <origin rpy="1.5707963267948966 0 1.5707963267948966 " xyz="0.2286 0 0"/>
    <parent link="pod_bin_4h"/>
    <child link="pod_bin_4h_right"/>
  </joint>
  <joint name="pod_bin_4h_pod_bin_4h_top" type="fixed">
    <origin rpy="0 0 0" xyz="0 0 0.15239999999999998"/>
    <parent link="pod_bin_4h"/>
    <child link="pod_bin_4h_top"/>
  </joint>
  <joint name="pod_bin_4h_pod_bin_4h_back" type="fixed">
    <origin rpy="1.5707963267948966 0 0" xyz="0 0.15239999999999998 0"/>
    <parent link="pod_bin_4h"/>
    <child link="pod_bin_4h_back"/>
  </joint>
  <joint name="pod_bin_4h_pod_bin_4h_flap" type="fixed">
    <origin rpy="1.5707963267948966 0 0" xyz="0 0 0"/>
    <parent link="pod_bin_4h"/>
    <child link="pod_bin_4h_flap"/>
  </joint>
  <joint name="pod_shelf_h_pod_bin_4h_joint" type="fixed">
    <origin xyz="0.6858 0 0"/>
    <parent link="pod_shelf_h"/>
    <child link="pod_bin_4h"/>
  </joint>
  <joint name="pod_fabric_base_pod_shelf_h_joint" type="fixed">
    <origin xyz="0 0 1.1683999999999999"/>
    <parent link="pod_fabric_base"/>
    <child link="pod_shelf_h"/>
  </joint>
  <link name="pod_shelf_i"/>
  <link name="pod_bin_1i"/>
  <link name="pod_bin_1i_bottom">
    <inertial>
      <mass value="0.01"/>
      <inertia ixx="0.0002835" ixy="0.0" ixz="0.0" iyy="0.0002835" iyz="0.0" izz="0.000324"/>
    </inertial>
    <visual>
      <origin xyz="0.1143 0.07619999999999999 -0.0005"/>
      <geometry>
        <box size="0.2286 0.15239999999999998 0.001"/>
      </geometry>
      <material name="yellow_fabric"/>
    </visual>
    <collision>
      <origin xyz="0.1143 0.07619999999999999 -0.0005"/>
      <geometry>
        <box size="0.2286 0.15239999999999998 0.001"/>
      </geometry>
    </collision>
  </link>
  <link name="pod_bin_1i_left">
    <inertial>
      <mass value="0.01"/>
      <inertia ixx="0.0002835" ixy="0.0" ixz="0.0" iyy="0.0002835" iyz="0.0" izz="0.000324"/>
    </inertial>
    <visual>
      <origin xyz="0.07619999999999999 0.0635 -0.0005"/>
      <geometry>
        <box size="0.15239999999999998 0.127 0.001"/>
      </geometry>
      <material name="yellow_fabric"/>
    </visual>
    <collision>
      <origin xyz="0.07619999999999999 0.0635 -0.0005"/>
      <geometry>
        <box size="0.15239999999999998 0.127 0.001"/>
      </geometry>
    </collision>
  </link>
  <link name="pod_bin_1i_right">
    <inertial>
      <mass value="0.01"/>
      <inertia ixx="0.0002835" ixy="0.0" ixz="0.0" iyy="0.0002835" iyz="0.0" izz="0.000324"/>
    </inertial>
    <visual>
      <origin xyz="0.07619999999999999 0.0635 -0.0005"/>
      <geometry>
        <box size="0.15239999999999998 0.127 0.001"/>
      </geometry>
      <material name="yellow_fabric"/>
    </visual>
    <collision>
      <origin xyz="0.07619999999999999 0.0635 -0.0005"/>
      <geometry>
        <box size="0.15239999999999998 0.127 0.001"/>
      </geometry>
    </collision>
  </link>
  <link name="pod_bin_1i_top">
    <inertial>
      <mass value="0.01"/>
      <inertia ixx="0.0002835" ixy="0.0" ixz="0.0" iyy="0.0002835" iyz="0.0" izz="0.000324"/>
    </inertial>
    <visual>
      <origin xyz="0.1143 0.07619999999999999 -0.0005"/>
      <geometry>
        <box size="0.2286 0.15239999999999998 0.001"/>
      </geometry>
      <material name="yellow_fabric"/>
    </visual>
    <collision>
      <origin xyz="0.1143 0.07619999999999999 -0.0005"/>
      <geometry>
        <box size="0.2286 0.15239999999999998 0.001"/>
      </geometry>
    </collision>
  </link>
  <link name="pod_bin_1i_back">
    <inertial>
      <mass value="0.01"/>
      <inertia ixx="0.0002835" ixy="0.0" ixz="0.0" iyy="0.0002835" iyz="0.0" izz="0.000324"/>
    </inertial>
    <visual>
      <origin xyz="0.1143 0.0635 -0.0005"/>
      <geometry>
        <box size="0.2286 0.127 0.001"/>
      </geometry>
      <material name="yellow_fabric"/>
    </visual>
    <collision>
      <origin xyz="0.1143 0.0635 -0.0005"/>
      <geometry>
        <box size="0.2286 0.127 0.001"/>
      </geometry>
    </collision>
  </link>
  <link name="pod_bin_1i_flap">
    <inertial>
      <mass value="0.01"/>
      <inertia ixx="0.0002835" ixy="0.0" ixz="0.0" iyy="0.0002835" iyz="0.0" izz="0.000324"/>
    </inertial>
    <visual>
      <origin xyz="0.1143 0.0127 -0.0005"/>
      <geometry>
        <box size="0.2286 0.0254 0.001"/>
      </geometry>
      <material name="yellow_fabric"/>
    </visual>
    <collision>
      <origin xyz="0.1143 0.0127 -0.0005"/>
      <geometry>
        <box size="0.2286 0.0254 0.001"/>
      </geometry>
    </collision>
  </link>
  <joint name="pod_bin_1i_pod_bin_1i_bottom" type="fixed">
    <parent link="pod_bin_1i"/>
    <child link="pod_bin_1i_bottom"/>
  </joint>
  <joint name="pod_bin_1i_pod_bin_1i_left" type="fixed">
    <origin rpy="1.5707963267948966 0 1.5707963267948966 " xyz="0 0 0"/>
    <parent link="pod_bin_1i"/>
    <child link="pod_bin_1i_left"/>
  </joint>
  <joint name="pod_bin_1i_pod_bin_1i_right" type="fixed">
    <origin rpy="1.5707963267948966 0 1.5707963267948966 " xyz="0.2286 0 0"/>
    <parent link="pod_bin_1i"/>
    <child link="pod_bin_1i_right"/>
  </joint>
  <joint name="pod_bin_1i_pod_bin_1i_top" type="fixed">
    <origin rpy="0 0 0" xyz="0 0 0.127"/>
    <parent link="pod_bin_1i"/>
    <child link="pod_bin_1i_top"/>
  </joint>
  <joint name="pod_bin_1i_pod_bin_1i_back" type="fixed">
    <origin rpy="1.5707963267948966 0 0" xyz="0 0.15239999999999998 0"/>
    <parent link="pod_bin_1i"/>
    <child link="pod_bin_1i_back"/>
  </joint>
  <joint name="pod_bin_1i_pod_bin_1i_flap" type="fixed">
    <origin rpy="1.5707963267948966 0 0" xyz="0 0 0"/>
    <parent link="pod_bin_1i"/>
    <child link="pod_bin_1i_flap"/>
  </joint>
  <joint name="pod_shelf_i_pod_bin_1i_joint" type="fixed">
    <origin xyz="0.0 0 0"/>
    <parent link="pod_shelf_i"/>
    <child link="pod_bin_1i"/>
  </joint>
  <link name="pod_bin_2i"/>
  <link name="pod_bin_2i_bottom">
    <inertial>
      <mass value="0.01"/>
      <inertia ixx="0.0002835" ixy="0.0" ixz="0.0" iyy="0.0002835" iyz="0.0" izz="0.000324"/>
    </inertial>
    <visual>
      <origin xyz="0.1143 0.07619999999999999 -0.0005"/>
      <geometry>
        <box size="0.2286 0.15239999999999998 0.001"/>
      </geometry>
      <material name="yellow_fabric"/>
    </visual>
    <collision>
      <origin xyz="0.1143 0.07619999999999999 -0.0005"/>
      <geometry>
        <box size="0.2286 0.15239999999999998 0.001"/>
      </geometry>
    </collision>
  </link>
  <link name="pod_bin_2i_left">
    <inertial>
      <mass value="0.01"/>
      <inertia ixx="0.0002835" ixy="0.0" ixz="0.0" iyy="0.0002835" iyz="0.0" izz="0.000324"/>
    </inertial>
    <visual>
      <origin xyz="0.07619999999999999 0.0635 -0.0005"/>
      <geometry>
        <box size="0.15239999999999998 0.127 0.001"/>
      </geometry>
      <material name="yellow_fabric"/>
    </visual>
    <collision>
      <origin xyz="0.07619999999999999 0.0635 -0.0005"/>
      <geometry>
        <box size="0.15239999999999998 0.127 0.001"/>
      </geometry>
    </collision>
  </link>
  <link name="pod_bin_2i_right">
    <inertial>
      <mass value="0.01"/>
      <inertia ixx="0.0002835" ixy="0.0" ixz="0.0" iyy="0.0002835" iyz="0.0" izz="0.000324"/>
    </inertial>
    <visual>
      <origin xyz="0.07619999999999999 0.0635 -0.0005"/>
      <geometry>
        <box size="0.15239999999999998 0.127 0.001"/>
      </geometry>
      <material name="yellow_fabric"/>
    </visual>
    <collision>
      <origin xyz="0.07619999999999999 0.0635 -0.0005"/>
      <geometry>
        <box size="0.15239999999999998 0.127 0.001"/>
      </geometry>
    </collision>
  </link>
  <link name="pod_bin_2i_top">
    <inertial>
      <mass value="0.01"/>
      <inertia ixx="0.0002835" ixy="0.0" ixz="0.0" iyy="0.0002835" iyz="0.0" izz="0.000324"/>
    </inertial>
    <visual>
      <origin xyz="0.1143 0.07619999999999999 -0.0005"/>
      <geometry>
        <box size="0.2286 0.15239999999999998 0.001"/>
      </geometry>
      <material name="yellow_fabric"/>
    </visual>
    <collision>
      <origin xyz="0.1143 0.07619999999999999 -0.0005"/>
      <geometry>
        <box size="0.2286 0.15239999999999998 0.001"/>
      </geometry>
    </collision>
  </link>
  <link name="pod_bin_2i_back">
    <inertial>
      <mass value="0.01"/>
      <inertia ixx="0.0002835" ixy="0.0" ixz="0.0" iyy="0.0002835" iyz="0.0" izz="0.000324"/>
    </inertial>
    <visual>
      <origin xyz="0.1143 0.0635 -0.0005"/>
      <geometry>
        <box size="0.2286 0.127 0.001"/>
      </geometry>
      <material name="yellow_fabric"/>
    </visual>
    <collision>
      <origin xyz="0.1143 0.0635 -0.0005"/>
      <geometry>
        <box size="0.2286 0.127 0.001"/>
      </geometry>
    </collision>
  </link>
  <link name="pod_bin_2i_flap">
    <inertial>
      <mass value="0.01"/>
      <inertia ixx="0.0002835" ixy="0.0" ixz="0.0" iyy="0.0002835" iyz="0.0" izz="0.000324"/>
    </inertial>
    <visual>
      <origin xyz="0.1143 0.0127 -0.0005"/>
      <geometry>
        <box size="0.2286 0.0254 0.001"/>
      </geometry>
      <material name="yellow_fabric"/>
    </visual>
    <collision>
      <origin xyz="0.1143 0.0127 -0.0005"/>
      <geometry>
        <box size="0.2286 0.0254 0.001"/>
      </geometry>
    </collision>
  </link>
  <joint name="pod_bin_2i_pod_bin_2i_bottom" type="fixed">
    <parent link="pod_bin_2i"/>
    <child link="pod_bin_2i_bottom"/>
  </joint>
  <joint name="pod_bin_2i_pod_bin_2i_left" type="fixed">
    <origin rpy="1.5707963267948966 0 1.5707963267948966 " xyz="0 0 0"/>
    <parent link="pod_bin_2i"/>
    <child link="pod_bin_2i_left"/>
  </joint>
  <joint name="pod_bin_2i_pod_bin_2i_right" type="fixed">
    <origin rpy="1.5707963267948966 0 1.5707963267948966 " xyz="0.2286 0 0"/>
    <parent link="pod_bin_2i"/>
    <child link="pod_bin_2i_right"/>
  </joint>
  <joint name="pod_bin_2i_pod_bin_2i_top" type="fixed">
    <origin rpy="0 0 0" xyz="0 0 0.127"/>
    <parent link="pod_bin_2i"/>
    <child link="pod_bin_2i_top"/>
  </joint>
  <joint name="pod_bin_2i_pod_bin_2i_back" type="fixed">
    <origin rpy="1.5707963267948966 0 0" xyz="0 0.15239999999999998 0"/>
    <parent link="pod_bin_2i"/>
    <child link="pod_bin_2i_back"/>
  </joint>
  <joint name="pod_bin_2i_pod_bin_2i_flap" type="fixed">
    <origin rpy="1.5707963267948966 0 0" xyz="0 0 0"/>
    <parent link="pod_bin_2i"/>
    <child link="pod_bin_2i_flap"/>
  </joint>
  <joint name="pod_shelf_i_pod_bin_2i_joint" type="fixed">
    <origin xyz="0.2286 0 0"/>
    <parent link="pod_shelf_i"/>
    <child link="pod_bin_2i"/>
  </joint>
  <link name="pod_bin_3i"/>
  <link name="pod_bin_3i_bottom">
    <inertial>
      <mass value="0.01"/>
      <inertia ixx="0.0002835" ixy="0.0" ixz="0.0" iyy="0.0002835" iyz="0.0" izz="0.000324"/>
    </inertial>
    <visual>
      <origin xyz="0.1143 0.07619999999999999 -0.0005"/>
      <geometry>
        <box size="0.2286 0.15239999999999998 0.001"/>
      </geometry>
      <material name="yellow_fabric"/>
    </visual>
    <collision>
      <origin xyz="0.1143 0.07619999999999999 -0.0005"/>
      <geometry>
        <box size="0.2286 0.15239999999999998 0.001"/>
      </geometry>
    </collision>
  </link>
  <link name="pod_bin_3i_left">
    <inertial>
      <mass value="0.01"/>
      <inertia ixx="0.0002835" ixy="0.0" ixz="0.0" iyy="0.0002835" iyz="0.0" izz="0.000324"/>
    </inertial>
    <visual>
      <origin xyz="0.07619999999999999 0.0635 -0.0005"/>
      <geometry>
        <box size="0.15239999999999998 0.127 0.001"/>
      </geometry>
      <material name="yellow_fabric"/>
    </visual>
    <collision>
      <origin xyz="0.07619999999999999 0.0635 -0.0005"/>
      <geometry>
        <box size="0.15239999999999998 0.127 0.001"/>
      </geometry>
    </collision>
  </link>
  <link name="pod_bin_3i_right">
    <inertial>
      <mass value="0.01"/>
      <inertia ixx="0.0002835" ixy="0.0" ixz="0.0" iyy="0.0002835" iyz="0.0" izz="0.000324"/>
    </inertial>
    <visual>
      <origin xyz="0.07619999999999999 0.0635 -0.0005"/>
      <geometry>
        <box size="0.15239999999999998 0.127 0.001"/>
      </geometry>
      <material name="yellow_fabric"/>
    </visual>
    <collision>
      <origin xyz="0.07619999999999999 0.0635 -0.0005"/>
      <geometry>
        <box size="0.15239999999999998 0.127 0.001"/>
      </geometry>
    </collision>
  </link>
  <link name="pod_bin_3i_top">
    <inertial>
      <mass value="0.01"/>
      <inertia ixx="0.0002835" ixy="0.0" ixz="0.0" iyy="0.0002835" iyz="0.0" izz="0.000324"/>
    </inertial>
    <visual>
      <origin xyz="0.1143 0.07619999999999999 -0.0005"/>
      <geometry>
        <box size="0.2286 0.15239999999999998 0.001"/>
      </geometry>
      <material name="yellow_fabric"/>
    </visual>
    <collision>
      <origin xyz="0.1143 0.07619999999999999 -0.0005"/>
      <geometry>
        <box size="0.2286 0.15239999999999998 0.001"/>
      </geometry>
    </collision>
  </link>
  <link name="pod_bin_3i_back">
    <inertial>
      <mass value="0.01"/>
      <inertia ixx="0.0002835" ixy="0.0" ixz="0.0" iyy="0.0002835" iyz="0.0" izz="0.000324"/>
    </inertial>
    <visual>
      <origin xyz="0.1143 0.0635 -0.0005"/>
      <geometry>
        <box size="0.2286 0.127 0.001"/>
      </geometry>
      <material name="yellow_fabric"/>
    </visual>
    <collision>
      <origin xyz="0.1143 0.0635 -0.0005"/>
      <geometry>
        <box size="0.2286 0.127 0.001"/>
      </geometry>
    </collision>
  </link>
  <link name="pod_bin_3i_flap">
    <inertial>
      <mass value="0.01"/>
      <inertia ixx="0.0002835" ixy="0.0" ixz="0.0" iyy="0.0002835" iyz="0.0" izz="0.000324"/>
    </inertial>
    <visual>
      <origin xyz="0.1143 0.0127 -0.0005"/>
      <geometry>
        <box size="0.2286 0.0254 0.001"/>
      </geometry>
      <material name="yellow_fabric"/>
    </visual>
    <collision>
      <origin xyz="0.1143 0.0127 -0.0005"/>
      <geometry>
        <box size="0.2286 0.0254 0.001"/>
      </geometry>
    </collision>
  </link>
  <joint name="pod_bin_3i_pod_bin_3i_bottom" type="fixed">
    <parent link="pod_bin_3i"/>
    <child link="pod_bin_3i_bottom"/>
  </joint>
  <joint name="pod_bin_3i_pod_bin_3i_left" type="fixed">
    <origin rpy="1.5707963267948966 0 1.5707963267948966 " xyz="0 0 0"/>
    <parent link="pod_bin_3i"/>
    <child link="pod_bin_3i_left"/>
  </joint>
  <joint name="pod_bin_3i_pod_bin_3i_right" type="fixed">
    <origin rpy="1.5707963267948966 0 1.5707963267948966 " xyz="0.2286 0 0"/>
    <parent link="pod_bin_3i"/>
    <child link="pod_bin_3i_right"/>
  </joint>
  <joint name="pod_bin_3i_pod_bin_3i_top" type="fixed">
    <origin rpy="0 0 0" xyz="0 0 0.127"/>
    <parent link="pod_bin_3i"/>
    <child link="pod_bin_3i_top"/>
  </joint>
  <joint name="pod_bin_3i_pod_bin_3i_back" type="fixed">
    <origin rpy="1.5707963267948966 0 0" xyz="0 0.15239999999999998 0"/>
    <parent link="pod_bin_3i"/>
    <child link="pod_bin_3i_back"/>
  </joint>
  <joint name="pod_bin_3i_pod_bin_3i_flap" type="fixed">
    <origin rpy="1.5707963267948966 0 0" xyz="0 0 0"/>
    <parent link="pod_bin_3i"/>
    <child link="pod_bin_3i_flap"/>
  </joint>
  <joint name="pod_shelf_i_pod_bin_3i_joint" type="fixed">
    <origin xyz="0.4572 0 0"/>
    <parent link="pod_shelf_i"/>
    <child link="pod_bin_3i"/>
  </joint>
  <link name="pod_bin_4i"/>
  <link name="pod_bin_4i_bottom">
    <inertial>
      <mass value="0.01"/>
      <inertia ixx="0.0002835" ixy="0.0" ixz="0.0" iyy="0.0002835" iyz="0.0" izz="0.000324"/>
    </inertial>
    <visual>
      <origin xyz="0.1143 0.07619999999999999 -0.0005"/>
      <geometry>
        <box size="0.2286 0.15239999999999998 0.001"/>
      </geometry>
      <material name="yellow_fabric"/>
    </visual>
    <collision>
      <origin xyz="0.1143 0.07619999999999999 -0.0005"/>
      <geometry>
        <box size="0.2286 0.15239999999999998 0.001"/>
      </geometry>
    </collision>
  </link>
  <link name="pod_bin_4i_left">
    <inertial>
      <mass value="0.01"/>
      <inertia ixx="0.0002835" ixy="0.0" ixz="0.0" iyy="0.0002835" iyz="0.0" izz="0.000324"/>
    </inertial>
    <visual>
      <origin xyz="0.07619999999999999 0.0635 -0.0005"/>
      <geometry>
        <box size="0.15239999999999998 0.127 0.001"/>
      </geometry>
      <material name="yellow_fabric"/>
    </visual>
    <collision>
      <origin xyz="0.07619999999999999 0.0635 -0.0005"/>
      <geometry>
        <box size="0.15239999999999998 0.127 0.001"/>
      </geometry>
    </collision>
  </link>
  <link name="pod_bin_4i_right">
    <inertial>
      <mass value="0.01"/>
      <inertia ixx="0.0002835" ixy="0.0" ixz="0.0" iyy="0.0002835" iyz="0.0" izz="0.000324"/>
    </inertial>
    <visual>
      <origin xyz="0.07619999999999999 0.0635 -0.0005"/>
      <geometry>
        <box size="0.15239999999999998 0.127 0.001"/>
      </geometry>
      <material name="yellow_fabric"/>
    </visual>
    <collision>
      <origin xyz="0.07619999999999999 0.0635 -0.0005"/>
      <geometry>
        <box size="0.15239999999999998 0.127 0.001"/>
      </geometry>
    </collision>
  </link>
  <link name="pod_bin_4i_top">
    <inertial>
      <mass value="0.01"/>
      <inertia ixx="0.0002835" ixy="0.0" ixz="0.0" iyy="0.0002835" iyz="0.0" izz="0.000324"/>
    </inertial>
    <visual>
      <origin xyz="0.1143 0.07619999999999999 -0.0005"/>
      <geometry>
        <box size="0.2286 0.15239999999999998 0.001"/>
      </geometry>
      <material name="yellow_fabric"/>
    </visual>
    <collision>
      <origin xyz="0.1143 0.07619999999999999 -0.0005"/>
      <geometry>
        <box size="0.2286 0.15239999999999998 0.001"/>
      </geometry>
    </collision>
  </link>
  <link name="pod_bin_4i_back">
    <inertial>
      <mass value="0.01"/>
      <inertia ixx="0.0002835" ixy="0.0" ixz="0.0" iyy="0.0002835" iyz="0.0" izz="0.000324"/>
    </inertial>
    <visual>
      <origin xyz="0.1143 0.0635 -0.0005"/>
      <geometry>
        <box size="0.2286 0.127 0.001"/>
      </geometry>
      <material name="yellow_fabric"/>
    </visual>
    <collision>
      <origin xyz="0.1143 0.0635 -0.0005"/>
      <geometry>
        <box size="0.2286 0.127 0.001"/>
      </geometry>
    </collision>
  </link>
  <link name="pod_bin_4i_flap">
    <inertial>
      <mass value="0.01"/>
      <inertia ixx="0.0002835" ixy="0.0" ixz="0.0" iyy="0.0002835" iyz="0.0" izz="0.000324"/>
    </inertial>
    <visual>
      <origin xyz="0.1143 0.0127 -0.0005"/>
      <geometry>
        <box size="0.2286 0.0254 0.001"/>
      </geometry>
      <material name="yellow_fabric"/>
    </visual>
    <collision>
      <origin xyz="0.1143 0.0127 -0.0005"/>
      <geometry>
        <box size="0.2286 0.0254 0.001"/>
      </geometry>
    </collision>
  </link>
  <joint name="pod_bin_4i_pod_bin_4i_bottom" type="fixed">
    <parent link="pod_bin_4i"/>
    <child link="pod_bin_4i_bottom"/>
  </joint>
  <joint name="pod_bin_4i_pod_bin_4i_left" type="fixed">
    <origin rpy="1.5707963267948966 0 1.5707963267948966 " xyz="0 0 0"/>
    <parent link="pod_bin_4i"/>
    <child link="pod_bin_4i_left"/>
  </joint>
  <joint name="pod_bin_4i_pod_bin_4i_right" type="fixed">
    <origin rpy="1.5707963267948966 0 1.5707963267948966 " xyz="0.2286 0 0"/>
    <parent link="pod_bin_4i"/>
    <child link="pod_bin_4i_right"/>
  </joint>
  <joint name="pod_bin_4i_pod_bin_4i_top" type="fixed">
    <origin rpy="0 0 0" xyz="0 0 0.127"/>
    <parent link="pod_bin_4i"/>
    <child link="pod_bin_4i_top"/>
  </joint>
  <joint name="pod_bin_4i_pod_bin_4i_back" type="fixed">
    <origin rpy="1.5707963267948966 0 0" xyz="0 0.15239999999999998 0"/>
    <parent link="pod_bin_4i"/>
    <child link="pod_bin_4i_back"/>
  </joint>
  <joint name="pod_bin_4i_pod_bin_4i_flap" type="fixed">
    <origin rpy="1.5707963267948966 0 0" xyz="0 0 0"/>
    <parent link="pod_bin_4i"/>
    <child link="pod_bin_4i_flap"/>
  </joint>
  <joint name="pod_shelf_i_pod_bin_4i_joint" type="fixed">
    <origin xyz="0.6858 0 0"/>
    <parent link="pod_shelf_i"/>
    <child link="pod_bin_4i"/>
  </joint>
  <joint name="pod_fabric_base_pod_shelf_i_joint" type="fixed">
    <origin xyz="0 0 1.3207999999999998"/>
    <parent link="pod_fabric_base"/>
    <child link="pod_shelf_i"/>
  </joint>
  <link name="pod_shelf_j"/>
  <link name="pod_bin_1j"/>
  <link name="pod_bin_1j_bottom">
    <inertial>
      <mass value="0.01"/>
      <inertia ixx="0.0002835" ixy="0.0" ixz="0.0" iyy="0.0002835" iyz="0.0" izz="0.000324"/>
    </inertial>
    <visual>
      <origin xyz="0.1143 0.07619999999999999 -0.0005"/>
      <geometry>
        <box size="0.2286 0.15239999999999998 0.001"/>
      </geometry>
      <material name="yellow_fabric"/>
    </visual>
    <collision>
      <origin xyz="0.1143 0.07619999999999999 -0.0005"/>
      <geometry>
        <box size="0.2286 0.15239999999999998 0.001"/>
      </geometry>
    </collision>
  </link>
  <link name="pod_bin_1j_left">
    <inertial>
      <mass value="0.01"/>
      <inertia ixx="0.0002835" ixy="0.0" ixz="0.0" iyy="0.0002835" iyz="0.0" izz="0.000324"/>
    </inertial>
    <visual>
      <origin xyz="0.07619999999999999 0.111125 -0.0005"/>
      <geometry>
        <box size="0.15239999999999998 0.22225 0.001"/>
      </geometry>
      <material name="yellow_fabric"/>
    </visual>
    <collision>
      <origin xyz="0.07619999999999999 0.111125 -0.0005"/>
      <geometry>
        <box size="0.15239999999999998 0.22225 0.001"/>
      </geometry>
    </collision>
  </link>
  <link name="pod_bin_1j_right">
    <inertial>
      <mass value="0.01"/>
      <inertia ixx="0.0002835" ixy="0.0" ixz="0.0" iyy="0.0002835" iyz="0.0" izz="0.000324"/>
    </inertial>
    <visual>
      <origin xyz="0.07619999999999999 0.111125 -0.0005"/>
      <geometry>
        <box size="0.15239999999999998 0.22225 0.001"/>
      </geometry>
      <material name="yellow_fabric"/>
    </visual>
    <collision>
      <origin xyz="0.07619999999999999 0.111125 -0.0005"/>
      <geometry>
        <box size="0.15239999999999998 0.22225 0.001"/>
      </geometry>
    </collision>
  </link>
  <link name="pod_bin_1j_top">
    <inertial>
      <mass value="0.01"/>
      <inertia ixx="0.0002835" ixy="0.0" ixz="0.0" iyy="0.0002835" iyz="0.0" izz="0.000324"/>
    </inertial>
    <visual>
      <origin xyz="0.1143 0.07619999999999999 -0.0005"/>
      <geometry>
        <box size="0.2286 0.15239999999999998 0.001"/>
      </geometry>
      <material name="yellow_fabric"/>
    </visual>
    <collision>
      <origin xyz="0.1143 0.07619999999999999 -0.0005"/>
      <geometry>
        <box size="0.2286 0.15239999999999998 0.001"/>
      </geometry>
    </collision>
  </link>
  <link name="pod_bin_1j_back">
    <inertial>
      <mass value="0.01"/>
      <inertia ixx="0.0002835" ixy="0.0" ixz="0.0" iyy="0.0002835" iyz="0.0" izz="0.000324"/>
    </inertial>
    <visual>
      <origin xyz="0.1143 0.111125 -0.0005"/>
      <geometry>
        <box size="0.2286 0.22225 0.001"/>
      </geometry>
      <material name="yellow_fabric"/>
    </visual>
    <collision>
      <origin xyz="0.1143 0.111125 -0.0005"/>
      <geometry>
        <box size="0.2286 0.22225 0.001"/>
      </geometry>
    </collision>
  </link>
  <link name="pod_bin_1j_flap">
    <inertial>
      <mass value="0.01"/>
      <inertia ixx="0.0002835" ixy="0.0" ixz="0.0" iyy="0.0002835" iyz="0.0" izz="0.000324"/>
    </inertial>
    <visual>
      <origin xyz="0.1143 0.0127 -0.0005"/>
      <geometry>
        <box size="0.2286 0.0254 0.001"/>
      </geometry>
      <material name="yellow_fabric"/>
    </visual>
    <collision>
      <origin xyz="0.1143 0.0127 -0.0005"/>
      <geometry>
        <box size="0.2286 0.0254 0.001"/>
      </geometry>
    </collision>
  </link>
  <joint name="pod_bin_1j_pod_bin_1j_bottom" type="fixed">
    <parent link="pod_bin_1j"/>
    <child link="pod_bin_1j_bottom"/>
  </joint>
  <joint name="pod_bin_1j_pod_bin_1j_left" type="fixed">
    <origin rpy="1.5707963267948966 0 1.5707963267948966 " xyz="0 0 0"/>
    <parent link="pod_bin_1j"/>
    <child link="pod_bin_1j_left"/>
  </joint>
  <joint name="pod_bin_1j_pod_bin_1j_right" type="fixed">
    <origin rpy="1.5707963267948966 0 1.5707963267948966 " xyz="0.2286 0 0"/>
    <parent link="pod_bin_1j"/>
    <child link="pod_bin_1j_right"/>
  </joint>
  <joint name="pod_bin_1j_pod_bin_1j_top" type="fixed">
    <origin rpy="0 0 0" xyz="0 0 0.22225"/>
    <parent link="pod_bin_1j"/>
    <child link="pod_bin_1j_top"/>
  </joint>
  <joint name="pod_bin_1j_pod_bin_1j_back" type="fixed">
    <origin rpy="1.5707963267948966 0 0" xyz="0 0.15239999999999998 0"/>
    <parent link="pod_bin_1j"/>
    <child link="pod_bin_1j_back"/>
  </joint>
  <joint name="pod_bin_1j_pod_bin_1j_flap" type="fixed">
    <origin rpy="1.5707963267948966 0 0" xyz="0 0 0"/>
    <parent link="pod_bin_1j"/>
    <child link="pod_bin_1j_flap"/>
  </joint>
  <joint name="pod_shelf_j_pod_bin_1j_joint" type="fixed">
    <origin xyz="0.0 0 0"/>
    <parent link="pod_shelf_j"/>
    <child link="pod_bin_1j"/>
  </joint>
  <link name="pod_bin_2j"/>
  <link name="pod_bin_2j_bottom">
    <inertial>
      <mass value="0.01"/>
      <inertia ixx="0.0002835" ixy="0.0" ixz="0.0" iyy="0.0002835" iyz="0.0" izz="0.000324"/>
    </inertial>
    <visual>
      <origin xyz="0.1143 0.07619999999999999 -0.0005"/>
      <geometry>
        <box size="0.2286 0.15239999999999998 0.001"/>
      </geometry>
      <material name="yellow_fabric"/>
    </visual>
    <collision>
      <origin xyz="0.1143 0.07619999999999999 -0.0005"/>
      <geometry>
        <box size="0.2286 0.15239999999999998 0.001"/>
      </geometry>
    </collision>
  </link>
  <link name="pod_bin_2j_left">
    <inertial>
      <mass value="0.01"/>
      <inertia ixx="0.0002835" ixy="0.0" ixz="0.0" iyy="0.0002835" iyz="0.0" izz="0.000324"/>
    </inertial>
    <visual>
      <origin xyz="0.07619999999999999 0.111125 -0.0005"/>
      <geometry>
        <box size="0.15239999999999998 0.22225 0.001"/>
      </geometry>
      <material name="yellow_fabric"/>
    </visual>
    <collision>
      <origin xyz="0.07619999999999999 0.111125 -0.0005"/>
      <geometry>
        <box size="0.15239999999999998 0.22225 0.001"/>
      </geometry>
    </collision>
  </link>
  <link name="pod_bin_2j_right">
    <inertial>
      <mass value="0.01"/>
      <inertia ixx="0.0002835" ixy="0.0" ixz="0.0" iyy="0.0002835" iyz="0.0" izz="0.000324"/>
    </inertial>
    <visual>
      <origin xyz="0.07619999999999999 0.111125 -0.0005"/>
      <geometry>
        <box size="0.15239999999999998 0.22225 0.001"/>
      </geometry>
      <material name="yellow_fabric"/>
    </visual>
    <collision>
      <origin xyz="0.07619999999999999 0.111125 -0.0005"/>
      <geometry>
        <box size="0.15239999999999998 0.22225 0.001"/>
      </geometry>
    </collision>
  </link>
  <link name="pod_bin_2j_top">
    <inertial>
      <mass value="0.01"/>
      <inertia ixx="0.0002835" ixy="0.0" ixz="0.0" iyy="0.0002835" iyz="0.0" izz="0.000324"/>
    </inertial>
    <visual>
      <origin xyz="0.1143 0.07619999999999999 -0.0005"/>
      <geometry>
        <box size="0.2286 0.15239999999999998 0.001"/>
      </geometry>
      <material name="yellow_fabric"/>
    </visual>
    <collision>
      <origin xyz="0.1143 0.07619999999999999 -0.0005"/>
      <geometry>
        <box size="0.2286 0.15239999999999998 0.001"/>
      </geometry>
    </collision>
  </link>
  <link name="pod_bin_2j_back">
    <inertial>
      <mass value="0.01"/>
      <inertia ixx="0.0002835" ixy="0.0" ixz="0.0" iyy="0.0002835" iyz="0.0" izz="0.000324"/>
    </inertial>
    <visual>
      <origin xyz="0.1143 0.111125 -0.0005"/>
      <geometry>
        <box size="0.2286 0.22225 0.001"/>
      </geometry>
      <material name="yellow_fabric"/>
    </visual>
    <collision>
      <origin xyz="0.1143 0.111125 -0.0005"/>
      <geometry>
        <box size="0.2286 0.22225 0.001"/>
      </geometry>
    </collision>
  </link>
  <link name="pod_bin_2j_flap">
    <inertial>
      <mass value="0.01"/>
      <inertia ixx="0.0002835" ixy="0.0" ixz="0.0" iyy="0.0002835" iyz="0.0" izz="0.000324"/>
    </inertial>
    <visual>
      <origin xyz="0.1143 0.0127 -0.0005"/>
      <geometry>
        <box size="0.2286 0.0254 0.001"/>
      </geometry>
      <material name="yellow_fabric"/>
    </visual>
    <collision>
      <origin xyz="0.1143 0.0127 -0.0005"/>
      <geometry>
        <box size="0.2286 0.0254 0.001"/>
      </geometry>
    </collision>
  </link>
  <joint name="pod_bin_2j_pod_bin_2j_bottom" type="fixed">
    <parent link="pod_bin_2j"/>
    <child link="pod_bin_2j_bottom"/>
  </joint>
  <joint name="pod_bin_2j_pod_bin_2j_left" type="fixed">
    <origin rpy="1.5707963267948966 0 1.5707963267948966 " xyz="0 0 0"/>
    <parent link="pod_bin_2j"/>
    <child link="pod_bin_2j_left"/>
  </joint>
  <joint name="pod_bin_2j_pod_bin_2j_right" type="fixed">
    <origin rpy="1.5707963267948966 0 1.5707963267948966 " xyz="0.2286 0 0"/>
    <parent link="pod_bin_2j"/>
    <child link="pod_bin_2j_right"/>
  </joint>
  <joint name="pod_bin_2j_pod_bin_2j_top" type="fixed">
    <origin rpy="0 0 0" xyz="0 0 0.22225"/>
    <parent link="pod_bin_2j"/>
    <child link="pod_bin_2j_top"/>
  </joint>
  <joint name="pod_bin_2j_pod_bin_2j_back" type="fixed">
    <origin rpy="1.5707963267948966 0 0" xyz="0 0.15239999999999998 0"/>
    <parent link="pod_bin_2j"/>
    <child link="pod_bin_2j_back"/>
  </joint>
  <joint name="pod_bin_2j_pod_bin_2j_flap" type="fixed">
    <origin rpy="1.5707963267948966 0 0" xyz="0 0 0"/>
    <parent link="pod_bin_2j"/>
    <child link="pod_bin_2j_flap"/>
  </joint>
  <joint name="pod_shelf_j_pod_bin_2j_joint" type="fixed">
    <origin xyz="0.2286 0 0"/>
    <parent link="pod_shelf_j"/>
    <child link="pod_bin_2j"/>
  </joint>
  <link name="pod_bin_3j"/>
  <link name="pod_bin_3j_bottom">
    <inertial>
      <mass value="0.01"/>
      <inertia ixx="0.0002835" ixy="0.0" ixz="0.0" iyy="0.0002835" iyz="0.0" izz="0.000324"/>
    </inertial>
    <visual>
      <origin xyz="0.1143 0.07619999999999999 -0.0005"/>
      <geometry>
        <box size="0.2286 0.15239999999999998 0.001"/>
      </geometry>
      <material name="yellow_fabric"/>
    </visual>
    <collision>
      <origin xyz="0.1143 0.07619999999999999 -0.0005"/>
      <geometry>
        <box size="0.2286 0.15239999999999998 0.001"/>
      </geometry>
    </collision>
  </link>
  <link name="pod_bin_3j_left">
    <inertial>
      <mass value="0.01"/>
      <inertia ixx="0.0002835" ixy="0.0" ixz="0.0" iyy="0.0002835" iyz="0.0" izz="0.000324"/>
    </inertial>
    <visual>
      <origin xyz="0.07619999999999999 0.111125 -0.0005"/>
      <geometry>
        <box size="0.15239999999999998 0.22225 0.001"/>
      </geometry>
      <material name="yellow_fabric"/>
    </visual>
    <collision>
      <origin xyz="0.07619999999999999 0.111125 -0.0005"/>
      <geometry>
        <box size="0.15239999999999998 0.22225 0.001"/>
      </geometry>
    </collision>
  </link>
  <link name="pod_bin_3j_right">
    <inertial>
      <mass value="0.01"/>
      <inertia ixx="0.0002835" ixy="0.0" ixz="0.0" iyy="0.0002835" iyz="0.0" izz="0.000324"/>
    </inertial>
    <visual>
      <origin xyz="0.07619999999999999 0.111125 -0.0005"/>
      <geometry>
        <box size="0.15239999999999998 0.22225 0.001"/>
      </geometry>
      <material name="yellow_fabric"/>
    </visual>
    <collision>
      <origin xyz="0.07619999999999999 0.111125 -0.0005"/>
      <geometry>
        <box size="0.15239999999999998 0.22225 0.001"/>
      </geometry>
    </collision>
  </link>
  <link name="pod_bin_3j_top">
    <inertial>
      <mass value="0.01"/>
      <inertia ixx="0.0002835" ixy="0.0" ixz="0.0" iyy="0.0002835" iyz="0.0" izz="0.000324"/>
    </inertial>
    <visual>
      <origin xyz="0.1143 0.07619999999999999 -0.0005"/>
      <geometry>
        <box size="0.2286 0.15239999999999998 0.001"/>
      </geometry>
      <material name="yellow_fabric"/>
    </visual>
    <collision>
      <origin xyz="0.1143 0.07619999999999999 -0.0005"/>
      <geometry>
        <box size="0.2286 0.15239999999999998 0.001"/>
      </geometry>
    </collision>
  </link>
  <link name="pod_bin_3j_back">
    <inertial>
      <mass value="0.01"/>
      <inertia ixx="0.0002835" ixy="0.0" ixz="0.0" iyy="0.0002835" iyz="0.0" izz="0.000324"/>
    </inertial>
    <visual>
      <origin xyz="0.1143 0.111125 -0.0005"/>
      <geometry>
        <box size="0.2286 0.22225 0.001"/>
      </geometry>
      <material name="yellow_fabric"/>
    </visual>
    <collision>
      <origin xyz="0.1143 0.111125 -0.0005"/>
      <geometry>
        <box size="0.2286 0.22225 0.001"/>
      </geometry>
    </collision>
  </link>
  <link name="pod_bin_3j_flap">
    <inertial>
      <mass value="0.01"/>
      <inertia ixx="0.0002835" ixy="0.0" ixz="0.0" iyy="0.0002835" iyz="0.0" izz="0.000324"/>
    </inertial>
    <visual>
      <origin xyz="0.1143 0.0127 -0.0005"/>
      <geometry>
        <box size="0.2286 0.0254 0.001"/>
      </geometry>
      <material name="yellow_fabric"/>
    </visual>
    <collision>
      <origin xyz="0.1143 0.0127 -0.0005"/>
      <geometry>
        <box size="0.2286 0.0254 0.001"/>
      </geometry>
    </collision>
  </link>
  <joint name="pod_bin_3j_pod_bin_3j_bottom" type="fixed">
    <parent link="pod_bin_3j"/>
    <child link="pod_bin_3j_bottom"/>
  </joint>
  <joint name="pod_bin_3j_pod_bin_3j_left" type="fixed">
    <origin rpy="1.5707963267948966 0 1.5707963267948966 " xyz="0 0 0"/>
    <parent link="pod_bin_3j"/>
    <child link="pod_bin_3j_left"/>
  </joint>
  <joint name="pod_bin_3j_pod_bin_3j_right" type="fixed">
    <origin rpy="1.5707963267948966 0 1.5707963267948966 " xyz="0.2286 0 0"/>
    <parent link="pod_bin_3j"/>
    <child link="pod_bin_3j_right"/>
  </joint>
  <joint name="pod_bin_3j_pod_bin_3j_top" type="fixed">
    <origin rpy="0 0 0" xyz="0 0 0.22225"/>
    <parent link="pod_bin_3j"/>
    <child link="pod_bin_3j_top"/>
  </joint>
  <joint name="pod_bin_3j_pod_bin_3j_back" type="fixed">
    <origin rpy="1.5707963267948966 0 0" xyz="0 0.15239999999999998 0"/>
    <parent link="pod_bin_3j"/>
    <child link="pod_bin_3j_back"/>
  </joint>
  <joint name="pod_bin_3j_pod_bin_3j_flap" type="fixed">
    <origin rpy="1.5707963267948966 0 0" xyz="0 0 0"/>
    <parent link="pod_bin_3j"/>
    <child link="pod_bin_3j_flap"/>
  </joint>
  <joint name="pod_shelf_j_pod_bin_3j_joint" type="fixed">
    <origin xyz="0.4572 0 0"/>
    <parent link="pod_shelf_j"/>
    <child link="pod_bin_3j"/>
  </joint>
  <link name="pod_bin_4j"/>
  <link name="pod_bin_4j_bottom">
    <inertial>
      <mass value="0.01"/>
      <inertia ixx="0.0002835" ixy="0.0" ixz="0.0" iyy="0.0002835" iyz="0.0" izz="0.000324"/>
    </inertial>
    <visual>
      <origin xyz="0.1143 0.07619999999999999 -0.0005"/>
      <geometry>
        <box size="0.2286 0.15239999999999998 0.001"/>
      </geometry>
      <material name="yellow_fabric"/>
    </visual>
    <collision>
      <origin xyz="0.1143 0.07619999999999999 -0.0005"/>
      <geometry>
        <box size="0.2286 0.15239999999999998 0.001"/>
      </geometry>
    </collision>
  </link>
  <link name="pod_bin_4j_left">
    <inertial>
      <mass value="0.01"/>
      <inertia ixx="0.0002835" ixy="0.0" ixz="0.0" iyy="0.0002835" iyz="0.0" izz="0.000324"/>
    </inertial>
    <visual>
      <origin xyz="0.07619999999999999 0.111125 -0.0005"/>
      <geometry>
        <box size="0.15239999999999998 0.22225 0.001"/>
      </geometry>
      <material name="yellow_fabric"/>
    </visual>
    <collision>
      <origin xyz="0.07619999999999999 0.111125 -0.0005"/>
      <geometry>
        <box size="0.15239999999999998 0.22225 0.001"/>
      </geometry>
    </collision>
  </link>
  <link name="pod_bin_4j_right">
    <inertial>
      <mass value="0.01"/>
      <inertia ixx="0.0002835" ixy="0.0" ixz="0.0" iyy="0.0002835" iyz="0.0" izz="0.000324"/>
    </inertial>
    <visual>
      <origin xyz="0.07619999999999999 0.111125 -0.0005"/>
      <geometry>
        <box size="0.15239999999999998 0.22225 0.001"/>
      </geometry>
      <material name="yellow_fabric"/>
    </visual>
    <collision>
      <origin xyz="0.07619999999999999 0.111125 -0.0005"/>
      <geometry>
        <box size="0.15239999999999998 0.22225 0.001"/>
      </geometry>
    </collision>
  </link>
  <link name="pod_bin_4j_top">
    <inertial>
      <mass value="0.01"/>
      <inertia ixx="0.0002835" ixy="0.0" ixz="0.0" iyy="0.0002835" iyz="0.0" izz="0.000324"/>
    </inertial>
    <visual>
      <origin xyz="0.1143 0.07619999999999999 -0.0005"/>
      <geometry>
        <box size="0.2286 0.15239999999999998 0.001"/>
      </geometry>
      <material name="yellow_fabric"/>
    </visual>
    <collision>
      <origin xyz="0.1143 0.07619999999999999 -0.0005"/>
      <geometry>
        <box size="0.2286 0.15239999999999998 0.001"/>
      </geometry>
    </collision>
  </link>
  <link name="pod_bin_4j_back">
    <inertial>
      <mass value="0.01"/>
      <inertia ixx="0.0002835" ixy="0.0" ixz="0.0" iyy="0.0002835" iyz="0.0" izz="0.000324"/>
    </inertial>
    <visual>
      <origin xyz="0.1143 0.111125 -0.0005"/>
      <geometry>
        <box size="0.2286 0.22225 0.001"/>
      </geometry>
      <material name="yellow_fabric"/>
    </visual>
    <collision>
      <origin xyz="0.1143 0.111125 -0.0005"/>
      <geometry>
        <box size="0.2286 0.22225 0.001"/>
      </geometry>
    </collision>
  </link>
  <link name="pod_bin_4j_flap">
    <inertial>
      <mass value="0.01"/>
      <inertia ixx="0.0002835" ixy="0.0" ixz="0.0" iyy="0.0002835" iyz="0.0" izz="0.000324"/>
    </inertial>
    <visual>
      <origin xyz="0.1143 0.0127 -0.0005"/>
      <geometry>
        <box size="0.2286 0.0254 0.001"/>
      </geometry>
      <material name="yellow_fabric"/>
    </visual>
    <collision>
      <origin xyz="0.1143 0.0127 -0.0005"/>
      <geometry>
        <box size="0.2286 0.0254 0.001"/>
      </geometry>
    </collision>
  </link>
  <joint name="pod_bin_4j_pod_bin_4j_bottom" type="fixed">
    <parent link="pod_bin_4j"/>
    <child link="pod_bin_4j_bottom"/>
  </joint>
  <joint name="pod_bin_4j_pod_bin_4j_left" type="fixed">
    <origin rpy="1.5707963267948966 0 1.5707963267948966 " xyz="0 0 0"/>
    <parent link="pod_bin_4j"/>
    <child link="pod_bin_4j_left"/>
  </joint>
  <joint name="pod_bin_4j_pod_bin_4j_right" type="fixed">
    <origin rpy="1.5707963267948966 0 1.5707963267948966 " xyz="0.2286 0 0"/>
    <parent link="pod_bin_4j"/>
    <child link="pod_bin_4j_right"/>
  </joint>
  <joint name="pod_bin_4j_pod_bin_4j_top" type="fixed">
    <origin rpy="0 0 0" xyz="0 0 0.22225"/>
    <parent link="pod_bin_4j"/>
    <child link="pod_bin_4j_top"/>
  </joint>
  <joint name="pod_bin_4j_pod_bin_4j_back" type="fixed">
    <origin rpy="1.5707963267948966 0 0" xyz="0 0.15239999999999998 0"/>
    <parent link="pod_bin_4j"/>
    <child link="pod_bin_4j_back"/>
  </joint>
  <joint name="pod_bin_4j_pod_bin_4j_flap" type="fixed">
    <origin rpy="1.5707963267948966 0 0" xyz="0 0 0"/>
    <parent link="pod_bin_4j"/>
    <child link="pod_bin_4j_flap"/>
  </joint>
  <joint name="pod_shelf_j_pod_bin_4j_joint" type="fixed">
    <origin xyz="0.6858 0 0"/>
    <parent link="pod_shelf_j"/>
    <child link="pod_bin_4j"/>
  </joint>
  <joint name="pod_fabric_base_pod_shelf_j_joint" type="fixed">
    <origin xyz="0 0 1.4477999999999998"/>
    <parent link="pod_fabric_base"/>
    <child link="pod_shelf_j"/>
  </joint>
  <link name="pod_shelf_k"/>
  <link name="pod_bin_1k"/>
  <link name="pod_bin_1k_bottom">
    <inertial>
      <mass value="0.01"/>
      <inertia ixx="0.0002835" ixy="0.0" ixz="0.0" iyy="0.0002835" iyz="0.0" izz="0.000324"/>
    </inertial>
    <visual>
      <origin xyz="0.1143 0.07619999999999999 -0.0005"/>
      <geometry>
        <box size="0.2286 0.15239999999999998 0.001"/>
      </geometry>
      <material name="yellow_fabric"/>
    </visual>
    <collision>
      <origin xyz="0.1143 0.07619999999999999 -0.0005"/>
      <geometry>
        <box size="0.2286 0.15239999999999998 0.001"/>
      </geometry>
    </collision>
  </link>
  <link name="pod_bin_1k_left">
    <inertial>
      <mass value="0.01"/>
      <inertia ixx="0.0002835" ixy="0.0" ixz="0.0" iyy="0.0002835" iyz="0.0" izz="0.000324"/>
    </inertial>
    <visual>
      <origin xyz="0.07619999999999999 0.0635 -0.0005"/>
      <geometry>
        <box size="0.15239999999999998 0.127 0.001"/>
      </geometry>
      <material name="yellow_fabric"/>
    </visual>
    <collision>
      <origin xyz="0.07619999999999999 0.0635 -0.0005"/>
      <geometry>
        <box size="0.15239999999999998 0.127 0.001"/>
      </geometry>
    </collision>
  </link>
  <link name="pod_bin_1k_right">
    <inertial>
      <mass value="0.01"/>
      <inertia ixx="0.0002835" ixy="0.0" ixz="0.0" iyy="0.0002835" iyz="0.0" izz="0.000324"/>
    </inertial>
    <visual>
      <origin xyz="0.07619999999999999 0.0635 -0.0005"/>
      <geometry>
        <box size="0.15239999999999998 0.127 0.001"/>
      </geometry>
      <material name="yellow_fabric"/>
    </visual>
    <collision>
      <origin xyz="0.07619999999999999 0.0635 -0.0005"/>
      <geometry>
        <box size="0.15239999999999998 0.127 0.001"/>
      </geometry>
    </collision>
  </link>
  <link name="pod_bin_1k_top">
    <inertial>
      <mass value="0.01"/>
      <inertia ixx="0.0002835" ixy="0.0" ixz="0.0" iyy="0.0002835" iyz="0.0" izz="0.000324"/>
    </inertial>
    <visual>
      <origin xyz="0.1143 0.07619999999999999 -0.0005"/>
      <geometry>
        <box size="0.2286 0.15239999999999998 0.001"/>
      </geometry>
      <material name="yellow_fabric"/>
    </visual>
    <collision>
      <origin xyz="0.1143 0.07619999999999999 -0.0005"/>
      <geometry>
        <box size="0.2286 0.15239999999999998 0.001"/>
      </geometry>
    </collision>
  </link>
  <link name="pod_bin_1k_back">
    <inertial>
      <mass value="0.01"/>
      <inertia ixx="0.0002835" ixy="0.0" ixz="0.0" iyy="0.0002835" iyz="0.0" izz="0.000324"/>
    </inertial>
    <visual>
      <origin xyz="0.1143 0.0635 -0.0005"/>
      <geometry>
        <box size="0.2286 0.127 0.001"/>
      </geometry>
      <material name="yellow_fabric"/>
    </visual>
    <collision>
      <origin xyz="0.1143 0.0635 -0.0005"/>
      <geometry>
        <box size="0.2286 0.127 0.001"/>
      </geometry>
    </collision>
  </link>
  <link name="pod_bin_1k_flap">
    <inertial>
      <mass value="0.01"/>
      <inertia ixx="0.0002835" ixy="0.0" ixz="0.0" iyy="0.0002835" iyz="0.0" izz="0.000324"/>
    </inertial>
    <visual>
      <origin xyz="0.1143 0.0127 -0.0005"/>
      <geometry>
        <box size="0.2286 0.0254 0.001"/>
      </geometry>
      <material name="yellow_fabric"/>
    </visual>
    <collision>
      <origin xyz="0.1143 0.0127 -0.0005"/>
      <geometry>
        <box size="0.2286 0.0254 0.001"/>
      </geometry>
    </collision>
  </link>
  <joint name="pod_bin_1k_pod_bin_1k_bottom" type="fixed">
    <parent link="pod_bin_1k"/>
    <child link="pod_bin_1k_bottom"/>
  </joint>
  <joint name="pod_bin_1k_pod_bin_1k_left" type="fixed">
    <origin rpy="1.5707963267948966 0 1.5707963267948966 " xyz="0 0 0"/>
    <parent link="pod_bin_1k"/>
    <child link="pod_bin_1k_left"/>
  </joint>
  <joint name="pod_bin_1k_pod_bin_1k_right" type="fixed">
    <origin rpy="1.5707963267948966 0 1.5707963267948966 " xyz="0.2286 0 0"/>
    <parent link="pod_bin_1k"/>
    <child link="pod_bin_1k_right"/>
  </joint>
  <joint name="pod_bin_1k_pod_bin_1k_top" type="fixed">
    <origin rpy="0 0 0" xyz="0 0 0.127"/>
    <parent link="pod_bin_1k"/>
    <child link="pod_bin_1k_top"/>
  </joint>
  <joint name="pod_bin_1k_pod_bin_1k_back" type="fixed">
    <origin rpy="1.5707963267948966 0 0" xyz="0 0.15239999999999998 0"/>
    <parent link="pod_bin_1k"/>
    <child link="pod_bin_1k_back"/>
  </joint>
  <joint name="pod_bin_1k_pod_bin_1k_flap" type="fixed">
    <origin rpy="1.5707963267948966 0 0" xyz="0 0 0"/>
    <parent link="pod_bin_1k"/>
    <child link="pod_bin_1k_flap"/>
  </joint>
  <joint name="pod_shelf_k_pod_bin_1k_joint" type="fixed">
    <origin xyz="0.0 0 0"/>
    <parent link="pod_shelf_k"/>
    <child link="pod_bin_1k"/>
  </joint>
  <link name="pod_bin_2k"/>
  <link name="pod_bin_2k_bottom">
    <inertial>
      <mass value="0.01"/>
      <inertia ixx="0.0002835" ixy="0.0" ixz="0.0" iyy="0.0002835" iyz="0.0" izz="0.000324"/>
    </inertial>
    <visual>
      <origin xyz="0.1143 0.07619999999999999 -0.0005"/>
      <geometry>
        <box size="0.2286 0.15239999999999998 0.001"/>
      </geometry>
      <material name="yellow_fabric"/>
    </visual>
    <collision>
      <origin xyz="0.1143 0.07619999999999999 -0.0005"/>
      <geometry>
        <box size="0.2286 0.15239999999999998 0.001"/>
      </geometry>
    </collision>
  </link>
  <link name="pod_bin_2k_left">
    <inertial>
      <mass value="0.01"/>
      <inertia ixx="0.0002835" ixy="0.0" ixz="0.0" iyy="0.0002835" iyz="0.0" izz="0.000324"/>
    </inertial>
    <visual>
      <origin xyz="0.07619999999999999 0.0635 -0.0005"/>
      <geometry>
        <box size="0.15239999999999998 0.127 0.001"/>
      </geometry>
      <material name="yellow_fabric"/>
    </visual>
    <collision>
      <origin xyz="0.07619999999999999 0.0635 -0.0005"/>
      <geometry>
        <box size="0.15239999999999998 0.127 0.001"/>
      </geometry>
    </collision>
  </link>
  <link name="pod_bin_2k_right">
    <inertial>
      <mass value="0.01"/>
      <inertia ixx="0.0002835" ixy="0.0" ixz="0.0" iyy="0.0002835" iyz="0.0" izz="0.000324"/>
    </inertial>
    <visual>
      <origin xyz="0.07619999999999999 0.0635 -0.0005"/>
      <geometry>
        <box size="0.15239999999999998 0.127 0.001"/>
      </geometry>
      <material name="yellow_fabric"/>
    </visual>
    <collision>
      <origin xyz="0.07619999999999999 0.0635 -0.0005"/>
      <geometry>
        <box size="0.15239999999999998 0.127 0.001"/>
      </geometry>
    </collision>
  </link>
  <link name="pod_bin_2k_top">
    <inertial>
      <mass value="0.01"/>
      <inertia ixx="0.0002835" ixy="0.0" ixz="0.0" iyy="0.0002835" iyz="0.0" izz="0.000324"/>
    </inertial>
    <visual>
      <origin xyz="0.1143 0.07619999999999999 -0.0005"/>
      <geometry>
        <box size="0.2286 0.15239999999999998 0.001"/>
      </geometry>
      <material name="yellow_fabric"/>
    </visual>
    <collision>
      <origin xyz="0.1143 0.07619999999999999 -0.0005"/>
      <geometry>
        <box size="0.2286 0.15239999999999998 0.001"/>
      </geometry>
    </collision>
  </link>
  <link name="pod_bin_2k_back">
    <inertial>
      <mass value="0.01"/>
      <inertia ixx="0.0002835" ixy="0.0" ixz="0.0" iyy="0.0002835" iyz="0.0" izz="0.000324"/>
    </inertial>
    <visual>
      <origin xyz="0.1143 0.0635 -0.0005"/>
      <geometry>
        <box size="0.2286 0.127 0.001"/>
      </geometry>
      <material name="yellow_fabric"/>
    </visual>
    <collision>
      <origin xyz="0.1143 0.0635 -0.0005"/>
      <geometry>
        <box size="0.2286 0.127 0.001"/>
      </geometry>
    </collision>
  </link>
  <link name="pod_bin_2k_flap">
    <inertial>
      <mass value="0.01"/>
      <inertia ixx="0.0002835" ixy="0.0" ixz="0.0" iyy="0.0002835" iyz="0.0" izz="0.000324"/>
    </inertial>
    <visual>
      <origin xyz="0.1143 0.0127 -0.0005"/>
      <geometry>
        <box size="0.2286 0.0254 0.001"/>
      </geometry>
      <material name="yellow_fabric"/>
    </visual>
    <collision>
      <origin xyz="0.1143 0.0127 -0.0005"/>
      <geometry>
        <box size="0.2286 0.0254 0.001"/>
      </geometry>
    </collision>
  </link>
  <joint name="pod_bin_2k_pod_bin_2k_bottom" type="fixed">
    <parent link="pod_bin_2k"/>
    <child link="pod_bin_2k_bottom"/>
  </joint>
  <joint name="pod_bin_2k_pod_bin_2k_left" type="fixed">
    <origin rpy="1.5707963267948966 0 1.5707963267948966 " xyz="0 0 0"/>
    <parent link="pod_bin_2k"/>
    <child link="pod_bin_2k_left"/>
  </joint>
  <joint name="pod_bin_2k_pod_bin_2k_right" type="fixed">
    <origin rpy="1.5707963267948966 0 1.5707963267948966 " xyz="0.2286 0 0"/>
    <parent link="pod_bin_2k"/>
    <child link="pod_bin_2k_right"/>
  </joint>
  <joint name="pod_bin_2k_pod_bin_2k_top" type="fixed">
    <origin rpy="0 0 0" xyz="0 0 0.127"/>
    <parent link="pod_bin_2k"/>
    <child link="pod_bin_2k_top"/>
  </joint>
  <joint name="pod_bin_2k_pod_bin_2k_back" type="fixed">
    <origin rpy="1.5707963267948966 0 0" xyz="0 0.15239999999999998 0"/>
    <parent link="pod_bin_2k"/>
    <child link="pod_bin_2k_back"/>
  </joint>
  <joint name="pod_bin_2k_pod_bin_2k_flap" type="fixed">
    <origin rpy="1.5707963267948966 0 0" xyz="0 0 0"/>
    <parent link="pod_bin_2k"/>
    <child link="pod_bin_2k_flap"/>
  </joint>
  <joint name="pod_shelf_k_pod_bin_2k_joint" type="fixed">
    <origin xyz="0.2286 0 0"/>
    <parent link="pod_shelf_k"/>
    <child link="pod_bin_2k"/>
  </joint>
  <link name="pod_bin_3k"/>
  <link name="pod_bin_3k_bottom">
    <inertial>
      <mass value="0.01"/>
      <inertia ixx="0.0002835" ixy="0.0" ixz="0.0" iyy="0.0002835" iyz="0.0" izz="0.000324"/>
    </inertial>
    <visual>
      <origin xyz="0.1143 0.07619999999999999 -0.0005"/>
      <geometry>
        <box size="0.2286 0.15239999999999998 0.001"/>
      </geometry>
      <material name="yellow_fabric"/>
    </visual>
    <collision>
      <origin xyz="0.1143 0.07619999999999999 -0.0005"/>
      <geometry>
        <box size="0.2286 0.15239999999999998 0.001"/>
      </geometry>
    </collision>
  </link>
  <link name="pod_bin_3k_left">
    <inertial>
      <mass value="0.01"/>
      <inertia ixx="0.0002835" ixy="0.0" ixz="0.0" iyy="0.0002835" iyz="0.0" izz="0.000324"/>
    </inertial>
    <visual>
      <origin xyz="0.07619999999999999 0.0635 -0.0005"/>
      <geometry>
        <box size="0.15239999999999998 0.127 0.001"/>
      </geometry>
      <material name="yellow_fabric"/>
    </visual>
    <collision>
      <origin xyz="0.07619999999999999 0.0635 -0.0005"/>
      <geometry>
        <box size="0.15239999999999998 0.127 0.001"/>
      </geometry>
    </collision>
  </link>
  <link name="pod_bin_3k_right">
    <inertial>
      <mass value="0.01"/>
      <inertia ixx="0.0002835" ixy="0.0" ixz="0.0" iyy="0.0002835" iyz="0.0" izz="0.000324"/>
    </inertial>
    <visual>
      <origin xyz="0.07619999999999999 0.0635 -0.0005"/>
      <geometry>
        <box size="0.15239999999999998 0.127 0.001"/>
      </geometry>
      <material name="yellow_fabric"/>
    </visual>
    <collision>
      <origin xyz="0.07619999999999999 0.0635 -0.0005"/>
      <geometry>
        <box size="0.15239999999999998 0.127 0.001"/>
      </geometry>
    </collision>
  </link>
  <link name="pod_bin_3k_top">
    <inertial>
      <mass value="0.01"/>
      <inertia ixx="0.0002835" ixy="0.0" ixz="0.0" iyy="0.0002835" iyz="0.0" izz="0.000324"/>
    </inertial>
    <visual>
      <origin xyz="0.1143 0.07619999999999999 -0.0005"/>
      <geometry>
        <box size="0.2286 0.15239999999999998 0.001"/>
      </geometry>
      <material name="yellow_fabric"/>
    </visual>
    <collision>
      <origin xyz="0.1143 0.07619999999999999 -0.0005"/>
      <geometry>
        <box size="0.2286 0.15239999999999998 0.001"/>
      </geometry>
    </collision>
  </link>
  <link name="pod_bin_3k_back">
    <inertial>
      <mass value="0.01"/>
      <inertia ixx="0.0002835" ixy="0.0" ixz="0.0" iyy="0.0002835" iyz="0.0" izz="0.000324"/>
    </inertial>
    <visual>
      <origin xyz="0.1143 0.0635 -0.0005"/>
      <geometry>
        <box size="0.2286 0.127 0.001"/>
      </geometry>
      <material name="yellow_fabric"/>
    </visual>
    <collision>
      <origin xyz="0.1143 0.0635 -0.0005"/>
      <geometry>
        <box size="0.2286 0.127 0.001"/>
      </geometry>
    </collision>
  </link>
  <link name="pod_bin_3k_flap">
    <inertial>
      <mass value="0.01"/>
      <inertia ixx="0.0002835" ixy="0.0" ixz="0.0" iyy="0.0002835" iyz="0.0" izz="0.000324"/>
    </inertial>
    <visual>
      <origin xyz="0.1143 0.0127 -0.0005"/>
      <geometry>
        <box size="0.2286 0.0254 0.001"/>
      </geometry>
      <material name="yellow_fabric"/>
    </visual>
    <collision>
      <origin xyz="0.1143 0.0127 -0.0005"/>
      <geometry>
        <box size="0.2286 0.0254 0.001"/>
      </geometry>
    </collision>
  </link>
  <joint name="pod_bin_3k_pod_bin_3k_bottom" type="fixed">
    <parent link="pod_bin_3k"/>
    <child link="pod_bin_3k_bottom"/>
  </joint>
  <joint name="pod_bin_3k_pod_bin_3k_left" type="fixed">
    <origin rpy="1.5707963267948966 0 1.5707963267948966 " xyz="0 0 0"/>
    <parent link="pod_bin_3k"/>
    <child link="pod_bin_3k_left"/>
  </joint>
  <joint name="pod_bin_3k_pod_bin_3k_right" type="fixed">
    <origin rpy="1.5707963267948966 0 1.5707963267948966 " xyz="0.2286 0 0"/>
    <parent link="pod_bin_3k"/>
    <child link="pod_bin_3k_right"/>
  </joint>
  <joint name="pod_bin_3k_pod_bin_3k_top" type="fixed">
    <origin rpy="0 0 0" xyz="0 0 0.127"/>
    <parent link="pod_bin_3k"/>
    <child link="pod_bin_3k_top"/>
  </joint>
  <joint name="pod_bin_3k_pod_bin_3k_back" type="fixed">
    <origin rpy="1.5707963267948966 0 0" xyz="0 0.15239999999999998 0"/>
    <parent link="pod_bin_3k"/>
    <child link="pod_bin_3k_back"/>
  </joint>
  <joint name="pod_bin_3k_pod_bin_3k_flap" type="fixed">
    <origin rpy="1.5707963267948966 0 0" xyz="0 0 0"/>
    <parent link="pod_bin_3k"/>
    <child link="pod_bin_3k_flap"/>
  </joint>
  <joint name="pod_shelf_k_pod_bin_3k_joint" type="fixed">
    <origin xyz="0.4572 0 0"/>
    <parent link="pod_shelf_k"/>
    <child link="pod_bin_3k"/>
  </joint>
  <link name="pod_bin_4k"/>
  <link name="pod_bin_4k_bottom">
    <inertial>
      <mass value="0.01"/>
      <inertia ixx="0.0002835" ixy="0.0" ixz="0.0" iyy="0.0002835" iyz="0.0" izz="0.000324"/>
    </inertial>
    <visual>
      <origin xyz="0.1143 0.07619999999999999 -0.0005"/>
      <geometry>
        <box size="0.2286 0.15239999999999998 0.001"/>
      </geometry>
      <material name="yellow_fabric"/>
    </visual>
    <collision>
      <origin xyz="0.1143 0.07619999999999999 -0.0005"/>
      <geometry>
        <box size="0.2286 0.15239999999999998 0.001"/>
      </geometry>
    </collision>
  </link>
  <link name="pod_bin_4k_left">
    <inertial>
      <mass value="0.01"/>
      <inertia ixx="0.0002835" ixy="0.0" ixz="0.0" iyy="0.0002835" iyz="0.0" izz="0.000324"/>
    </inertial>
    <visual>
      <origin xyz="0.07619999999999999 0.0635 -0.0005"/>
      <geometry>
        <box size="0.15239999999999998 0.127 0.001"/>
      </geometry>
      <material name="yellow_fabric"/>
    </visual>
    <collision>
      <origin xyz="0.07619999999999999 0.0635 -0.0005"/>
      <geometry>
        <box size="0.15239999999999998 0.127 0.001"/>
      </geometry>
    </collision>
  </link>
  <link name="pod_bin_4k_right">
    <inertial>
      <mass value="0.01"/>
      <inertia ixx="0.0002835" ixy="0.0" ixz="0.0" iyy="0.0002835" iyz="0.0" izz="0.000324"/>
    </inertial>
    <visual>
      <origin xyz="0.07619999999999999 0.0635 -0.0005"/>
      <geometry>
        <box size="0.15239999999999998 0.127 0.001"/>
      </geometry>
      <material name="yellow_fabric"/>
    </visual>
    <collision>
      <origin xyz="0.07619999999999999 0.0635 -0.0005"/>
      <geometry>
        <box size="0.15239999999999998 0.127 0.001"/>
      </geometry>
    </collision>
  </link>
  <link name="pod_bin_4k_top">
    <inertial>
      <mass value="0.01"/>
      <inertia ixx="0.0002835" ixy="0.0" ixz="0.0" iyy="0.0002835" iyz="0.0" izz="0.000324"/>
    </inertial>
    <visual>
      <origin xyz="0.1143 0.07619999999999999 -0.0005"/>
      <geometry>
        <box size="0.2286 0.15239999999999998 0.001"/>
      </geometry>
      <material name="yellow_fabric"/>
    </visual>
    <collision>
      <origin xyz="0.1143 0.07619999999999999 -0.0005"/>
      <geometry>
        <box size="0.2286 0.15239999999999998 0.001"/>
      </geometry>
    </collision>
  </link>
  <link name="pod_bin_4k_back">
    <inertial>
      <mass value="0.01"/>
      <inertia ixx="0.0002835" ixy="0.0" ixz="0.0" iyy="0.0002835" iyz="0.0" izz="0.000324"/>
    </inertial>
    <visual>
      <origin xyz="0.1143 0.0635 -0.0005"/>
      <geometry>
        <box size="0.2286 0.127 0.001"/>
      </geometry>
      <material name="yellow_fabric"/>
    </visual>
    <collision>
      <origin xyz="0.1143 0.0635 -0.0005"/>
      <geometry>
        <box size="0.2286 0.127 0.001"/>
      </geometry>
    </collision>
  </link>
  <link name="pod_bin_4k_flap">
    <inertial>
      <mass value="0.01"/>
      <inertia ixx="0.0002835" ixy="0.0" ixz="0.0" iyy="0.0002835" iyz="0.0" izz="0.000324"/>
    </inertial>
    <visual>
      <origin xyz="0.1143 0.0127 -0.0005"/>
      <geometry>
        <box size="0.2286 0.0254 0.001"/>
      </geometry>
      <material name="yellow_fabric"/>
    </visual>
    <collision>
      <origin xyz="0.1143 0.0127 -0.0005"/>
      <geometry>
        <box size="0.2286 0.0254 0.001"/>
      </geometry>
    </collision>
  </link>
  <joint name="pod_bin_4k_pod_bin_4k_bottom" type="fixed">
    <parent link="pod_bin_4k"/>
    <child link="pod_bin_4k_bottom"/>
  </joint>
  <joint name="pod_bin_4k_pod_bin_4k_left" type="fixed">
    <origin rpy="1.5707963267948966 0 1.5707963267948966 " xyz="0 0 0"/>
    <parent link="pod_bin_4k"/>
    <child link="pod_bin_4k_left"/>
  </joint>
  <joint name="pod_bin_4k_pod_bin_4k_right" type="fixed">
    <origin rpy="1.5707963267948966 0 1.5707963267948966 " xyz="0.2286 0 0"/>
    <parent link="pod_bin_4k"/>
    <child link="pod_bin_4k_right"/>
  </joint>
  <joint name="pod_bin_4k_pod_bin_4k_top" type="fixed">
    <origin rpy="0 0 0" xyz="0 0 0.127"/>
    <parent link="pod_bin_4k"/>
    <child link="pod_bin_4k_top"/>
  </joint>
  <joint name="pod_bin_4k_pod_bin_4k_back" type="fixed">
    <origin rpy="1.5707963267948966 0 0" xyz="0 0.15239999999999998 0"/>
    <parent link="pod_bin_4k"/>
    <child link="pod_bin_4k_back"/>
  </joint>
  <joint name="pod_bin_4k_pod_bin_4k_flap" type="fixed">
    <origin rpy="1.5707963267948966 0 0" xyz="0 0 0"/>
    <parent link="pod_bin_4k"/>
    <child link="pod_bin_4k_flap"/>
  </joint>
  <joint name="pod_shelf_k_pod_bin_4k_joint" type="fixed">
    <origin xyz="0.6858 0 0"/>
    <parent link="pod_shelf_k"/>
    <child link="pod_bin_4k"/>
  </joint>
  <joint name="pod_fabric_base_pod_shelf_k_joint" type="fixed">
    <origin xyz="0 0 1.6700499999999998"/>
    <parent link="pod_fabric_base"/>
    <child link="pod_shelf_k"/>
  </joint>
  <link name="pod_shelf_l"/>
  <link name="pod_bin_1l"/>
  <link name="pod_bin_1l_bottom">
    <inertial>
      <mass value="0.01"/>
      <inertia ixx="0.0002835" ixy="0.0" ixz="0.0" iyy="0.0002835" iyz="0.0" izz="0.000324"/>
    </inertial>
    <visual>
      <origin xyz="0.1143 0.07619999999999999 -0.0005"/>
      <geometry>
        <box size="0.2286 0.15239999999999998 0.001"/>
      </geometry>
      <material name="yellow_fabric"/>
    </visual>
    <collision>
      <origin xyz="0.1143 0.07619999999999999 -0.0005"/>
      <geometry>
        <box size="0.2286 0.15239999999999998 0.001"/>
      </geometry>
    </collision>
  </link>
  <link name="pod_bin_1l_left">
    <inertial>
      <mass value="0.01"/>
      <inertia ixx="0.0002835" ixy="0.0" ixz="0.0" iyy="0.0002835" iyz="0.0" izz="0.000324"/>
    </inertial>
    <visual>
      <origin xyz="0.07619999999999999 0.07619999999999999 -0.0005"/>
      <geometry>
        <box size="0.15239999999999998 0.15239999999999998 0.001"/>
      </geometry>
      <material name="yellow_fabric"/>
    </visual>
    <collision>
      <origin xyz="0.07619999999999999 0.07619999999999999 -0.0005"/>
      <geometry>
        <box size="0.15239999999999998 0.15239999999999998 0.001"/>
      </geometry>
    </collision>
  </link>
  <link name="pod_bin_1l_right">
    <inertial>
      <mass value="0.01"/>
      <inertia ixx="0.0002835" ixy="0.0" ixz="0.0" iyy="0.0002835" iyz="0.0" izz="0.000324"/>
    </inertial>
    <visual>
      <origin xyz="0.07619999999999999 0.07619999999999999 -0.0005"/>
      <geometry>
        <box size="0.15239999999999998 0.15239999999999998 0.001"/>
      </geometry>
      <material name="yellow_fabric"/>
    </visual>
    <collision>
      <origin xyz="0.07619999999999999 0.07619999999999999 -0.0005"/>
      <geometry>
        <box size="0.15239999999999998 0.15239999999999998 0.001"/>
      </geometry>
    </collision>
  </link>
  <link name="pod_bin_1l_top">
    <inertial>
      <mass value="0.01"/>
      <inertia ixx="0.0002835" ixy="0.0" ixz="0.0" iyy="0.0002835" iyz="0.0" izz="0.000324"/>
    </inertial>
    <visual>
      <origin xyz="0.1143 0.07619999999999999 -0.0005"/>
      <geometry>
        <box size="0.2286 0.15239999999999998 0.001"/>
      </geometry>
      <material name="yellow_fabric"/>
    </visual>
    <collision>
      <origin xyz="0.1143 0.07619999999999999 -0.0005"/>
      <geometry>
        <box size="0.2286 0.15239999999999998 0.001"/>
      </geometry>
    </collision>
  </link>
  <link name="pod_bin_1l_back">
    <inertial>
      <mass value="0.01"/>
      <inertia ixx="0.0002835" ixy="0.0" ixz="0.0" iyy="0.0002835" iyz="0.0" izz="0.000324"/>
    </inertial>
    <visual>
      <origin xyz="0.1143 0.07619999999999999 -0.0005"/>
      <geometry>
        <box size="0.2286 0.15239999999999998 0.001"/>
      </geometry>
      <material name="yellow_fabric"/>
    </visual>
    <collision>
      <origin xyz="0.1143 0.07619999999999999 -0.0005"/>
      <geometry>
        <box size="0.2286 0.15239999999999998 0.001"/>
      </geometry>
    </collision>
  </link>
  <link name="pod_bin_1l_flap">
    <inertial>
      <mass value="0.01"/>
      <inertia ixx="0.0002835" ixy="0.0" ixz="0.0" iyy="0.0002835" iyz="0.0" izz="0.000324"/>
    </inertial>
    <visual>
      <origin xyz="0.1143 0.0127 -0.0005"/>
      <geometry>
        <box size="0.2286 0.0254 0.001"/>
      </geometry>
      <material name="yellow_fabric"/>
    </visual>
    <collision>
      <origin xyz="0.1143 0.0127 -0.0005"/>
      <geometry>
        <box size="0.2286 0.0254 0.001"/>
      </geometry>
    </collision>
  </link>
  <joint name="pod_bin_1l_pod_bin_1l_bottom" type="fixed">
    <parent link="pod_bin_1l"/>
    <child link="pod_bin_1l_bottom"/>
  </joint>
  <joint name="pod_bin_1l_pod_bin_1l_left" type="fixed">
    <origin rpy="1.5707963267948966 0 1.5707963267948966 " xyz="0 0 0"/>
    <parent link="pod_bin_1l"/>
    <child link="pod_bin_1l_left"/>
  </joint>
  <joint name="pod_bin_1l_pod_bin_1l_right" type="fixed">
    <origin rpy="1.5707963267948966 0 1.5707963267948966 " xyz="0.2286 0 0"/>
    <parent link="pod_bin_1l"/>
    <child link="pod_bin_1l_right"/>
  </joint>
  <joint name="pod_bin_1l_pod_bin_1l_top" type="fixed">
    <origin rpy="0 0 0" xyz="0 0 0.15239999999999998"/>
    <parent link="pod_bin_1l"/>
    <child link="pod_bin_1l_top"/>
  </joint>
  <joint name="pod_bin_1l_pod_bin_1l_back" type="fixed">
    <origin rpy="1.5707963267948966 0 0" xyz="0 0.15239999999999998 0"/>
    <parent link="pod_bin_1l"/>
    <child link="pod_bin_1l_back"/>
  </joint>
  <joint name="pod_bin_1l_pod_bin_1l_flap" type="fixed">
    <origin rpy="1.5707963267948966 0 0" xyz="0 0 0"/>
    <parent link="pod_bin_1l"/>
    <child link="pod_bin_1l_flap"/>
  </joint>
  <joint name="pod_shelf_l_pod_bin_1l_joint" type="fixed">
    <origin xyz="0.0 0 0"/>
    <parent link="pod_shelf_l"/>
    <child link="pod_bin_1l"/>
  </joint>
  <link name="pod_bin_2l"/>
  <link name="pod_bin_2l_bottom">
    <inertial>
      <mass value="0.01"/>
      <inertia ixx="0.0002835" ixy="0.0" ixz="0.0" iyy="0.0002835" iyz="0.0" izz="0.000324"/>
    </inertial>
    <visual>
      <origin xyz="0.1143 0.07619999999999999 -0.0005"/>
      <geometry>
        <box size="0.2286 0.15239999999999998 0.001"/>
      </geometry>
      <material name="yellow_fabric"/>
    </visual>
    <collision>
      <origin xyz="0.1143 0.07619999999999999 -0.0005"/>
      <geometry>
        <box size="0.2286 0.15239999999999998 0.001"/>
      </geometry>
    </collision>
  </link>
  <link name="pod_bin_2l_left">
    <inertial>
      <mass value="0.01"/>
      <inertia ixx="0.0002835" ixy="0.0" ixz="0.0" iyy="0.0002835" iyz="0.0" izz="0.000324"/>
    </inertial>
    <visual>
      <origin xyz="0.07619999999999999 0.07619999999999999 -0.0005"/>
      <geometry>
        <box size="0.15239999999999998 0.15239999999999998 0.001"/>
      </geometry>
      <material name="yellow_fabric"/>
    </visual>
    <collision>
      <origin xyz="0.07619999999999999 0.07619999999999999 -0.0005"/>
      <geometry>
        <box size="0.15239999999999998 0.15239999999999998 0.001"/>
      </geometry>
    </collision>
  </link>
  <link name="pod_bin_2l_right">
    <inertial>
      <mass value="0.01"/>
      <inertia ixx="0.0002835" ixy="0.0" ixz="0.0" iyy="0.0002835" iyz="0.0" izz="0.000324"/>
    </inertial>
    <visual>
      <origin xyz="0.07619999999999999 0.07619999999999999 -0.0005"/>
      <geometry>
        <box size="0.15239999999999998 0.15239999999999998 0.001"/>
      </geometry>
      <material name="yellow_fabric"/>
    </visual>
    <collision>
      <origin xyz="0.07619999999999999 0.07619999999999999 -0.0005"/>
      <geometry>
        <box size="0.15239999999999998 0.15239999999999998 0.001"/>
      </geometry>
    </collision>
  </link>
  <link name="pod_bin_2l_top">
    <inertial>
      <mass value="0.01"/>
      <inertia ixx="0.0002835" ixy="0.0" ixz="0.0" iyy="0.0002835" iyz="0.0" izz="0.000324"/>
    </inertial>
    <visual>
      <origin xyz="0.1143 0.07619999999999999 -0.0005"/>
      <geometry>
        <box size="0.2286 0.15239999999999998 0.001"/>
      </geometry>
      <material name="yellow_fabric"/>
    </visual>
    <collision>
      <origin xyz="0.1143 0.07619999999999999 -0.0005"/>
      <geometry>
        <box size="0.2286 0.15239999999999998 0.001"/>
      </geometry>
    </collision>
  </link>
  <link name="pod_bin_2l_back">
    <inertial>
      <mass value="0.01"/>
      <inertia ixx="0.0002835" ixy="0.0" ixz="0.0" iyy="0.0002835" iyz="0.0" izz="0.000324"/>
    </inertial>
    <visual>
      <origin xyz="0.1143 0.07619999999999999 -0.0005"/>
      <geometry>
        <box size="0.2286 0.15239999999999998 0.001"/>
      </geometry>
      <material name="yellow_fabric"/>
    </visual>
    <collision>
      <origin xyz="0.1143 0.07619999999999999 -0.0005"/>
      <geometry>
        <box size="0.2286 0.15239999999999998 0.001"/>
      </geometry>
    </collision>
  </link>
  <link name="pod_bin_2l_flap">
    <inertial>
      <mass value="0.01"/>
      <inertia ixx="0.0002835" ixy="0.0" ixz="0.0" iyy="0.0002835" iyz="0.0" izz="0.000324"/>
    </inertial>
    <visual>
      <origin xyz="0.1143 0.0127 -0.0005"/>
      <geometry>
        <box size="0.2286 0.0254 0.001"/>
      </geometry>
      <material name="yellow_fabric"/>
    </visual>
    <collision>
      <origin xyz="0.1143 0.0127 -0.0005"/>
      <geometry>
        <box size="0.2286 0.0254 0.001"/>
      </geometry>
    </collision>
  </link>
  <joint name="pod_bin_2l_pod_bin_2l_bottom" type="fixed">
    <parent link="pod_bin_2l"/>
    <child link="pod_bin_2l_bottom"/>
  </joint>
  <joint name="pod_bin_2l_pod_bin_2l_left" type="fixed">
    <origin rpy="1.5707963267948966 0 1.5707963267948966 " xyz="0 0 0"/>
    <parent link="pod_bin_2l"/>
    <child link="pod_bin_2l_left"/>
  </joint>
  <joint name="pod_bin_2l_pod_bin_2l_right" type="fixed">
    <origin rpy="1.5707963267948966 0 1.5707963267948966 " xyz="0.2286 0 0"/>
    <parent link="pod_bin_2l"/>
    <child link="pod_bin_2l_right"/>
  </joint>
  <joint name="pod_bin_2l_pod_bin_2l_top" type="fixed">
    <origin rpy="0 0 0" xyz="0 0 0.15239999999999998"/>
    <parent link="pod_bin_2l"/>
    <child link="pod_bin_2l_top"/>
  </joint>
  <joint name="pod_bin_2l_pod_bin_2l_back" type="fixed">
    <origin rpy="1.5707963267948966 0 0" xyz="0 0.15239999999999998 0"/>
    <parent link="pod_bin_2l"/>
    <child link="pod_bin_2l_back"/>
  </joint>
  <joint name="pod_bin_2l_pod_bin_2l_flap" type="fixed">
    <origin rpy="1.5707963267948966 0 0" xyz="0 0 0"/>
    <parent link="pod_bin_2l"/>
    <child link="pod_bin_2l_flap"/>
  </joint>
  <joint name="pod_shelf_l_pod_bin_2l_joint" type="fixed">
    <origin xyz="0.2286 0 0"/>
    <parent link="pod_shelf_l"/>
    <child link="pod_bin_2l"/>
  </joint>
  <link name="pod_bin_3l"/>
  <link name="pod_bin_3l_bottom">
    <inertial>
      <mass value="0.01"/>
      <inertia ixx="0.0002835" ixy="0.0" ixz="0.0" iyy="0.0002835" iyz="0.0" izz="0.000324"/>
    </inertial>
    <visual>
      <origin xyz="0.1143 0.07619999999999999 -0.0005"/>
      <geometry>
        <box size="0.2286 0.15239999999999998 0.001"/>
      </geometry>
      <material name="yellow_fabric"/>
    </visual>
    <collision>
      <origin xyz="0.1143 0.07619999999999999 -0.0005"/>
      <geometry>
        <box size="0.2286 0.15239999999999998 0.001"/>
      </geometry>
    </collision>
  </link>
  <link name="pod_bin_3l_left">
    <inertial>
      <mass value="0.01"/>
      <inertia ixx="0.0002835" ixy="0.0" ixz="0.0" iyy="0.0002835" iyz="0.0" izz="0.000324"/>
    </inertial>
    <visual>
      <origin xyz="0.07619999999999999 0.07619999999999999 -0.0005"/>
      <geometry>
        <box size="0.15239999999999998 0.15239999999999998 0.001"/>
      </geometry>
      <material name="yellow_fabric"/>
    </visual>
    <collision>
      <origin xyz="0.07619999999999999 0.07619999999999999 -0.0005"/>
      <geometry>
        <box size="0.15239999999999998 0.15239999999999998 0.001"/>
      </geometry>
    </collision>
  </link>
  <link name="pod_bin_3l_right">
    <inertial>
      <mass value="0.01"/>
      <inertia ixx="0.0002835" ixy="0.0" ixz="0.0" iyy="0.0002835" iyz="0.0" izz="0.000324"/>
    </inertial>
    <visual>
      <origin xyz="0.07619999999999999 0.07619999999999999 -0.0005"/>
      <geometry>
        <box size="0.15239999999999998 0.15239999999999998 0.001"/>
      </geometry>
      <material name="yellow_fabric"/>
    </visual>
    <collision>
      <origin xyz="0.07619999999999999 0.07619999999999999 -0.0005"/>
      <geometry>
        <box size="0.15239999999999998 0.15239999999999998 0.001"/>
      </geometry>
    </collision>
  </link>
  <link name="pod_bin_3l_top">
    <inertial>
      <mass value="0.01"/>
      <inertia ixx="0.0002835" ixy="0.0" ixz="0.0" iyy="0.0002835" iyz="0.0" izz="0.000324"/>
    </inertial>
    <visual>
      <origin xyz="0.1143 0.07619999999999999 -0.0005"/>
      <geometry>
        <box size="0.2286 0.15239999999999998 0.001"/>
      </geometry>
      <material name="yellow_fabric"/>
    </visual>
    <collision>
      <origin xyz="0.1143 0.07619999999999999 -0.0005"/>
      <geometry>
        <box size="0.2286 0.15239999999999998 0.001"/>
      </geometry>
    </collision>
  </link>
  <link name="pod_bin_3l_back">
    <inertial>
      <mass value="0.01"/>
      <inertia ixx="0.0002835" ixy="0.0" ixz="0.0" iyy="0.0002835" iyz="0.0" izz="0.000324"/>
    </inertial>
    <visual>
      <origin xyz="0.1143 0.07619999999999999 -0.0005"/>
      <geometry>
        <box size="0.2286 0.15239999999999998 0.001"/>
      </geometry>
      <material name="yellow_fabric"/>
    </visual>
    <collision>
      <origin xyz="0.1143 0.07619999999999999 -0.0005"/>
      <geometry>
        <box size="0.2286 0.15239999999999998 0.001"/>
      </geometry>
    </collision>
  </link>
  <link name="pod_bin_3l_flap">
    <inertial>
      <mass value="0.01"/>
      <inertia ixx="0.0002835" ixy="0.0" ixz="0.0" iyy="0.0002835" iyz="0.0" izz="0.000324"/>
    </inertial>
    <visual>
      <origin xyz="0.1143 0.0127 -0.0005"/>
      <geometry>
        <box size="0.2286 0.0254 0.001"/>
      </geometry>
      <material name="yellow_fabric"/>
    </visual>
    <collision>
      <origin xyz="0.1143 0.0127 -0.0005"/>
      <geometry>
        <box size="0.2286 0.0254 0.001"/>
      </geometry>
    </collision>
  </link>
  <joint name="pod_bin_3l_pod_bin_3l_bottom" type="fixed">
    <parent link="pod_bin_3l"/>
    <child link="pod_bin_3l_bottom"/>
  </joint>
  <joint name="pod_bin_3l_pod_bin_3l_left" type="fixed">
    <origin rpy="1.5707963267948966 0 1.5707963267948966 " xyz="0 0 0"/>
    <parent link="pod_bin_3l"/>
    <child link="pod_bin_3l_left"/>
  </joint>
  <joint name="pod_bin_3l_pod_bin_3l_right" type="fixed">
    <origin rpy="1.5707963267948966 0 1.5707963267948966 " xyz="0.2286 0 0"/>
    <parent link="pod_bin_3l"/>
    <child link="pod_bin_3l_right"/>
  </joint>
  <joint name="pod_bin_3l_pod_bin_3l_top" type="fixed">
    <origin rpy="0 0 0" xyz="0 0 0.15239999999999998"/>
    <parent link="pod_bin_3l"/>
    <child link="pod_bin_3l_top"/>
  </joint>
  <joint name="pod_bin_3l_pod_bin_3l_back" type="fixed">
    <origin rpy="1.5707963267948966 0 0" xyz="0 0.15239999999999998 0"/>
    <parent link="pod_bin_3l"/>
    <child link="pod_bin_3l_back"/>
  </joint>
  <joint name="pod_bin_3l_pod_bin_3l_flap" type="fixed">
    <origin rpy="1.5707963267948966 0 0" xyz="0 0 0"/>
    <parent link="pod_bin_3l"/>
    <child link="pod_bin_3l_flap"/>
  </joint>
  <joint name="pod_shelf_l_pod_bin_3l_joint" type="fixed">
    <origin xyz="0.4572 0 0"/>
    <parent link="pod_shelf_l"/>
    <child link="pod_bin_3l"/>
  </joint>
  <link name="pod_bin_4l"/>
  <link name="pod_bin_4l_bottom">
    <inertial>
      <mass value="0.01"/>
      <inertia ixx="0.0002835" ixy="0.0" ixz="0.0" iyy="0.0002835" iyz="0.0" izz="0.000324"/>
    </inertial>
    <visual>
      <origin xyz="0.1143 0.07619999999999999 -0.0005"/>
      <geometry>
        <box size="0.2286 0.15239999999999998 0.001"/>
      </geometry>
      <material name="yellow_fabric"/>
    </visual>
    <collision>
      <origin xyz="0.1143 0.07619999999999999 -0.0005"/>
      <geometry>
        <box size="0.2286 0.15239999999999998 0.001"/>
      </geometry>
    </collision>
  </link>
  <link name="pod_bin_4l_left">
    <inertial>
      <mass value="0.01"/>
      <inertia ixx="0.0002835" ixy="0.0" ixz="0.0" iyy="0.0002835" iyz="0.0" izz="0.000324"/>
    </inertial>
    <visual>
      <origin xyz="0.07619999999999999 0.07619999999999999 -0.0005"/>
      <geometry>
        <box size="0.15239999999999998 0.15239999999999998 0.001"/>
      </geometry>
      <material name="yellow_fabric"/>
    </visual>
    <collision>
      <origin xyz="0.07619999999999999 0.07619999999999999 -0.0005"/>
      <geometry>
        <box size="0.15239999999999998 0.15239999999999998 0.001"/>
      </geometry>
    </collision>
  </link>
  <link name="pod_bin_4l_right">
    <inertial>
      <mass value="0.01"/>
      <inertia ixx="0.0002835" ixy="0.0" ixz="0.0" iyy="0.0002835" iyz="0.0" izz="0.000324"/>
    </inertial>
    <visual>
      <origin xyz="0.07619999999999999 0.07619999999999999 -0.0005"/>
      <geometry>
        <box size="0.15239999999999998 0.15239999999999998 0.001"/>
      </geometry>
      <material name="yellow_fabric"/>
    </visual>
    <collision>
      <origin xyz="0.07619999999999999 0.07619999999999999 -0.0005"/>
      <geometry>
        <box size="0.15239999999999998 0.15239999999999998 0.001"/>
      </geometry>
    </collision>
  </link>
  <link name="pod_bin_4l_top">
    <inertial>
      <mass value="0.01"/>
      <inertia ixx="0.0002835" ixy="0.0" ixz="0.0" iyy="0.0002835" iyz="0.0" izz="0.000324"/>
    </inertial>
    <visual>
      <origin xyz="0.1143 0.07619999999999999 -0.0005"/>
      <geometry>
        <box size="0.2286 0.15239999999999998 0.001"/>
      </geometry>
      <material name="yellow_fabric"/>
    </visual>
    <collision>
      <origin xyz="0.1143 0.07619999999999999 -0.0005"/>
      <geometry>
        <box size="0.2286 0.15239999999999998 0.001"/>
      </geometry>
    </collision>
  </link>
  <link name="pod_bin_4l_back">
    <inertial>
      <mass value="0.01"/>
      <inertia ixx="0.0002835" ixy="0.0" ixz="0.0" iyy="0.0002835" iyz="0.0" izz="0.000324"/>
    </inertial>
    <visual>
      <origin xyz="0.1143 0.07619999999999999 -0.0005"/>
      <geometry>
        <box size="0.2286 0.15239999999999998 0.001"/>
      </geometry>
      <material name="yellow_fabric"/>
    </visual>
    <collision>
      <origin xyz="0.1143 0.07619999999999999 -0.0005"/>
      <geometry>
        <box size="0.2286 0.15239999999999998 0.001"/>
      </geometry>
    </collision>
  </link>
  <link name="pod_bin_4l_flap">
    <inertial>
      <mass value="0.01"/>
      <inertia ixx="0.0002835" ixy="0.0" ixz="0.0" iyy="0.0002835" iyz="0.0" izz="0.000324"/>
    </inertial>
    <visual>
      <origin xyz="0.1143 0.0127 -0.0005"/>
      <geometry>
        <box size="0.2286 0.0254 0.001"/>
      </geometry>
      <material name="yellow_fabric"/>
    </visual>
    <collision>
      <origin xyz="0.1143 0.0127 -0.0005"/>
      <geometry>
        <box size="0.2286 0.0254 0.001"/>
      </geometry>
    </collision>
  </link>
  <joint name="pod_bin_4l_pod_bin_4l_bottom" type="fixed">
    <parent link="pod_bin_4l"/>
    <child link="pod_bin_4l_bottom"/>
  </joint>
  <joint name="pod_bin_4l_pod_bin_4l_left" type="fixed">
    <origin rpy="1.5707963267948966 0 1.5707963267948966 " xyz="0 0 0"/>
    <parent link="pod_bin_4l"/>
    <child link="pod_bin_4l_left"/>
  </joint>
  <joint name="pod_bin_4l_pod_bin_4l_right" type="fixed">
    <origin rpy="1.5707963267948966 0 1.5707963267948966 " xyz="0.2286 0 0"/>
    <parent link="pod_bin_4l"/>
    <child link="pod_bin_4l_right"/>
  </joint>
  <joint name="pod_bin_4l_pod_bin_4l_top" type="fixed">
    <origin rpy="0 0 0" xyz="0 0 0.15239999999999998"/>
    <parent link="pod_bin_4l"/>
    <child link="pod_bin_4l_top"/>
  </joint>
  <joint name="pod_bin_4l_pod_bin_4l_back" type="fixed">
    <origin rpy="1.5707963267948966 0 0" xyz="0 0.15239999999999998 0"/>
    <parent link="pod_bin_4l"/>
    <child link="pod_bin_4l_back"/>
  </joint>
  <joint name="pod_bin_4l_pod_bin_4l_flap" type="fixed">
    <origin rpy="1.5707963267948966 0 0" xyz="0 0 0"/>
    <parent link="pod_bin_4l"/>
    <child link="pod_bin_4l_flap"/>
  </joint>
  <joint name="pod_shelf_l_pod_bin_4l_joint" type="fixed">
    <origin xyz="0.6858 0 0"/>
    <parent link="pod_shelf_l"/>
    <child link="pod_bin_4l"/>
  </joint>
  <joint name="pod_fabric_base_pod_shelf_l_joint" type="fixed">
    <origin xyz="0 0 1.7970499999999998"/>
    <parent link="pod_fabric_base"/>
    <child link="pod_shelf_l"/>
  </joint>
  <link name="pod_shelf_m"/>
  <link name="pod_bin_1m"/>
  <link name="pod_bin_1m_bottom">
    <inertial>
      <mass value="0.01"/>
      <inertia ixx="0.0002835" ixy="0.0" ixz="0.0" iyy="0.0002835" iyz="0.0" izz="0.000324"/>
    </inertial>
    <visual>
      <origin xyz="0.1143 0.07619999999999999 -0.0005"/>
      <geometry>
        <box size="0.2286 0.15239999999999998 0.001"/>
      </geometry>
      <material name="yellow_fabric"/>
    </visual>
    <collision>
      <origin xyz="0.1143 0.07619999999999999 -0.0005"/>
      <geometry>
        <box size="0.2286 0.15239999999999998 0.001"/>
      </geometry>
    </collision>
  </link>
  <link name="pod_bin_1m_left">
    <inertial>
      <mass value="0.01"/>
      <inertia ixx="0.0002835" ixy="0.0" ixz="0.0" iyy="0.0002835" iyz="0.0" izz="0.000324"/>
    </inertial>
    <visual>
      <origin xyz="0.07619999999999999 0.1397 -0.0005"/>
      <geometry>
        <box size="0.15239999999999998 0.2794 0.001"/>
      </geometry>
      <material name="yellow_fabric"/>
    </visual>
    <collision>
      <origin xyz="0.07619999999999999 0.1397 -0.0005"/>
      <geometry>
        <box size="0.15239999999999998 0.2794 0.001"/>
      </geometry>
    </collision>
  </link>
  <link name="pod_bin_1m_right">
    <inertial>
      <mass value="0.01"/>
      <inertia ixx="0.0002835" ixy="0.0" ixz="0.0" iyy="0.0002835" iyz="0.0" izz="0.000324"/>
    </inertial>
    <visual>
      <origin xyz="0.07619999999999999 0.1397 -0.0005"/>
      <geometry>
        <box size="0.15239999999999998 0.2794 0.001"/>
      </geometry>
      <material name="yellow_fabric"/>
    </visual>
    <collision>
      <origin xyz="0.07619999999999999 0.1397 -0.0005"/>
      <geometry>
        <box size="0.15239999999999998 0.2794 0.001"/>
      </geometry>
    </collision>
  </link>
  <link name="pod_bin_1m_top">
    <inertial>
      <mass value="0.01"/>
      <inertia ixx="0.0002835" ixy="0.0" ixz="0.0" iyy="0.0002835" iyz="0.0" izz="0.000324"/>
    </inertial>
    <visual>
      <origin xyz="0.1143 0.07619999999999999 -0.0005"/>
      <geometry>
        <box size="0.2286 0.15239999999999998 0.001"/>
      </geometry>
      <material name="yellow_fabric"/>
    </visual>
    <collision>
      <origin xyz="0.1143 0.07619999999999999 -0.0005"/>
      <geometry>
        <box size="0.2286 0.15239999999999998 0.001"/>
      </geometry>
    </collision>
  </link>
  <link name="pod_bin_1m_back">
    <inertial>
      <mass value="0.01"/>
      <inertia ixx="0.0002835" ixy="0.0" ixz="0.0" iyy="0.0002835" iyz="0.0" izz="0.000324"/>
    </inertial>
    <visual>
      <origin xyz="0.1143 0.1397 -0.0005"/>
      <geometry>
        <box size="0.2286 0.2794 0.001"/>
      </geometry>
      <material name="yellow_fabric"/>
    </visual>
    <collision>
      <origin xyz="0.1143 0.1397 -0.0005"/>
      <geometry>
        <box size="0.2286 0.2794 0.001"/>
      </geometry>
    </collision>
  </link>
  <link name="pod_bin_1m_flap">
    <inertial>
      <mass value="0.01"/>
      <inertia ixx="0.0002835" ixy="0.0" ixz="0.0" iyy="0.0002835" iyz="0.0" izz="0.000324"/>
    </inertial>
    <visual>
      <origin xyz="0.1143 0.0127 -0.0005"/>
      <geometry>
        <box size="0.2286 0.0254 0.001"/>
      </geometry>
      <material name="yellow_fabric"/>
    </visual>
    <collision>
      <origin xyz="0.1143 0.0127 -0.0005"/>
      <geometry>
        <box size="0.2286 0.0254 0.001"/>
      </geometry>
    </collision>
  </link>
  <joint name="pod_bin_1m_pod_bin_1m_bottom" type="fixed">
    <parent link="pod_bin_1m"/>
    <child link="pod_bin_1m_bottom"/>
  </joint>
  <joint name="pod_bin_1m_pod_bin_1m_left" type="fixed">
    <origin rpy="1.5707963267948966 0 1.5707963267948966 " xyz="0 0 0"/>
    <parent link="pod_bin_1m"/>
    <child link="pod_bin_1m_left"/>
  </joint>
  <joint name="pod_bin_1m_pod_bin_1m_right" type="fixed">
    <origin rpy="1.5707963267948966 0 1.5707963267948966 " xyz="0.2286 0 0"/>
    <parent link="pod_bin_1m"/>
    <child link="pod_bin_1m_right"/>
  </joint>
  <joint name="pod_bin_1m_pod_bin_1m_top" type="fixed">
    <origin rpy="0 0 0" xyz="0 0 0.2794"/>
    <parent link="pod_bin_1m"/>
    <child link="pod_bin_1m_top"/>
  </joint>
  <joint name="pod_bin_1m_pod_bin_1m_back" type="fixed">
    <origin rpy="1.5707963267948966 0 0" xyz="0 0.15239999999999998 0"/>
    <parent link="pod_bin_1m"/>
    <child link="pod_bin_1m_back"/>
  </joint>
  <joint name="pod_bin_1m_pod_bin_1m_flap" type="fixed">
    <origin rpy="1.5707963267948966 0 0" xyz="0 0 0"/>
    <parent link="pod_bin_1m"/>
    <child link="pod_bin_1m_flap"/>
  </joint>
  <joint name="pod_shelf_m_pod_bin_1m_joint" type="fixed">
    <origin xyz="0.0 0 0"/>
    <parent link="pod_shelf_m"/>
    <child link="pod_bin_1m"/>
  </joint>
  <link name="pod_bin_2m"/>
  <link name="pod_bin_2m_bottom">
    <inertial>
      <mass value="0.01"/>
      <inertia ixx="0.0002835" ixy="0.0" ixz="0.0" iyy="0.0002835" iyz="0.0" izz="0.000324"/>
    </inertial>
    <visual>
      <origin xyz="0.1143 0.07619999999999999 -0.0005"/>
      <geometry>
        <box size="0.2286 0.15239999999999998 0.001"/>
      </geometry>
      <material name="yellow_fabric"/>
    </visual>
    <collision>
      <origin xyz="0.1143 0.07619999999999999 -0.0005"/>
      <geometry>
        <box size="0.2286 0.15239999999999998 0.001"/>
      </geometry>
    </collision>
  </link>
  <link name="pod_bin_2m_left">
    <inertial>
      <mass value="0.01"/>
      <inertia ixx="0.0002835" ixy="0.0" ixz="0.0" iyy="0.0002835" iyz="0.0" izz="0.000324"/>
    </inertial>
    <visual>
      <origin xyz="0.07619999999999999 0.1397 -0.0005"/>
      <geometry>
        <box size="0.15239999999999998 0.2794 0.001"/>
      </geometry>
      <material name="yellow_fabric"/>
    </visual>
    <collision>
      <origin xyz="0.07619999999999999 0.1397 -0.0005"/>
      <geometry>
        <box size="0.15239999999999998 0.2794 0.001"/>
      </geometry>
    </collision>
  </link>
  <link name="pod_bin_2m_right">
    <inertial>
      <mass value="0.01"/>
      <inertia ixx="0.0002835" ixy="0.0" ixz="0.0" iyy="0.0002835" iyz="0.0" izz="0.000324"/>
    </inertial>
    <visual>
      <origin xyz="0.07619999999999999 0.1397 -0.0005"/>
      <geometry>
        <box size="0.15239999999999998 0.2794 0.001"/>
      </geometry>
      <material name="yellow_fabric"/>
    </visual>
    <collision>
      <origin xyz="0.07619999999999999 0.1397 -0.0005"/>
      <geometry>
        <box size="0.15239999999999998 0.2794 0.001"/>
      </geometry>
    </collision>
  </link>
  <link name="pod_bin_2m_top">
    <inertial>
      <mass value="0.01"/>
      <inertia ixx="0.0002835" ixy="0.0" ixz="0.0" iyy="0.0002835" iyz="0.0" izz="0.000324"/>
    </inertial>
    <visual>
      <origin xyz="0.1143 0.07619999999999999 -0.0005"/>
      <geometry>
        <box size="0.2286 0.15239999999999998 0.001"/>
      </geometry>
      <material name="yellow_fabric"/>
    </visual>
    <collision>
      <origin xyz="0.1143 0.07619999999999999 -0.0005"/>
      <geometry>
        <box size="0.2286 0.15239999999999998 0.001"/>
      </geometry>
    </collision>
  </link>
  <link name="pod_bin_2m_back">
    <inertial>
      <mass value="0.01"/>
      <inertia ixx="0.0002835" ixy="0.0" ixz="0.0" iyy="0.0002835" iyz="0.0" izz="0.000324"/>
    </inertial>
    <visual>
      <origin xyz="0.1143 0.1397 -0.0005"/>
      <geometry>
        <box size="0.2286 0.2794 0.001"/>
      </geometry>
      <material name="yellow_fabric"/>
    </visual>
    <collision>
      <origin xyz="0.1143 0.1397 -0.0005"/>
      <geometry>
        <box size="0.2286 0.2794 0.001"/>
      </geometry>
    </collision>
  </link>
  <link name="pod_bin_2m_flap">
    <inertial>
      <mass value="0.01"/>
      <inertia ixx="0.0002835" ixy="0.0" ixz="0.0" iyy="0.0002835" iyz="0.0" izz="0.000324"/>
    </inertial>
    <visual>
      <origin xyz="0.1143 0.0127 -0.0005"/>
      <geometry>
        <box size="0.2286 0.0254 0.001"/>
      </geometry>
      <material name="yellow_fabric"/>
    </visual>
    <collision>
      <origin xyz="0.1143 0.0127 -0.0005"/>
      <geometry>
        <box size="0.2286 0.0254 0.001"/>
      </geometry>
    </collision>
  </link>
  <joint name="pod_bin_2m_pod_bin_2m_bottom" type="fixed">
    <parent link="pod_bin_2m"/>
    <child link="pod_bin_2m_bottom"/>
  </joint>
  <joint name="pod_bin_2m_pod_bin_2m_left" type="fixed">
    <origin rpy="1.5707963267948966 0 1.5707963267948966 " xyz="0 0 0"/>
    <parent link="pod_bin_2m"/>
    <child link="pod_bin_2m_left"/>
  </joint>
  <joint name="pod_bin_2m_pod_bin_2m_right" type="fixed">
    <origin rpy="1.5707963267948966 0 1.5707963267948966 " xyz="0.2286 0 0"/>
    <parent link="pod_bin_2m"/>
    <child link="pod_bin_2m_right"/>
  </joint>
  <joint name="pod_bin_2m_pod_bin_2m_top" type="fixed">
    <origin rpy="0 0 0" xyz="0 0 0.2794"/>
    <parent link="pod_bin_2m"/>
    <child link="pod_bin_2m_top"/>
  </joint>
  <joint name="pod_bin_2m_pod_bin_2m_back" type="fixed">
    <origin rpy="1.5707963267948966 0 0" xyz="0 0.15239999999999998 0"/>
    <parent link="pod_bin_2m"/>
    <child link="pod_bin_2m_back"/>
  </joint>
  <joint name="pod_bin_2m_pod_bin_2m_flap" type="fixed">
    <origin rpy="1.5707963267948966 0 0" xyz="0 0 0"/>
    <parent link="pod_bin_2m"/>
    <child link="pod_bin_2m_flap"/>
  </joint>
  <joint name="pod_shelf_m_pod_bin_2m_joint" type="fixed">
    <origin xyz="0.2286 0 0"/>
    <parent link="pod_shelf_m"/>
    <child link="pod_bin_2m"/>
  </joint>
  <link name="pod_bin_3m"/>
  <link name="pod_bin_3m_bottom">
    <inertial>
      <mass value="0.01"/>
      <inertia ixx="0.0002835" ixy="0.0" ixz="0.0" iyy="0.0002835" iyz="0.0" izz="0.000324"/>
    </inertial>
    <visual>
      <origin xyz="0.1143 0.07619999999999999 -0.0005"/>
      <geometry>
        <box size="0.2286 0.15239999999999998 0.001"/>
      </geometry>
      <material name="yellow_fabric"/>
    </visual>
    <collision>
      <origin xyz="0.1143 0.07619999999999999 -0.0005"/>
      <geometry>
        <box size="0.2286 0.15239999999999998 0.001"/>
      </geometry>
    </collision>
  </link>
  <link name="pod_bin_3m_left">
    <inertial>
      <mass value="0.01"/>
      <inertia ixx="0.0002835" ixy="0.0" ixz="0.0" iyy="0.0002835" iyz="0.0" izz="0.000324"/>
    </inertial>
    <visual>
      <origin xyz="0.07619999999999999 0.1397 -0.0005"/>
      <geometry>
        <box size="0.15239999999999998 0.2794 0.001"/>
      </geometry>
      <material name="yellow_fabric"/>
    </visual>
    <collision>
      <origin xyz="0.07619999999999999 0.1397 -0.0005"/>
      <geometry>
        <box size="0.15239999999999998 0.2794 0.001"/>
      </geometry>
    </collision>
  </link>
  <link name="pod_bin_3m_right">
    <inertial>
      <mass value="0.01"/>
      <inertia ixx="0.0002835" ixy="0.0" ixz="0.0" iyy="0.0002835" iyz="0.0" izz="0.000324"/>
    </inertial>
    <visual>
      <origin xyz="0.07619999999999999 0.1397 -0.0005"/>
      <geometry>
        <box size="0.15239999999999998 0.2794 0.001"/>
      </geometry>
      <material name="yellow_fabric"/>
    </visual>
    <collision>
      <origin xyz="0.07619999999999999 0.1397 -0.0005"/>
      <geometry>
        <box size="0.15239999999999998 0.2794 0.001"/>
      </geometry>
    </collision>
  </link>
  <link name="pod_bin_3m_top">
    <inertial>
      <mass value="0.01"/>
      <inertia ixx="0.0002835" ixy="0.0" ixz="0.0" iyy="0.0002835" iyz="0.0" izz="0.000324"/>
    </inertial>
    <visual>
      <origin xyz="0.1143 0.07619999999999999 -0.0005"/>
      <geometry>
        <box size="0.2286 0.15239999999999998 0.001"/>
      </geometry>
      <material name="yellow_fabric"/>
    </visual>
    <collision>
      <origin xyz="0.1143 0.07619999999999999 -0.0005"/>
      <geometry>
        <box size="0.2286 0.15239999999999998 0.001"/>
      </geometry>
    </collision>
  </link>
  <link name="pod_bin_3m_back">
    <inertial>
      <mass value="0.01"/>
      <inertia ixx="0.0002835" ixy="0.0" ixz="0.0" iyy="0.0002835" iyz="0.0" izz="0.000324"/>
    </inertial>
    <visual>
      <origin xyz="0.1143 0.1397 -0.0005"/>
      <geometry>
        <box size="0.2286 0.2794 0.001"/>
      </geometry>
      <material name="yellow_fabric"/>
    </visual>
    <collision>
      <origin xyz="0.1143 0.1397 -0.0005"/>
      <geometry>
        <box size="0.2286 0.2794 0.001"/>
      </geometry>
    </collision>
  </link>
  <link name="pod_bin_3m_flap">
    <inertial>
      <mass value="0.01"/>
      <inertia ixx="0.0002835" ixy="0.0" ixz="0.0" iyy="0.0002835" iyz="0.0" izz="0.000324"/>
    </inertial>
    <visual>
      <origin xyz="0.1143 0.0127 -0.0005"/>
      <geometry>
        <box size="0.2286 0.0254 0.001"/>
      </geometry>
      <material name="yellow_fabric"/>
    </visual>
    <collision>
      <origin xyz="0.1143 0.0127 -0.0005"/>
      <geometry>
        <box size="0.2286 0.0254 0.001"/>
      </geometry>
    </collision>
  </link>
  <joint name="pod_bin_3m_pod_bin_3m_bottom" type="fixed">
    <parent link="pod_bin_3m"/>
    <child link="pod_bin_3m_bottom"/>
  </joint>
  <joint name="pod_bin_3m_pod_bin_3m_left" type="fixed">
    <origin rpy="1.5707963267948966 0 1.5707963267948966 " xyz="0 0 0"/>
    <parent link="pod_bin_3m"/>
    <child link="pod_bin_3m_left"/>
  </joint>
  <joint name="pod_bin_3m_pod_bin_3m_right" type="fixed">
    <origin rpy="1.5707963267948966 0 1.5707963267948966 " xyz="0.2286 0 0"/>
    <parent link="pod_bin_3m"/>
    <child link="pod_bin_3m_right"/>
  </joint>
  <joint name="pod_bin_3m_pod_bin_3m_top" type="fixed">
    <origin rpy="0 0 0" xyz="0 0 0.2794"/>
    <parent link="pod_bin_3m"/>
    <child link="pod_bin_3m_top"/>
  </joint>
  <joint name="pod_bin_3m_pod_bin_3m_back" type="fixed">
    <origin rpy="1.5707963267948966 0 0" xyz="0 0.15239999999999998 0"/>
    <parent link="pod_bin_3m"/>
    <child link="pod_bin_3m_back"/>
  </joint>
  <joint name="pod_bin_3m_pod_bin_3m_flap" type="fixed">
    <origin rpy="1.5707963267948966 0 0" xyz="0 0 0"/>
    <parent link="pod_bin_3m"/>
    <child link="pod_bin_3m_flap"/>
  </joint>
  <joint name="pod_shelf_m_pod_bin_3m_joint" type="fixed">
    <origin xyz="0.4572 0 0"/>
    <parent link="pod_shelf_m"/>
    <child link="pod_bin_3m"/>
  </joint>
  <link name="pod_bin_4m"/>
  <link name="pod_bin_4m_bottom">
    <inertial>
      <mass value="0.01"/>
      <inertia ixx="0.0002835" ixy="0.0" ixz="0.0" iyy="0.0002835" iyz="0.0" izz="0.000324"/>
    </inertial>
    <visual>
      <origin xyz="0.1143 0.07619999999999999 -0.0005"/>
      <geometry>
        <box size="0.2286 0.15239999999999998 0.001"/>
      </geometry>
      <material name="yellow_fabric"/>
    </visual>
    <collision>
      <origin xyz="0.1143 0.07619999999999999 -0.0005"/>
      <geometry>
        <box size="0.2286 0.15239999999999998 0.001"/>
      </geometry>
    </collision>
  </link>
  <link name="pod_bin_4m_left">
    <inertial>
      <mass value="0.01"/>
      <inertia ixx="0.0002835" ixy="0.0" ixz="0.0" iyy="0.0002835" iyz="0.0" izz="0.000324"/>
    </inertial>
    <visual>
      <origin xyz="0.07619999999999999 0.1397 -0.0005"/>
      <geometry>
        <box size="0.15239999999999998 0.2794 0.001"/>
      </geometry>
      <material name="yellow_fabric"/>
    </visual>
    <collision>
      <origin xyz="0.07619999999999999 0.1397 -0.0005"/>
      <geometry>
        <box size="0.15239999999999998 0.2794 0.001"/>
      </geometry>
    </collision>
  </link>
  <link name="pod_bin_4m_right">
    <inertial>
      <mass value="0.01"/>
      <inertia ixx="0.0002835" ixy="0.0" ixz="0.0" iyy="0.0002835" iyz="0.0" izz="0.000324"/>
    </inertial>
    <visual>
      <origin xyz="0.07619999999999999 0.1397 -0.0005"/>
      <geometry>
        <box size="0.15239999999999998 0.2794 0.001"/>
      </geometry>
      <material name="yellow_fabric"/>
    </visual>
    <collision>
      <origin xyz="0.07619999999999999 0.1397 -0.0005"/>
      <geometry>
        <box size="0.15239999999999998 0.2794 0.001"/>
      </geometry>
    </collision>
  </link>
  <link name="pod_bin_4m_top">
    <inertial>
      <mass value="0.01"/>
      <inertia ixx="0.0002835" ixy="0.0" ixz="0.0" iyy="0.0002835" iyz="0.0" izz="0.000324"/>
    </inertial>
    <visual>
      <origin xyz="0.1143 0.07619999999999999 -0.0005"/>
      <geometry>
        <box size="0.2286 0.15239999999999998 0.001"/>
      </geometry>
      <material name="yellow_fabric"/>
    </visual>
    <collision>
      <origin xyz="0.1143 0.07619999999999999 -0.0005"/>
      <geometry>
        <box size="0.2286 0.15239999999999998 0.001"/>
      </geometry>
    </collision>
  </link>
  <link name="pod_bin_4m_back">
    <inertial>
      <mass value="0.01"/>
      <inertia ixx="0.0002835" ixy="0.0" ixz="0.0" iyy="0.0002835" iyz="0.0" izz="0.000324"/>
    </inertial>
    <visual>
      <origin xyz="0.1143 0.1397 -0.0005"/>
      <geometry>
        <box size="0.2286 0.2794 0.001"/>
      </geometry>
      <material name="yellow_fabric"/>
    </visual>
    <collision>
      <origin xyz="0.1143 0.1397 -0.0005"/>
      <geometry>
        <box size="0.2286 0.2794 0.001"/>
      </geometry>
    </collision>
  </link>
  <link name="pod_bin_4m_flap">
    <inertial>
      <mass value="0.01"/>
      <inertia ixx="0.0002835" ixy="0.0" ixz="0.0" iyy="0.0002835" iyz="0.0" izz="0.000324"/>
    </inertial>
    <visual>
      <origin xyz="0.1143 0.0127 -0.0005"/>
      <geometry>
        <box size="0.2286 0.0254 0.001"/>
      </geometry>
      <material name="yellow_fabric"/>
    </visual>
    <collision>
      <origin xyz="0.1143 0.0127 -0.0005"/>
      <geometry>
        <box size="0.2286 0.0254 0.001"/>
      </geometry>
    </collision>
  </link>
  <joint name="pod_bin_4m_pod_bin_4m_bottom" type="fixed">
    <parent link="pod_bin_4m"/>
    <child link="pod_bin_4m_bottom"/>
  </joint>
  <joint name="pod_bin_4m_pod_bin_4m_left" type="fixed">
    <origin rpy="1.5707963267948966 0 1.5707963267948966 " xyz="0 0 0"/>
    <parent link="pod_bin_4m"/>
    <child link="pod_bin_4m_left"/>
  </joint>
  <joint name="pod_bin_4m_pod_bin_4m_right" type="fixed">
    <origin rpy="1.5707963267948966 0 1.5707963267948966 " xyz="0.2286 0 0"/>
    <parent link="pod_bin_4m"/>
    <child link="pod_bin_4m_right"/>
  </joint>
  <joint name="pod_bin_4m_pod_bin_4m_top" type="fixed">
    <origin rpy="0 0 0" xyz="0 0 0.2794"/>
    <parent link="pod_bin_4m"/>
    <child link="pod_bin_4m_top"/>
  </joint>
  <joint name="pod_bin_4m_pod_bin_4m_back" type="fixed">
    <origin rpy="1.5707963267948966 0 0" xyz="0 0.15239999999999998 0"/>
    <parent link="pod_bin_4m"/>
    <child link="pod_bin_4m_back"/>
  </joint>
  <joint name="pod_bin_4m_pod_bin_4m_flap" type="fixed">
    <origin rpy="1.5707963267948966 0 0" xyz="0 0 0"/>
    <parent link="pod_bin_4m"/>
    <child link="pod_bin_4m_flap"/>
  </joint>
  <joint name="pod_shelf_m_pod_bin_4m_joint" type="fixed">
    <origin xyz="0.6858 0 0"/>
    <parent link="pod_shelf_m"/>
    <child link="pod_bin_4m"/>
  </joint>
  <joint name="pod_fabric_base_pod_shelf_m_joint" type="fixed">
    <origin xyz="0 0 1.9494499999999997"/>
    <parent link="pod_fabric_base"/>
    <child link="pod_shelf_m"/>
  </joint>
  <!-- Front left corner -->
  <!-- Layers, frame at bottom left of each bin -->
</robot>
